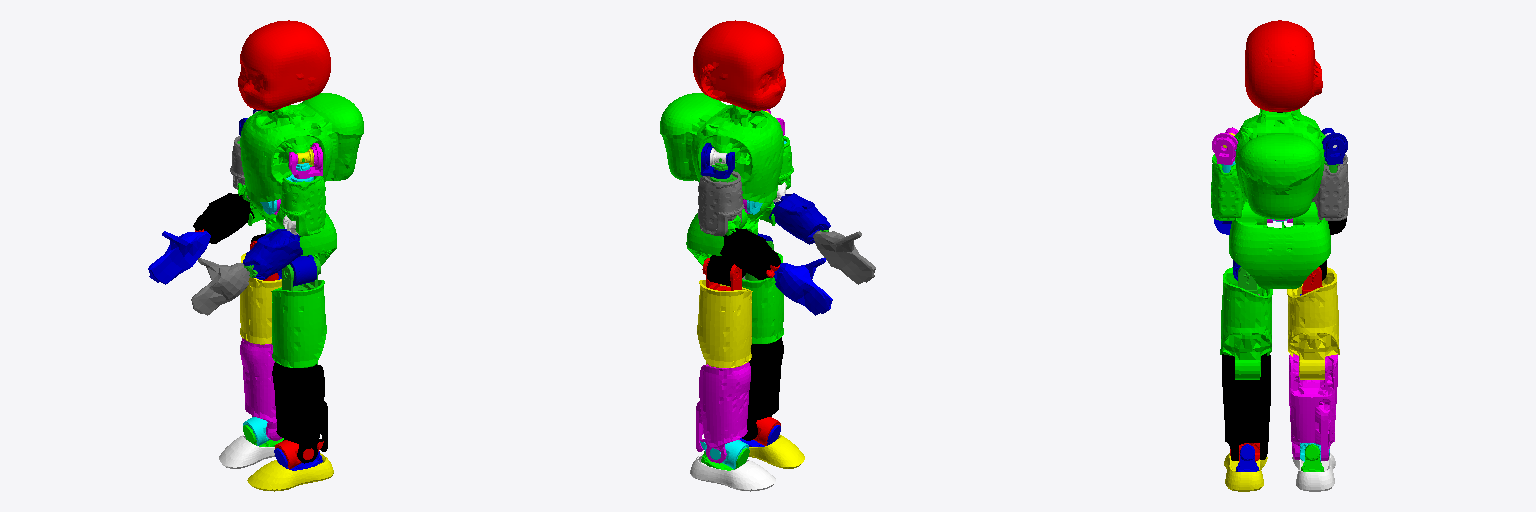
--- Facts derived from the render (not from the file) ---
Views: 3 orthographic renders of the robot side by side, from view 1: azimuth 30°, elevation 25°; view 2: azimuth 150°, elevation 25°; view 3: azimuth 270°, elevation 25°.
Robot: iCub — 139 links, 138 joints (32 revolute, 106 fixed); root link root_link; default pose: joints at zero except 2 at the middle of their limits (r_elbow = 1.06, l_elbow = 1.06).
Links seen in each view (by area): view 1: chest, head, l_lower_leg, l_upper_leg, r_lower_leg, l_upper_arm, r_upper_leg, l_hand, r_hand, l_forearm, r_forearm, l_foot (+5 smaller); view 2: chest, head, r_lower_leg, r_upper_leg, l_lower_leg, r_upper_arm, l_upper_leg, r_hand, r_forearm, l_hand, l_forearm, r_foot (+5 smaller); view 3: chest, root_link, head, r_upper_leg, l_upper_leg, l_lower_leg, r_lower_leg, r_upper_arm, l_upper_arm, r_foot, l_foot, l_shoulder_2 (+1 smaller).
Link boxes in pixels (left/top/right/bottom): chest: left=240, top=93, right=363, bottom=202; head: left=238, top=20, right=330, bottom=110; l_lower_leg: left=272, top=362, right=327, bottom=463; l_upper_leg: left=271, top=280, right=326, bottom=367; r_lower_leg: left=240, top=338, right=281, bottom=440; l_upper_arm: left=280, top=171, right=325, bottom=236; r_upper_leg: left=240, top=253, right=281, bottom=344; l_hand: left=191, top=258, right=252, bottom=315; r_hand: left=148, top=231, right=210, bottom=284; l_forearm: left=243, top=229, right=302, bottom=279; r_forearm: left=193, top=193, right=254, bottom=243; l_foot: left=247, top=453, right=333, bottom=491; chest: left=660, top=93, right=783, bottom=202; head: left=693, top=20, right=785, bottom=110; r_lower_leg: left=696, top=362, right=750, bottom=463; r_upper_leg: left=697, top=280, right=752, bottom=367; l_lower_leg: left=742, top=337, right=783, bottom=440; r_upper_arm: left=698, top=171, right=743, bottom=236; l_upper_leg: left=742, top=252, right=783, bottom=343; r_hand: left=774, top=258, right=832, bottom=315; r_forearm: left=720, top=228, right=780, bottom=279; l_hand: left=813, top=231, right=875, bottom=284; l_forearm: left=769, top=193, right=830, bottom=244; r_foot: left=690, top=453, right=775, bottom=491; chest: left=1234, top=109, right=1325, bottom=219; root_link: left=1229, top=202, right=1330, bottom=288; head: left=1245, top=20, right=1322, bottom=111; r_upper_leg: left=1287, top=267, right=1339, bottom=379; l_upper_leg: left=1220, top=267, right=1272, bottom=379; l_lower_leg: left=1222, top=353, right=1270, bottom=460; r_lower_leg: left=1289, top=354, right=1337, bottom=460; r_upper_arm: left=1312, top=154, right=1348, bottom=220; l_upper_arm: left=1211, top=154, right=1247, bottom=220; r_foot: left=1292, top=453, right=1335, bottom=491; l_foot: left=1224, top=453, right=1267, bottom=491; l_shoulder_2: left=1212, top=127, right=1238, bottom=164.
Size in the robot's own frame: 0.4797 by 0.2988 by 1.08 metres.
39 mesh visuals loaded from 39 distinct referenced files (39 binary STL).

The robot description file, URDF, robot "iCub":
<robot name="iCub">
  <link name="root_link">
    <inertial>
      <origin xyz="0.0256127 0.000177073 -0.0445339" rpy="1.57079632679 0 -1.57079632679"/>
      <mass value="5.12739"/>
      <inertia ixx="0.0145428" ixy="-3.37917e-05" ixz="-3.74897e-05" iyy="0.0206942" iyz="-0.00196027" izz="0.0252204"/>
    </inertial>
    <visual>
      <origin xyz="-0.0364 0 0.032" rpy="1.57079632679 0 -1.57079632679"/>
      <geometry>
        <mesh filename="meshes/simmechanics/2-5_plus/sim_sea_2-5_root_link_prt-binary.stl" scale="0.001 0.001 0.001"/>
      </geometry>
      <material name="green">
        <color rgba="0 1 0 1"/>
      </material>
    </visual>
    <collision>
      <origin xyz="-0.0364 0 0.032" rpy="1.57079632679 0 -1.57079632679"/>
      <geometry>
        <mesh filename="meshes/simmechanics/2-5_plus/sim_sea_2-5_root_link_prt-binary.stl" scale="0.001 0.001 0.001"/>
      </geometry>
    </collision>
  </link>
  <link name="root_link_imu_frame">
    <inertial>
      <origin rpy="0 0 0" xyz="0 0 0"/>
      <mass value="0"/>
      <inertia ixx="0.0" ixy="0.0" ixz="0.0" iyy="0.0" iyz="0.0" izz="0.0"/>
    </inertial>
  </link> <!-- in pybullet, the inertia need to be specified even for dummy links, otherwise it will put an identity inertia and a mass of 1 by default -->
  <joint name="root_link_imu_frame_fixed_joint" type="fixed">
    <origin xyz="0.085155 -0.011 -0.112309" rpy="-2.09439521059 0 -1.57079632679"/>
    <parent link="root_link"/>
    <child link="root_link_imu_frame"/>
    <dynamics damping="0.1"/>
  </joint>
  <link name="r_hip_1">
    <inertial>
      <origin xyz="-0.0005145 -0.0380753 -7.1e-05" rpy="1.57079632679 0 1.57079632679"/>
      <mass value="0.919978"/>
      <inertia ixx="0.000404268" ixy="-1.26852e-06" ixz="1.11055e-06" iyy="0.000574741" iyz="-7.69474e-07" izz="0.000580025"/>
    </inertial>
    <visual>
      <origin xyz="0.0428515000001 0.026 0.151913" rpy="1.57079632679 0 1.57079632679"/>
      <geometry>
        <mesh filename="meshes/simmechanics/2-5_plus/sim_sea_2-5_r_hip_1_prt-binary.stl" scale="0.001 0.001 0.001"/>
      </geometry>
      <material name="black">
        <color rgba="0 0 0 1"/>
      </material>
    </visual>
    <collision>
      <origin xyz="0.0428515000001 0.026 0.151913" rpy="1.57079632679 0 1.57079632679"/>
      <geometry>
        <mesh filename="meshes/simmechanics/2-5_plus/sim_sea_2-5_r_hip_1_prt-binary.stl" scale="0.001 0.001 0.001"/>
      </geometry>
    </collision>
  </link>
  <joint name="r_hip_pitch" type="revolute">
    <origin xyz="0.0064515 0.026 -0.119913" rpy="0 0 -3.14159265359"/>
    <axis xyz="-2.22044604925e-16 -1.0 0.0"/>
    <parent link="root_link"/>
    <child link="r_hip_1"/>
    <limit effort="55.5" lower="-0.785398163397" upper="2.33874119767" velocity="5.1"/>
    <dynamics damping="1.0" friction="0.0"/>
  </joint>
  <link name="r_hip_2">
    <inertial>
      <origin xyz="-0.0013754 3.49999999998e-06 -0.044282" rpy="1.57079632679 0 1.57079632679"/>
      <mass value="0.418361"/>
      <inertia ixx="0.000487866" ixy="-2.70231e-07" ixz="1.85338e-07" iyy="0.000286099" iyz="1.22793e-05" izz="0.000315174"/>
    </inertial>
    <visual>
      <origin xyz="0.0428514998094 0.0701 0.151913" rpy="1.57079632679 0 1.57079632679"/>
      <geometry>
        <mesh filename="meshes/simmechanics/2-5_plus/sim_sea_2-5_r_hip_2_prt-binary.stl" scale="0.001 0.001 0.001"/>
      </geometry>
      <material name="red">
        <color rgba="1 0 0 1"/>
      </material>
    </visual>
    <collision>
      <origin xyz="0.0428514998094 0.0701 0.151913" rpy="1.57079632679 0 1.57079632679"/>
      <geometry>
        <mesh filename="meshes/simmechanics/2-5_plus/sim_sea_2-5_r_hip_2_prt-binary.stl" scale="0.001 0.001 0.001"/>
      </geometry>
    </collision>
  </link>
  <joint name="r_hip_roll" type="revolute">
    <origin xyz="0 -0.0441 0" rpy="0 0 0"/>
    <axis xyz="-1.0 0.0 -2.22044604925e-16"/>
    <parent link="r_hip_1"/>
    <child link="r_hip_2"/>
    <limit effort="37.0" lower="-0.349065850399" upper="2.09439510239" velocity="7.64"/>
    <dynamics damping="1.0" friction="0.0"/>
  </joint>
  <link name="r_hip_3">
    <inertial>
      <origin xyz="-0.000123 -0.0002823 0.008718" rpy="-1.57079632679 0 -1.57079632679"/>
      <mass value="0.126212"/>
      <inertia ixx="0.01" ixy="2.67901e-07" ixz="-4.41463e-09" iyy="0.01" iyz="3.32338e-08" izz="0.01"/>
    </inertial>
    <visual>
      <origin xyz="0.0437089998094 -0.0701 -0.226213" rpy="-1.57079632679 0 -1.57079632679"/>
      <geometry>
        <mesh filename="meshes/simmechanics/2-5_plus/sim_sea_2-5_r_upper_thigh_prt-binary.stl" scale="0.001 0.001 0.001"/>
      </geometry>
      <material name="blue">
        <color rgba="0 0 1 1"/>
      </material>
    </visual>
    <collision>
      <origin xyz="0.0437089998094 -0.0701 -0.226213" rpy="-1.57079632679 0 -1.57079632679"/>
      <geometry>
        <mesh filename="meshes/simmechanics/2-5_plus/sim_sea_2-5_r_upper_thigh_prt-binary.stl" scale="0.001 0.001 0.001"/>
      </geometry>
    </collision>
  </link>
  <joint name="r_leg_ft_sensor" type="fixed">
    <origin xyz="-0.0008575 0 -0.0743" rpy="3.14159265359 0 0"/>
    <parent link="r_hip_2"/>
    <child link="r_hip_3"/>
    <dynamics damping="0.1"/>
  </joint>
  <link name="r_upper_leg">
    <inertial>
      <origin xyz="0.0033999 -2.91e-05 -0.078954" rpy="1.57079632679 0 1.57079632679"/>
      <mass value="1.8035"/>
      <inertia ixx="0.00647751422999" ixy="0.000129579429588" ixz="5.48205094739e-06" iyy="0.0014593786411" iyz="-0.000136613086875" izz="0.00646720823813"/>
    </inertial>
    <visual>
      <origin xyz="0.0437089998094 0.0701 0.240813" rpy="1.57079632679 0 1.57079632679"/>
      <geometry>
        <mesh filename="meshes/simmechanics/2-5_plus/sim_sea_2-5_r_thigh_prt-binary.stl" scale="0.001 0.001 0.001"/>
      </geometry>
      <material name="yellow">
        <color rgba="1 1 0 1"/>
      </material>
    </visual>
    <collision>
      <origin xyz="0.0437089998094 0.0701 0.240813" rpy="1.57079632679 0 1.57079632679"/>
      <geometry>
        <mesh filename="meshes/simmechanics/2-5_plus/sim_sea_2-5_r_thigh_prt-binary.stl" scale="0.001 0.001 0.001"/>
      </geometry>
    </collision>
  </link>
  <joint name="r_hip_yaw" type="revolute">
    <origin xyz="0 0 0.0144" rpy="-3.14159265359 0 0"/>
    <axis xyz="0.0 -2.22044604925e-16 -1.0"/>
    <parent link="r_hip_3"/>
    <child link="r_upper_leg"/>
    <limit effort="37.0" lower="-1.3962634016" upper="1.3962634016" velocity="7.64"/>
    <dynamics damping="1.0" friction="0.0"/>
  </joint>
  <link name="r_upper_leg_back_contact">
    <inertial>
      <origin rpy="0 0 0" xyz="0 0 0"/>
      <mass value="0"/>
      <inertia ixx="0.0" ixy="0.0" ixz="0.0" iyy="0.0" iyz="0.0" izz="0.0"/>
    </inertial>
  </link> <!-- in pybullet, the inertia need to be specified even for dummy links, otherwise it will put an identity inertia and a mass of 1 by default -->
  <joint name="r_upper_leg_back_contact_fixed_joint" type="fixed">
    <origin xyz="-0.0511999 0 0.0146" rpy="0 1.57079632679 0"/>
    <parent link="r_upper_leg"/>
    <child link="r_upper_leg_back_contact"/>
    <dynamics damping="0.1"/>
  </joint>
  <link name="r_upper_leg_dh_frame">
    <inertial>
      <origin rpy="0 0 0" xyz="0 0 0"/>
      <mass value="0"/>
      <inertia ixx="0.0" ixy="0.0" ixz="0.0" iyy="0.0" iyz="0.0" izz="0.0"/>
    </inertial>
  </link> <!-- in pybullet, the inertia need to be specified even for dummy links, otherwise it will put an identity inertia and a mass of 1 by default -->
  <joint name="r_upper_leg_dh_frame_fixed_joint" type="fixed">
    <origin xyz="0 0 -0.145825" rpy="1.57079632679 0 0"/>
    <parent link="r_upper_leg"/>
    <child link="r_upper_leg_dh_frame"/>
    <dynamics damping="0.1"/>
  </joint>
  <link name="r_lower_leg">
    <inertial>
      <origin xyz="0.0012363 -0.0035131 -0.088794" rpy="1.57079632679 0 1.57079632679"/>
      <mass value="1.472"/>
      <inertia ixx="0.00423993167478" ixy="0.000228814548854" ixz="-5.55646459453e-05" iyy="0.00152095043447" iyz="-0.000264132979243" izz="0.00457358584206"/>
    </inertial>
    <visual>
      <origin xyz="0.0437089998094 0.0701000001907 0.386638" rpy="1.57079632679 0 1.57079632679"/>
      <geometry>
        <mesh filename="meshes/simmechanics/2-5_plus/sim_sea_2-5_r_shank_prt-binary.stl" scale="0.001 0.001 0.001"/>
      </geometry>
      <material name="pink">
        <color rgba="1 0 1 1"/>
      </material>
    </visual>
    <collision>
      <origin xyz="0.0437089998094 0.0701000001907 0.386638" rpy="1.57079632679 0 1.57079632679"/>
      <geometry>
        <mesh filename="meshes/simmechanics/2-5_plus/sim_sea_2-5_r_shank_prt-binary.stl" scale="0.001 0.001 0.001"/>
      </geometry>
    </collision>
  </link>
  <joint name="r_knee" type="revolute">
    <origin xyz="0 0 -0.145825" rpy="0 0 0"/>
    <axis xyz="-2.22044604925e-16 -1.0 0.0"/>
    <parent link="r_upper_leg"/>
    <child link="r_lower_leg"/>
    <limit effort="37.0" lower="-2.16420827247" upper="0.0698131700798" velocity="7.64"/>
    <dynamics damping="1.0" friction="0.0"/>
  </joint>
  <link name="r_lower_leg_skin_0">
    <inertial>
      <origin rpy="0 0 0" xyz="0 0 0"/>
      <mass value="0"/>
      <inertia ixx="0.0" ixy="0.0" ixz="0.0" iyy="0.0" iyz="0.0" izz="0.0"/>
    </inertial>
  </link> <!-- in pybullet, the inertia need to be specified even for dummy links, otherwise it will put an identity inertia and a mass of 1 by default -->
  <joint name="r_lower_leg_skin_0_fixed_joint" type="fixed">
    <origin xyz="0.0544117 -0.031214 -0.002634" rpy="2.09173809157e-06 -1.41530676247 2.48648458622"/>
    <parent link="r_lower_leg"/>
    <child link="r_lower_leg_skin_0"/>
    <dynamics damping="0.1"/>
  </joint>
  <link name="r_lower_leg_skin_3">
    <inertial>
      <origin rpy="0 0 0" xyz="0 0 0"/>
      <mass value="0"/>
      <inertia ixx="0.0" ixy="0.0" ixz="0.0" iyy="0.0" iyz="0.0" izz="0.0"/>
    </inertial>
  </link> <!-- in pybullet, the inertia need to be specified even for dummy links, otherwise it will put an identity inertia and a mass of 1 by default -->
  <joint name="r_lower_leg_skin_3_fixed_joint" type="fixed">
    <origin xyz="0.05157878 0.0304205 -0.002843" rpy="0 -1.42951054083 -2.30391484186"/>
    <parent link="r_lower_leg"/>
    <child link="r_lower_leg_skin_3"/>
    <dynamics damping="0.1"/>
  </joint>
  <link name="r_lower_leg_skin_4">
    <inertial>
      <origin rpy="0 0 0" xyz="0 0 0"/>
      <mass value="0"/>
      <inertia ixx="0.0" ixy="0.0" ixz="0.0" iyy="0.0" iyz="0.0" izz="0.0"/>
    </inertial>
  </link> <!-- in pybullet, the inertia need to be specified even for dummy links, otherwise it will put an identity inertia and a mass of 1 by default -->
  <joint name="r_lower_leg_skin_4_fixed_joint" type="fixed">
    <origin xyz="0.0583103 0.0167836 0.007272" rpy="-2.98636361519e-07 -1.25636748876 -2.75892380087"/>
    <parent link="r_lower_leg"/>
    <child link="r_lower_leg_skin_4"/>
    <dynamics damping="0.1"/>
  </joint>
  <link name="r_lower_leg_skin_5">
    <inertial>
      <origin rpy="0 0 0" xyz="0 0 0"/>
      <mass value="0"/>
      <inertia ixx="0.0" ixy="0.0" ixz="0.0" iyy="0.0" iyz="0.0" izz="0.0"/>
    </inertial>
  </link> <!-- in pybullet, the inertia need to be specified even for dummy links, otherwise it will put an identity inertia and a mass of 1 by default -->
  <joint name="r_lower_leg_skin_5_fixed_joint" type="fixed">
    <origin xyz="0.0636503 0.0003094 -0.001972" rpy="0 -1.38652215068 -3.14147169807"/>
    <parent link="r_lower_leg"/>
    <child link="r_lower_leg_skin_5"/>
    <dynamics damping="0.1"/>
  </joint>
  <link name="r_lower_leg_skin_6">
    <inertial>
      <origin rpy="0 0 0" xyz="0 0 0"/>
      <mass value="0"/>
      <inertia ixx="0.0" ixy="0.0" ixz="0.0" iyy="0.0" iyz="0.0" izz="0.0"/>
    </inertial>
  </link> <!-- in pybullet, the inertia need to be specified even for dummy links, otherwise it will put an identity inertia and a mass of 1 by default -->
  <joint name="r_lower_leg_skin_6_fixed_joint" type="fixed">
    <origin xyz="0.05208552 0.0304434 -0.022149" rpy="-3.14158927953 -1.46785123411 0.837492889077"/>
    <parent link="r_lower_leg"/>
    <child link="r_lower_leg_skin_6"/>
    <dynamics damping="0.1"/>
  </joint>
  <link name="r_lower_leg_skin_9">
    <inertial>
      <origin rpy="0 0 0" xyz="0 0 0"/>
      <mass value="0"/>
      <inertia ixx="0.0" ixy="0.0" ixz="0.0" iyy="0.0" iyz="0.0" izz="0.0"/>
    </inertial>
  </link> <!-- in pybullet, the inertia need to be specified even for dummy links, otherwise it will put an identity inertia and a mass of 1 by default -->
  <joint name="r_lower_leg_skin_9_fixed_joint" type="fixed">
    <origin xyz="0.0598214 0.0167973 -0.030962" rpy="-3.14159202356 -1.34224755325 0.379294477718"/>
    <parent link="r_lower_leg"/>
    <child link="r_lower_leg_skin_9"/>
    <dynamics damping="0.1"/>
  </joint>
  <link name="r_lower_leg_skin_10">
    <inertial>
      <origin rpy="0 0 0" xyz="0 0 0"/>
      <mass value="0"/>
      <inertia ixx="0.0" ixy="0.0" ixz="0.0" iyy="0.0" iyz="0.0" izz="0.0"/>
    </inertial>
  </link> <!-- in pybullet, the inertia need to be specified even for dummy links, otherwise it will put an identity inertia and a mass of 1 by default -->
  <joint name="r_lower_leg_skin_10_fixed_joint" type="fixed">
    <origin xyz="0.0644607 0.0003424 -0.021205" rpy="3.14159265355 -1.47095803541 0.000430021675261"/>
    <parent link="r_lower_leg"/>
    <child link="r_lower_leg_skin_10"/>
    <dynamics damping="0.1"/>
  </joint>
  <link name="r_lower_leg_skin_11">
    <inertial>
      <origin rpy="0 0 0" xyz="0 0 0"/>
      <mass value="0"/>
      <inertia ixx="0.0" ixy="0.0" ixz="0.0" iyy="0.0" iyz="0.0" izz="0.0"/>
    </inertial>
  </link> <!-- in pybullet, the inertia need to be specified even for dummy links, otherwise it will put an identity inertia and a mass of 1 by default -->
  <joint name="r_lower_leg_skin_11_fixed_joint" type="fixed">
    <origin xyz="0.0607108 -0.0160916 -0.030885" rpy="-3.14159218252 -1.3281180406 -0.27213836788"/>
    <parent link="r_lower_leg"/>
    <child link="r_lower_leg_skin_11"/>
    <dynamics damping="0.1"/>
  </joint>
  <link name="r_lower_leg_skin_14">
    <inertial>
      <origin rpy="0 0 0" xyz="0 0 0"/>
      <mass value="0"/>
      <inertia ixx="0.0" ixy="0.0" ixz="0.0" iyy="0.0" iyz="0.0" izz="0.0"/>
    </inertial>
  </link> <!-- in pybullet, the inertia need to be specified even for dummy links, otherwise it will put an identity inertia and a mass of 1 by default -->
  <joint name="r_lower_leg_skin_14_fixed_joint" type="fixed">
    <origin xyz="0.0550477 -0.031176 -0.0219" rpy="-3.14159181885 -1.46502735635 -0.654033407167"/>
    <parent link="r_lower_leg"/>
    <child link="r_lower_leg_skin_14"/>
    <dynamics damping="0.1"/>
  </joint>
  <link name="r_lower_leg_skin_15">
    <inertial>
      <origin rpy="0 0 0" xyz="0 0 0"/>
      <mass value="0"/>
      <inertia ixx="0.0" ixy="0.0" ixz="0.0" iyy="0.0" iyz="0.0" izz="0.0"/>
    </inertial>
  </link> <!-- in pybullet, the inertia need to be specified even for dummy links, otherwise it will put an identity inertia and a mass of 1 by default -->
  <joint name="r_lower_leg_skin_15_fixed_joint" type="fixed">
    <origin xyz="0.0591708 -0.0161788 0.007243" rpy="4.27484256729e-07 -1.25203633076 2.86798859471"/>
    <parent link="r_lower_leg"/>
    <child link="r_lower_leg_skin_15"/>
    <dynamics damping="0.1"/>
  </joint>
  <link name="r_lower_leg_skin_16">
    <inertial>
      <origin rpy="0 0 0" xyz="0 0 0"/>
      <mass value="0"/>
      <inertia ixx="0.0" ixy="0.0" ixz="0.0" iyy="0.0" iyz="0.0" izz="0.0"/>
    </inertial>
  </link> <!-- in pybullet, the inertia need to be specified even for dummy links, otherwise it will put an identity inertia and a mass of 1 by default -->
  <joint name="r_lower_leg_skin_16_fixed_joint" type="fixed">
    <origin xyz="0.0272875 -0.050287 -0.004549" rpy="1.33075915123e-05 -1.53260853515 1.96280242835"/>
    <parent link="r_lower_leg"/>
    <child link="r_lower_leg_skin_16"/>
    <dynamics damping="0.1"/>
  </joint>
  <link name="r_lower_leg_skin_17">
    <inertial>
      <origin rpy="0 0 0" xyz="0 0 0"/>
      <mass value="0"/>
      <inertia ixx="0.0" ixy="0.0" ixz="0.0" iyy="0.0" iyz="0.0" izz="0.0"/>
    </inertial>
  </link> <!-- in pybullet, the inertia need to be specified even for dummy links, otherwise it will put an identity inertia and a mass of 1 by default -->
  <joint name="r_lower_leg_skin_17_fixed_joint" type="fixed">
    <origin xyz="0.027875 -0.050312 -0.023882" rpy="-3.1415645262 -1.56366240237 -1.18022508756"/>
    <parent link="r_lower_leg"/>
    <child link="r_lower_leg_skin_17"/>
    <dynamics damping="0.1"/>
  </joint>
  <link name="r_lower_leg_skin_19">
    <inertial>
      <origin rpy="0 0 0" xyz="0 0 0"/>
      <mass value="0"/>
      <inertia ixx="0.0" ixy="0.0" ixz="0.0" iyy="0.0" iyz="0.0" izz="0.0"/>
    </inertial>
  </link> <!-- in pybullet, the inertia need to be specified even for dummy links, otherwise it will put an identity inertia and a mass of 1 by default -->
  <joint name="r_lower_leg_skin_19_fixed_joint" type="fixed">
    <origin xyz="0.0357534 0.0410628 0.006065" rpy="-8.90877717426e-07 -1.43498696978 -2.15863618017"/>
    <parent link="r_lower_leg"/>
    <child link="r_lower_leg_skin_19"/>
    <dynamics damping="0.1"/>
  </joint>
  <link name="r_lower_leg_skin_20">
    <inertial>
      <origin rpy="0 0 0" xyz="0 0 0"/>
      <mass value="0"/>
      <inertia ixx="0.0" ixy="0.0" ixz="0.0" iyy="0.0" iyz="0.0" izz="0.0"/>
    </inertial>
  </link> <!-- in pybullet, the inertia need to be specified even for dummy links, otherwise it will put an identity inertia and a mass of 1 by default -->
  <joint name="r_lower_leg_skin_20_fixed_joint" type="fixed">
    <origin xyz="0.0234419 0.0479908 -0.004952" rpy="-3.20556549428e-06 -1.50015513031 -1.86755092413"/>
    <parent link="r_lower_leg"/>
    <child link="r_lower_leg_skin_20"/>
    <dynamics damping="0.1"/>
  </joint>
  <link name="r_lower_leg_skin_21">
    <inertial>
      <origin rpy="0 0 0" xyz="0 0 0"/>
      <mass value="0"/>
      <inertia ixx="0.0" ixy="0.0" ixz="0.0" iyy="0.0" iyz="0.0" izz="0.0"/>
    </inertial>
  </link> <!-- in pybullet, the inertia need to be specified even for dummy links, otherwise it will put an identity inertia and a mass of 1 by default -->
  <joint name="r_lower_leg_skin_21_fixed_joint" type="fixed">
    <origin xyz="0.0242704 0.0485378 -0.024277" rpy="2.29671149558e-05 -1.55545513881 -1.87411972316"/>
    <parent link="r_lower_leg"/>
    <child link="r_lower_leg_skin_21"/>
    <dynamics damping="0.1"/>
  </joint>
  <link name="r_lower_leg_skin_28">
    <inertial>
      <origin rpy="0 0 0" xyz="0 0 0"/>
      <mass value="0"/>
      <inertia ixx="0.0" ixy="0.0" ixz="0.0" iyy="0.0" iyz="0.0" izz="0.0"/>
    </inertial>
  </link> <!-- in pybullet, the inertia need to be specified even for dummy links, otherwise it will put an identity inertia and a mass of 1 by default -->
  <joint name="r_lower_leg_skin_28_fixed_joint" type="fixed">
    <origin xyz="0.04087215 -0.04244 -0.032756" rpy="3.14158088865 -1.52252462169 -0.929681029763"/>
    <parent link="r_lower_leg"/>
    <child link="r_lower_leg_skin_28"/>
    <dynamics damping="0.1"/>
  </joint>
  <link name="r_lower_leg_skin_29">
    <inertial>
      <origin rpy="0 0 0" xyz="0 0 0"/>
      <mass value="0"/>
      <inertia ixx="0.0" ixy="0.0" ixz="0.0" iyy="0.0" iyz="0.0" izz="0.0"/>
    </inertial>
  </link> <!-- in pybullet, the inertia need to be specified even for dummy links, otherwise it will put an identity inertia and a mass of 1 by default -->
  <joint name="r_lower_leg_skin_29_fixed_joint" type="fixed">
    <origin xyz="0.03846637 -0.043516 -0.05242" rpy="3.14158017044 -1.53429841563 -0.915436346631"/>
    <parent link="r_lower_leg"/>
    <child link="r_lower_leg_skin_29"/>
    <dynamics damping="0.1"/>
  </joint>
  <link name="r_lower_leg_skin_31">
    <inertial>
      <origin rpy="0 0 0" xyz="0 0 0"/>
      <mass value="0"/>
      <inertia ixx="0.0" ixy="0.0" ixz="0.0" iyy="0.0" iyz="0.0" izz="0.0"/>
    </inertial>
  </link> <!-- in pybullet, the inertia need to be specified even for dummy links, otherwise it will put an identity inertia and a mass of 1 by default -->
  <joint name="r_lower_leg_skin_31_fixed_joint" type="fixed">
    <origin xyz="0.03914638 -0.042271 0.006327" rpy="-6.58381747139e-07 -1.4186494462 2.20853032986"/>
    <parent link="r_lower_leg"/>
    <child link="r_lower_leg_skin_31"/>
    <dynamics damping="0.1"/>
  </joint>
  <link name="r_lower_leg_skin_32">
    <inertial>
      <origin rpy="0 0 0" xyz="0 0 0"/>
      <mass value="0"/>
      <inertia ixx="0.0" ixy="0.0" ixz="0.0" iyy="0.0" iyz="0.0" izz="0.0"/>
    </inertial>
  </link> <!-- in pybullet, the inertia need to be specified even for dummy links, otherwise it will put an identity inertia and a mass of 1 by default -->
  <joint name="r_lower_leg_skin_32_fixed_joint" type="fixed">
    <origin xyz="0.04598301 0.0325847 -0.080733" rpy="-3.14159014988 -1.52238289798 0.645940380887"/>
    <parent link="r_lower_leg"/>
    <child link="r_lower_leg_skin_32"/>
    <dynamics damping="0.1"/>
  </joint>
  <link name="r_lower_leg_skin_35">
    <inertial>
      <origin rpy="0 0 0" xyz="0 0 0"/>
      <mass value="0"/>
      <inertia ixx="0.0" ixy="0.0" ixz="0.0" iyy="0.0" iyz="0.0" izz="0.0"/>
    </inertial>
  </link> <!-- in pybullet, the inertia need to be specified even for dummy links, otherwise it will put an identity inertia and a mass of 1 by default -->
  <joint name="r_lower_leg_skin_35_fixed_joint" type="fixed">
    <origin xyz="0.04774866 -0.031232 -0.080113" rpy="-3.14158668275 -1.51758467332 -0.541532486468"/>
    <parent link="r_lower_leg"/>
    <child link="r_lower_leg_skin_35"/>
    <dynamics damping="0.1"/>
  </joint>
  <link name="r_lower_leg_skin_36">
    <inertial>
      <origin rpy="0 0 0" xyz="0 0 0"/>
      <mass value="0"/>
      <inertia ixx="0.0" ixy="0.0" ixz="0.0" iyy="0.0" iyz="0.0" izz="0.0"/>
    </inertial>
  </link> <!-- in pybullet, the inertia need to be specified even for dummy links, otherwise it will put an identity inertia and a mass of 1 by default -->
  <joint name="r_lower_leg_skin_36_fixed_joint" type="fixed">
    <origin xyz="0.05322409 -0.0156018 -0.088362" rpy="-3.14159034144 -1.51587265281 -0.20740733566"/>
    <parent link="r_lower_leg"/>
    <child link="r_lower_leg_skin_36"/>
    <dynamics damping="0.1"/>
  </joint>
  <link name="r_lower_leg_skin_37">
    <inertial>
      <origin rpy="0 0 0" xyz="0 0 0"/>
      <mass value="0"/>
      <inertia ixx="0.0" ixy="0.0" ixz="0.0" iyy="0.0" iyz="0.0" izz="0.0"/>
    </inertial>
  </link> <!-- in pybullet, the inertia need to be specified even for dummy links, otherwise it will put an identity inertia and a mass of 1 by default -->
  <joint name="r_lower_leg_skin_37_fixed_joint" type="fixed">
    <origin xyz="0.0552572 0.0009644 -0.078318" rpy="-3.14158180452 -1.52318336898 0.00752450583063"/>
    <parent link="r_lower_leg"/>
    <child link="r_lower_leg_skin_37"/>
    <dynamics damping="0.1"/>
  </joint>
  <link name="r_lower_leg_skin_38">
    <inertial>
      <origin rpy="0 0 0" xyz="0 0 0"/>
      <mass value="0"/>
      <inertia ixx="0.0" ixy="0.0" ixz="0.0" iyy="0.0" iyz="0.0" izz="0.0"/>
    </inertial>
  </link> <!-- in pybullet, the inertia need to be specified even for dummy links, otherwise it will put an identity inertia and a mass of 1 by default -->
  <joint name="r_lower_leg_skin_38_fixed_joint" type="fixed">
    <origin xyz="0.04880467 -0.031263 -0.060757" rpy="3.14158665199 -1.5157299554 -0.54215359959"/>
    <parent link="r_lower_leg"/>
    <child link="r_lower_leg_skin_38"/>
    <dynamics damping="0.1"/>
  </joint>
  <link name="r_lower_leg_skin_41">
    <inertial>
      <origin rpy="0 0 0" xyz="0 0 0"/>
      <mass value="0"/>
      <inertia ixx="0.0" ixy="0.0" ixz="0.0" iyy="0.0" iyz="0.0" izz="0.0"/>
    </inertial>
  </link> <!-- in pybullet, the inertia need to be specified even for dummy links, otherwise it will put an identity inertia and a mass of 1 by default -->
  <joint name="r_lower_leg_skin_41_fixed_joint" type="fixed">
    <origin xyz="0.0566009 -0.0159129 -0.049854" rpy="-3.14159198825 -1.40681343597 -0.248233089413"/>
    <parent link="r_lower_leg"/>
    <child link="r_lower_leg_skin_41"/>
    <dynamics damping="0.1"/>
  </joint>
  <link name="r_lower_leg_skin_42">
    <inertial>
      <origin rpy="0 0 0" xyz="0 0 0"/>
      <mass value="0"/>
      <inertia ixx="0.0" ixy="0.0" ixz="0.0" iyy="0.0" iyz="0.0" izz="0.0"/>
    </inertial>
  </link> <!-- in pybullet, the inertia need to be specified even for dummy links, otherwise it will put an identity inertia and a mass of 1 by default -->
  <joint name="r_lower_leg_skin_42_fixed_joint" type="fixed">
    <origin xyz="0.0570106 0.0007962 -0.05908" rpy="3.14158970239 -1.43524750416 0.00687943651504"/>
    <parent link="r_lower_leg"/>
    <child link="r_lower_leg_skin_42"/>
    <dynamics damping="0.1"/>
  </joint>
  <link name="r_lower_leg_skin_43">
    <inertial>
      <origin rpy="0 0 0" xyz="0 0 0"/>
      <mass value="0"/>
      <inertia ixx="0.0" ixy="0.0" ixz="0.0" iyy="0.0" iyz="0.0" izz="0.0"/>
    </inertial>
  </link> <!-- in pybullet, the inertia need to be specified even for dummy links, otherwise it will put an identity inertia and a mass of 1 by default -->
  <joint name="r_lower_leg_skin_43_fixed_joint" type="fixed">
    <origin xyz="0.04712542 0.0323653 -0.061362" rpy="-3.14159136621 -1.53843038237 0.624217523667"/>
    <parent link="r_lower_leg"/>
    <child link="r_lower_leg_skin_43"/>
    <dynamics damping="0.1"/>
  </joint>
  <link name="r_lower_leg_skin_46">
    <inertial>
      <origin rpy="0 0 0" xyz="0 0 0"/>
      <mass value="0"/>
      <inertia ixx="0.0" ixy="0.0" ixz="0.0" iyy="0.0" iyz="0.0" izz="0.0"/>
    </inertial>
  </link> <!-- in pybullet, the inertia need to be specified even for dummy links, otherwise it will put an identity inertia and a mass of 1 by default -->
  <joint name="r_lower_leg_skin_46_fixed_joint" type="fixed">
    <origin xyz="0.0558156 0.0172164 -0.05018" rpy="-3.14158987809 -1.42759881603 0.325607710876"/>
    <parent link="r_lower_leg"/>
    <child link="r_lower_leg_skin_46"/>
    <dynamics damping="0.1"/>
  </joint>
  <link name="r_lower_leg_skin_47">
    <inertial>
      <origin rpy="0 0 0" xyz="0 0 0"/>
      <mass value="0"/>
      <inertia ixx="0.0" ixy="0.0" ixz="0.0" iyy="0.0" iyz="0.0" izz="0.0"/>
    </inertial>
  </link> <!-- in pybullet, the inertia need to be specified even for dummy links, otherwise it will put an identity inertia and a mass of 1 by default -->
  <joint name="r_lower_leg_skin_47_fixed_joint" type="fixed">
    <origin xyz="0.05264163 0.0176389 -0.08886" rpy="3.14158963519 -1.51690559406 0.262640425058"/>
    <parent link="r_lower_leg"/>
    <child link="r_lower_leg_skin_47"/>
    <dynamics damping="0.1"/>
  </joint>
  <link name="r_lower_leg_skin_49">
    <inertial>
      <origin rpy="0 0 0" xyz="0 0 0"/>
      <mass value="0"/>
      <inertia ixx="0.0" ixy="0.0" ixz="0.0" iyy="0.0" iyz="0.0" izz="0.0"/>
    </inertial>
  </link> <!-- in pybullet, the inertia need to be specified even for dummy links, otherwise it will put an identity inertia and a mass of 1 by default -->
  <joint name="r_lower_leg_skin_49_fixed_joint" type="fixed">
    <origin xyz="0.04113137 0.0324385 -0.138859" rpy="-3.14158934751 -1.48996135695 0.729763592113"/>
    <parent link="r_lower_leg"/>
    <child link="r_lower_leg_skin_49"/>
    <dynamics damping="0.1"/>
  </joint>
  <link name="r_lower_leg_skin_50">
    <inertial>
      <origin rpy="0 0 0" xyz="0 0 0"/>
      <mass value="0"/>
      <inertia ixx="0.0" ixy="0.0" ixz="0.0" iyy="0.0" iyz="0.0" izz="0.0"/>
    </inertial>
  </link> <!-- in pybullet, the inertia need to be specified even for dummy links, otherwise it will put an identity inertia and a mass of 1 by default -->
  <joint name="r_lower_leg_skin_50_fixed_joint" type="fixed">
    <origin xyz="0.043016947 0.0325273 -0.119469" rpy="3.14159069596 -1.49900732636 0.695784020081"/>
    <parent link="r_lower_leg"/>
    <child link="r_lower_leg_skin_50"/>
    <dynamics damping="0.1"/>
  </joint>
  <link name="r_lower_leg_skin_51">
    <inertial>
      <origin rpy="0 0 0" xyz="0 0 0"/>
      <mass value="0"/>
      <inertia ixx="0.0" ixy="0.0" ixz="0.0" iyy="0.0" iyz="0.0" izz="0.0"/>
    </inertial>
  </link> <!-- in pybullet, the inertia need to be specified even for dummy links, otherwise it will put an identity inertia and a mass of 1 by default -->
  <joint name="r_lower_leg_skin_51_fixed_joint" type="fixed">
    <origin xyz="0.05141583 0.017759 -0.108206" rpy="-3.14158890179 -1.50628475717 0.272079935713"/>
    <parent link="r_lower_leg"/>
    <child link="r_lower_leg_skin_51"/>
    <dynamics damping="0.1"/>
  </joint>
  <link name="r_lower_leg_skin_52">
    <inertial>
      <origin rpy="0 0 0" xyz="0 0 0"/>
      <mass value="0"/>
      <inertia ixx="0.0" ixy="0.0" ixz="0.0" iyy="0.0" iyz="0.0" izz="0.0"/>
    </inertial>
  </link> <!-- in pybullet, the inertia need to be specified even for dummy links, otherwise it will put an identity inertia and a mass of 1 by default -->
  <joint name="r_lower_leg_skin_52_fixed_joint" type="fixed">
    <origin xyz="0.05299832 0.0012664 -0.116895" rpy="-3.14159164042 -1.50318674421 0.0108717260994"/>
    <parent link="r_lower_leg"/>
    <child link="r_lower_leg_skin_52"/>
    <dynamics damping="0.1"/>
  </joint>
  <link name="r_lower_leg_skin_53">
    <inertial>
      <origin rpy="0 0 0" xyz="0 0 0"/>
      <mass value="0"/>
      <inertia ixx="0.0" ixy="0.0" ixz="0.0" iyy="0.0" iyz="0.0" izz="0.0"/>
    </inertial>
  </link> <!-- in pybullet, the inertia need to be specified even for dummy links, otherwise it will put an identity inertia and a mass of 1 by default -->
  <joint name="r_lower_leg_skin_53_fixed_joint" type="fixed">
    <origin xyz="0.05207312 -0.0154339 -0.107654" rpy="3.14159063987 -1.50595307447 -0.211407322892"/>
    <parent link="r_lower_leg"/>
    <child link="r_lower_leg_skin_53"/>
    <dynamics damping="0.1"/>
  </joint>
  <link name="r_lower_leg_skin_54">
    <inertial>
      <origin rpy="0 0 0" xyz="0 0 0"/>
      <mass value="0"/>
      <inertia ixx="0.0" ixy="0.0" ixz="0.0" iyy="0.0" iyz="0.0" izz="0.0"/>
    </inertial>
  </link> <!-- in pybullet, the inertia need to be specified even for dummy links, otherwise it will put an identity inertia and a mass of 1 by default -->
  <joint name="r_lower_leg_skin_54_fixed_joint" type="fixed">
    <origin xyz="0.04512708 -0.030749 -0.118787" rpy="3.14158825193 -1.49745145571 -0.575115374473"/>
    <parent link="r_lower_leg"/>
    <child link="r_lower_leg_skin_54"/>
    <dynamics damping="0.1"/>
  </joint>
  <link name="r_lower_leg_skin_55">
    <inertial>
      <origin rpy="0 0 0" xyz="0 0 0"/>
      <mass value="0"/>
      <inertia ixx="0.0" ixy="0.0" ixz="0.0" iyy="0.0" iyz="0.0" izz="0.0"/>
    </inertial>
  </link> <!-- in pybullet, the inertia need to be specified even for dummy links, otherwise it will put an identity inertia and a mass of 1 by default -->
  <joint name="r_lower_leg_skin_55_fixed_joint" type="fixed">
    <origin xyz="0.043502663 -0.030489 -0.138143" rpy="3.14158906486 -1.48995787038 -0.597219943789"/>
    <parent link="r_lower_leg"/>
    <child link="r_lower_leg_skin_55"/>
    <dynamics damping="0.1"/>
  </joint>
  <link name="r_lower_leg_skin_56">
    <inertial>
      <origin rpy="0 0 0" xyz="0 0 0"/>
      <mass value="0"/>
      <inertia ixx="0.0" ixy="0.0" ixz="0.0" iyy="0.0" iyz="0.0" izz="0.0"/>
    </inertial>
  </link> <!-- in pybullet, the inertia need to be specified even for dummy links, otherwise it will put an identity inertia and a mass of 1 by default -->
  <joint name="r_lower_leg_skin_56_fixed_joint" type="fixed">
    <origin xyz="0.04926839 -0.015121 -0.146218" rpy="-3.14158920404 -1.49124819828 -0.2234844764"/>
    <parent link="r_lower_leg"/>
    <child link="r_lower_leg_skin_56"/>
    <dynamics damping="0.1"/>
  </joint>
  <link name="r_lower_leg_skin_60">
    <inertial>
      <origin rpy="0 0 0" xyz="0 0 0"/>
      <mass value="0"/>
      <inertia ixx="0.0" ixy="0.0" ixz="0.0" iyy="0.0" iyz="0.0" izz="0.0"/>
    </inertial>
  </link> <!-- in pybullet, the inertia need to be specified even for dummy links, otherwise it will put an identity inertia and a mass of 1 by default -->
  <joint name="r_lower_leg_skin_60_fixed_joint" type="fixed">
    <origin xyz="0.04836967 0.018056 -0.146938" rpy="-3.14159173337 -1.48985968527 0.302951871954"/>
    <parent link="r_lower_leg"/>
    <child link="r_lower_leg_skin_60"/>
    <dynamics damping="0.1"/>
  </joint>
  <link name="r_lower_leg_skin_61">
    <inertial>
      <origin rpy="0 0 0" xyz="0 0 0"/>
      <mass value="0"/>
      <inertia ixx="0.0" ixy="0.0" ixz="0.0" iyy="0.0" iyz="0.0" izz="0.0"/>
    </inertial>
  </link> <!-- in pybullet, the inertia need to be specified even for dummy links, otherwise it will put an identity inertia and a mass of 1 by default -->
  <joint name="r_lower_leg_skin_61_fixed_joint" type="fixed">
    <origin xyz="0.05161952 0.0014266 -0.136169" rpy="-3.14159100925 -1.49602097086 0.0132014275205"/>
    <parent link="r_lower_leg"/>
    <child link="r_lower_leg_skin_61"/>
    <dynamics damping="0.1"/>
  </joint>
  <link name="r_ankle_1">
    <inertial>
      <origin xyz="0.015143405474 -0.0008685 4.28590827205e-05" rpy="1.30899714732 0 1.57079632679"/>
      <mass value="0.6803"/>
      <inertia ixx="0.000404620739232" ixy="8.52348884459e-06" ixz="-2.89135903191e-05" iyy="0.000437939678154" iyz="3.73303951794e-05" izz="0.000318928194184"/>
    </inertial>
    <visual>
      <origin xyz="-0.109742724245 0.0701000001907 0.57844450225" rpy="1.30899714732 0 1.57079632679"/>
      <geometry>
        <mesh filename="meshes/simmechanics/2-5_plus/sim_sea_2-5_r_ankle_prt-binary.stl" scale="0.001 0.001 0.001"/>
      </geometry>
      <material name="cyan">
        <color rgba="0 1 1 1"/>
      </material>
    </visual>
    <collision>
      <origin xyz="-0.109742724245 0.0701000001907 0.57844450225" rpy="1.30899714732 0 1.57079632679"/>
      <geometry>
        <mesh filename="meshes/simmechanics/2-5_plus/sim_sea_2-5_r_ankle_prt-binary.stl" scale="0.001 0.001 0.001"/>
      </geometry>
    </collision>
  </link>
  <joint name="r_ankle_pitch" type="revolute">
    <origin xyz="0 0 -0.2005" rpy="0 0.26179917948 0"/>
    <axis xyz="-6.66133814775e-16 1.0 4.4408920985e-16"/>
    <parent link="r_lower_leg"/>
    <child link="r_ankle_1"/>
    <limit effort="37.0" lower="-0.872664625997" upper="0.349065850399" velocity="7.64"/>
    <dynamics damping="1.0" friction="0.0"/>
  </joint>
  <link name="r_ankle_2">
    <inertial>
      <origin xyz="0.00114521577532 -8.29999999999e-06 -0.0385118541074" rpy="1.30899714732 0 1.57079632679"/>
      <mass value="0.265337"/>
      <inertia ixx="0.01" ixy="-7.94989e-08" ixz="8.24551e-09" iyy="0.01" iyz="2.0701e-05" izz="0.01"/>
    </inertial>
    <visual>
      <origin xyz="-0.109742724423 0.0701000001907 0.578444502203" rpy="1.30899714732 0 1.57079632679"/>
      <geometry>
        <mesh filename="meshes/simmechanics/2-5_plus/sim_sea_2-5_r_foot_prt-binary.stl" scale="0.001 0.001 0.001"/>
      </geometry>
      <material name="green"/>
    </visual>
    <collision>
      <origin xyz="-0.109742724423 0.0701000001907 0.578444502203" rpy="1.30899714732 0 1.57079632679"/>
      <geometry>
        <mesh filename="meshes/simmechanics/2-5_plus/sim_sea_2-5_r_foot_prt-binary.stl" scale="0.001 0.001 0.001"/>
      </geometry>
    </collision>
  </link>
  <joint name="r_ankle_roll" type="revolute">
    <origin xyz="0 0 0" rpy="0 0 0"/>
    <axis xyz="-1.00000015612 -6.0136540192e-16 1.19793949732e-07"/>
    <parent link="r_ankle_1"/>
    <child link="r_ankle_2"/>
    <limit effort="37.0" lower="-0.436332312999" upper="0.436332312999" velocity="7.64"/>
    <dynamics damping="1.0" friction="0.0"/>
  </joint>
  <link name="r_foot">
    <inertial>
      <origin xyz="0.0397797426436 0.00455369999491 -0.00631181659" rpy="-1.83259550782 0 -1.57079632679"/>
      <mass value="0.357881"/>
      <inertia ixx="0.00109611" ixy="-2.9193e-07" ixz="-3.70109e-05" iyy="0.00125706" iyz="5.10952e-06" izz="0.000215359"/>
    </inertial>
    <visual>
      <origin xyz="-0.106242797474 -0.0701000001884 -0.638744845568" rpy="-1.83259550782 0 -1.57079632679"/>
      <geometry>
        <mesh filename="meshes/simmechanics/2-5_plus/sim_sea_2-5_r_sole_prt-binary.stl" scale="0.001 0.001 0.001"/>
      </geometry>
      <material name="white">
        <color rgba="1 1 1 1"/>
      </material>
    </visual>
    <collision>
      <origin xyz="0.0417858 0.0049978 0.000725075" rpy="3.14159264324 0.261799192098 0.0"/>
      <geometry>
        <box size="0.16 0.072 0.001"/>
      </geometry>
    </collision>
  </link>
  <joint name="r_foot_ft_sensor" type="fixed">
    <origin xyz="-0.00349992806597 0 -0.0605003432802" rpy="3.14159265242 0 0"/>
    <parent link="r_ankle_2"/>
    <child link="r_foot"/>
    <dynamics damping="0.1"/>
  </joint>
  <link name="r_sole">
    <inertial>
      <origin rpy="0 0 0" xyz="0 0 0"/>
      <mass value="0"/>
      <inertia ixx="0.0" ixy="0.0" ixz="0.0" iyy="0.0" iyz="0.0" izz="0.0"/>
    </inertial>
  </link> <!-- in pybullet, the inertia need to be specified even for dummy links, otherwise it will put an identity inertia and a mass of 1 by default -->
  <joint name="r_sole_fixed_joint" type="fixed">
    <origin xyz="0.0214502260596 0 0.00669127665248" rpy="-3.14159265359 0.261799181028 0"/>
    <parent link="r_foot"/>
    <child link="r_sole"/>
    <dynamics damping="0.1"/>
  </joint>
  <link name="l_hip_1">
    <inertial>
      <origin xyz="-0.0005108 0.0380923 -8.3e-05" rpy="1.57079632679 0 1.57079632679"/>
      <mass value="0.919725"/>
      <inertia ixx="0.000404539" ixy="1.18502e-06" ixz="-9.64514e-07" iyy="0.000573315" iyz="-1.06028e-06" izz="0.000578982"/>
    </inertial>
    <visual>
      <origin xyz="0.0428515000001 -0.026 0.151913" rpy="1.57079632679 0 1.57079632679"/>
      <geometry>
        <mesh filename="meshes/simmechanics/2-5_plus/sim_sea_2-5_l_hip_1_prt-binary.stl" scale="0.001 0.001 0.001"/>
      </geometry>
      <material name="dblue">
        <color rgba="0 0 0.8 1"/>
      </material>
    </visual>
    <collision>
      <origin xyz="0.0428515000001 -0.026 0.151913" rpy="1.57079632679 0 1.57079632679"/>
      <geometry>
        <mesh filename="meshes/simmechanics/2-5_plus/sim_sea_2-5_l_hip_1_prt-binary.stl" scale="0.001 0.001 0.001"/>
      </geometry>
    </collision>
  </link>
  <joint name="l_hip_pitch" type="revolute">
    <origin xyz="0.0064515 -0.026 -0.119913" rpy="0 0 -3.14159265359"/>
    <axis xyz="-2.22044604925e-16 -1.0 -0.0"/>
    <parent link="root_link"/>
    <child link="l_hip_1"/>
    <limit effort="55.5" lower="-0.785398163397" upper="2.33874119767" velocity="5.1"/>
    <dynamics damping="1.0" friction="0.0"/>
  </joint>
  <link name="l_hip_2">
    <inertial>
      <origin xyz="-0.0015762 -1.94e-05 -0.044053" rpy="1.57079632679 0 1.57079632679"/>
      <mass value="0.421106"/>
      <inertia ixx="0.000494284" ixy="1.5483e-07" ixz="-1.86308e-07" iyy="0.000288736" iyz="1.52962e-05" izz="0.000319008"/>
    </inertial>
    <visual>
      <origin xyz="0.0428514998093 -0.0701 0.151913" rpy="1.57079632679 0 1.57079632679"/>
      <geometry>
        <mesh filename="meshes/simmechanics/2-5_plus/sim_sea_2-5_l_hip_2_prt-binary.stl" scale="0.001 0.001 0.001"/>
      </geometry>
      <material name="dgreen">
        <color rgba="0.1 0.8 0.1 1"/>
      </material>
    </visual>
    <collision>
      <origin xyz="0.0428514998093 -0.0701 0.151913" rpy="1.57079632679 0 1.57079632679"/>
      <geometry>
        <mesh filename="meshes/simmechanics/2-5_plus/sim_sea_2-5_l_hip_2_prt-binary.stl" scale="0.001 0.001 0.001"/>
      </geometry>
    </collision>
  </link>
  <joint name="l_hip_roll" type="revolute">
    <origin xyz="0 0.0441 0" rpy="0 0 0"/>
    <axis xyz="1.0 0.0 2.22044604925e-16"/>
    <parent link="l_hip_1"/>
    <child link="l_hip_2"/>
    <limit effort="37.0" lower="-0.349065850399" upper="2.09439510239" velocity="7.64"/>
    <dynamics damping="1.0" friction="0.0"/>
  </joint>
  <link name="l_hip_3">
    <inertial>
      <origin xyz="-0.0001229 -0.0002823 0.008718" rpy="-1.57079632679 0 -1.57079632679"/>
      <mass value="0.126212"/>
      <inertia ixx="0.01" ixy="2.67901e-07" ixz="-4.41463e-09" iyy="0.01" iyz="3.32338e-08" izz="0.01"/>
    </inertial>
    <visual>
      <origin xyz="0.043709 0.0701 -0.226213" rpy="-1.57079632679 0 -1.57079632679"/>
      <geometry>
        <mesh filename="meshes/simmechanics/2-5_plus/sim_sea_2-5_l_upper_thigh_prt-binary.stl" scale="0.001 0.001 0.001"/>
      </geometry>
      <material name="gray">
        <color rgba="0.5 0.5 0.5 1"/>
      </material>
    </visual>
    <collision>
      <origin xyz="0.043709 0.0701 -0.226213" rpy="-1.57079632679 0 -1.57079632679"/>
      <geometry>
        <mesh filename="meshes/simmechanics/2-5_plus/sim_sea_2-5_l_upper_thigh_prt-binary.stl" scale="0.001 0.001 0.001"/>
      </geometry>
    </collision>
  </link>
  <joint name="l_leg_ft_sensor" type="fixed">
    <origin xyz="-0.0008575 0 -0.0743" rpy="-3.14159265359 0 -1.57079632679"/>
    <parent link="l_hip_2"/>
    <child link="l_hip_3"/>
    <dynamics damping="0.1"/>
  </joint>
  <link name="l_upper_leg">
    <inertial>
      <origin xyz="0.0033868 0.0001018 -0.078916" rpy="1.57079632679 0 1.57079632679"/>
      <mass value="1.8084"/>
      <inertia ixx="0.00648512673084" ixy="-0.00012421121424" ixz="-3.97399421479e-06" iyy="0.00146250529833" iyz="-0.00013681806888" izz="0.00647619242046"/>
    </inertial>
    <visual>
      <origin xyz="0.0437089998093 -0.0701 0.240813" rpy="1.57079632679 0 1.57079632679"/>
      <geometry>
        <mesh filename="meshes/simmechanics/2-5_plus/sim_sea_2-5_l_thigh_prt-binary.stl" scale="0.001 0.001 0.001"/>
      </geometry>
      <material name="green"/>
    </visual>
    <collision>
      <origin xyz="0.0437089998093 -0.0701 0.240813" rpy="1.57079632679 0 1.57079632679"/>
      <geometry>
        <mesh filename="meshes/simmechanics/2-5_plus/sim_sea_2-5_l_thigh_prt-binary.stl" scale="0.001 0.001 0.001"/>
      </geometry>
    </collision>
  </link>
  <joint name="l_hip_yaw" type="revolute">
    <origin xyz="0 0 0.0144" rpy="-3.14159265359 0 -1.57079632679"/>
    <axis xyz="0.0 2.22044604925e-16 1.0"/>
    <parent link="l_hip_3"/>
    <child link="l_upper_leg"/>
    <limit effort="37.0" lower="-1.3962634016" upper="1.3962634016" velocity="7.64"/>
    <dynamics damping="1.0" friction="0.0"/>
  </joint>
  <link name="l_upper_leg_back_contact">
    <inertial>
      <origin rpy="0 0 0" xyz="0 0 0"/>
      <mass value="0"/>
      <inertia ixx="0.0" ixy="0.0" ixz="0.0" iyy="0.0" iyz="0.0" izz="0.0"/>
    </inertial>
  </link> <!-- in pybullet, the inertia need to be specified even for dummy links, otherwise it will put an identity inertia and a mass of 1 by default -->
  <joint name="l_upper_leg_back_contact_fixed_joint" type="fixed">
    <origin xyz="-0.0512567 0 0.0146" rpy="0 1.57079632679 0"/>
    <parent link="l_upper_leg"/>
    <child link="l_upper_leg_back_contact"/>
    <dynamics damping="0.1"/>
  </joint>
  <link name="l_upper_leg_dh_frame">
    <inertial>
      <origin rpy="0 0 0" xyz="0 0 0"/>
      <mass value="0"/>
      <inertia ixx="0.0" ixy="0.0" ixz="0.0" iyy="0.0" iyz="0.0" izz="0.0"/>
    </inertial>
  </link> <!-- in pybullet, the inertia need to be specified even for dummy links, otherwise it will put an identity inertia and a mass of 1 by default -->
  <joint name="l_upper_leg_dh_frame_fixed_joint" type="fixed">
    <origin xyz="0 0 -0.145825" rpy="1.57079632679 0 0"/>
    <parent link="l_upper_leg"/>
    <child link="l_upper_leg_dh_frame"/>
    <dynamics damping="0.1"/>
  </joint>
  <link name="l_lower_leg">
    <inertial>
      <origin xyz="0.0009997 0.0034969 -0.088567" rpy="1.57079632679 0 1.57079632679"/>
      <mass value="1.4724"/>
      <inertia ixx="0.00423698606499" ixy="-0.000239615181423" ixz="6.76166218238e-05" iyy="0.00152221313636" iyz="-0.00023314283575" izz="0.00457007183207"/>
    </inertial>
    <visual>
      <origin xyz="0.0437089998093 -0.0701000001907 0.386638" rpy="1.57079632679 0 1.57079632679"/>
      <geometry>
        <mesh filename="meshes/simmechanics/2-5_plus/sim_sea_2-5_l_shank_prt-binary.stl" scale="0.001 0.001 0.001"/>
      </geometry>
      <material name="black"/>
    </visual>
    <collision>
      <origin xyz="0.0437089998093 -0.0701000001907 0.386638" rpy="1.57079632679 0 1.57079632679"/>
      <geometry>
        <mesh filename="meshes/simmechanics/2-5_plus/sim_sea_2-5_l_shank_prt-binary.stl" scale="0.001 0.001 0.001"/>
      </geometry>
    </collision>
  </link>
  <joint name="l_knee" type="revolute">
    <origin xyz="0 0 -0.145825" rpy="0 0 0"/>
    <axis xyz="-2.22044604925e-16 -1.0 -0.0"/>
    <parent link="l_upper_leg"/>
    <child link="l_lower_leg"/>
    <limit effort="37.0" lower="-2.16420827247" upper="0.0698131700798" velocity="7.64"/>
    <dynamics damping="1.0" friction="0.0"/>
  </joint>
  <link name="l_ankle_1">
    <inertial>
      <origin xyz="0.015152971856 0.0009021 4.23165565592e-05" rpy="1.30899714732 0 1.57079632679"/>
      <mass value="0.6798"/>
      <inertia ixx="0.000404476185531" ixy="-8.97867775832e-06" ixz="2.91348460473e-05" iyy="0.000437201502871" iyz="3.73020626807e-05" izz="0.000318287954629"/>
    </inertial>
    <visual>
      <origin xyz="-0.109742724245 -0.0701000001908 0.57844450225" rpy="1.30899714732 0 1.57079632679"/>
      <geometry>
        <mesh filename="meshes/simmechanics/2-5_plus/sim_sea_2-5_l_ankle_prt-binary.stl" scale="0.001 0.001 0.001"/>
      </geometry>
      <material name="red"/>
    </visual>
    <collision>
      <origin xyz="-0.109742724245 -0.0701000001908 0.57844450225" rpy="1.30899714732 0 1.57079632679"/>
      <geometry>
        <mesh filename="meshes/simmechanics/2-5_plus/sim_sea_2-5_l_ankle_prt-binary.stl" scale="0.001 0.001 0.001"/>
      </geometry>
    </collision>
  </link>
  <joint name="l_ankle_pitch" type="revolute">
    <origin xyz="0 0 -0.2005" rpy="0 0.26179917948 0"/>
    <axis xyz="-6.66133814775e-16 1.0 4.4408920985e-16"/>
    <parent link="l_lower_leg"/>
    <child link="l_ankle_1"/>
    <limit effort="37.0" lower="-0.872664625997" upper="0.349065850399" velocity="7.64"/>
    <dynamics damping="1.0" friction="0.0"/>
  </joint>
  <link name="l_ankle_2">
    <inertial>
      <origin xyz="0.00114521577532 -8.29999999997e-06 -0.0385118541074" rpy="1.30899714732 0 1.57079632679"/>
      <mass value="0.265337"/>
      <inertia ixx="0.01" ixy="-7.94989e-08" ixz="8.24551e-09" iyy="0.01" iyz="2.0701e-05" izz="0.01"/>
    </inertial>
    <visual>
      <origin xyz="-0.109742724423 -0.0701000001902 0.578444502203" rpy="1.30899714732 0 1.57079632679"/>
      <geometry>
        <mesh filename="meshes/simmechanics/2-5_plus/sim_sea_2-5_l_foot_prt-binary.stl" scale="0.001 0.001 0.001"/>
      </geometry>
      <material name="blue"/>
    </visual>
    <collision>
      <origin xyz="-0.109742724423 -0.0701000001902 0.578444502203" rpy="1.30899714732 0 1.57079632679"/>
      <geometry>
        <mesh filename="meshes/simmechanics/2-5_plus/sim_sea_2-5_l_foot_prt-binary.stl" scale="0.001 0.001 0.001"/>
      </geometry>
    </collision>
  </link>
  <joint name="l_ankle_roll" type="revolute">
    <origin xyz="0 0 0" rpy="0 0 0"/>
    <axis xyz="1.00000015612 6.0136540192e-16 -1.19793949732e-07"/>
    <parent link="l_ankle_1"/>
    <child link="l_ankle_2"/>
    <limit effort="37.0" lower="-0.436332312999" upper="0.436332312999" velocity="7.64"/>
    <dynamics damping="1.0" friction="0.0"/>
  </joint>
  <link name="l_foot">
    <inertial>
      <origin xyz="0.0397509320401 -0.00455370006547 -0.00632583757567" rpy="-1.83259551889 0 -1.57079632679"/>
      <mass value="0.357881"/>
      <inertia ixx="0.00109523" ixy="2.85562e-07" ixz="3.69444e-05" iyy="0.00125599" iyz="5.08349e-06" izz="0.000215553"/>
    </inertial>
    <visual>
      <origin xyz="-0.106242804521 0.0701000001701 -0.638744844389" rpy="-1.83259551889 0 -1.57079632679"/>
      <geometry>
        <mesh filename="meshes/simmechanics/2-5_plus/sim_sea_2-5_l_sole_prt-binary.stl" scale="0.001 0.001 0.001"/>
      </geometry>
      <material name="yellow"/>
    </visual>
    <collision>
      <origin xyz="0.0417858 -0.0049978 0.000725075" rpy="3.14159264324 0.261799192098 0.0"/>
      <geometry>
        <box size="0.16 0.072 0.001"/>
      </geometry>
    </collision>
  </link>
  <joint name="l_foot_ft_sensor" type="fixed">
    <origin xyz="-0.00349992806597 0 -0.0605003432802" rpy="-3.14159264324 0 0"/>
    <parent link="l_ankle_2"/>
    <child link="l_foot"/>
    <dynamics damping="0.1"/>
  </joint>
  <link name="l_sole">
    <inertial>
      <origin rpy="0 0 0" xyz="0 0 0"/>
      <mass value="0"/>
      <inertia ixx="0.0" ixy="0.0" ixz="0.0" iyy="0.0" iyz="0.0" izz="0.0"/>
    </inertial>
  </link> <!-- in pybullet, the inertia need to be specified even for dummy links, otherwise it will put an identity inertia and a mass of 1 by default -->
  <joint name="l_sole_fixed_joint" type="fixed">
    <origin xyz="0.0214502260596 0 0.00669127665248" rpy="-3.14159265359 0.261799192098 0"/>
    <parent link="l_foot"/>
    <child link="l_sole"/>
    <dynamics damping="0.1"/>
  </joint>
  <link name="torso_1">
    <inertial>
      <origin xyz="0.0269806359 0.02914798 -0.0004398" rpy="0 0 0"/>
      <mass value="0.67144"/>
      <inertia ixx="0.00040911" ixy="-1.04522e-06" ixz="-1.02516e-06" iyy="0.000384141" iyz="6.50708e-06" izz="0.000299445"/>
    </inertial>
    <visual>
      <origin xyz="0.0269347998093 0.032 0.0364" rpy="0 0 0"/>
      <geometry>
        <mesh filename="meshes/simmechanics/2-5_plus/sim_sea_2-5_lap_belt_1_prt-binary.stl" scale="0.001 0.001 0.001"/>
      </geometry>
      <material name="pink"/>
    </visual>
    <collision>
      <origin xyz="0.0269347998093 0.032 0.0364" rpy="0 0 0"/>
      <geometry>
        <mesh filename="meshes/simmechanics/2-5_plus/sim_sea_2-5_lap_belt_1_prt-binary.stl" scale="0.001 0.001 0.001"/>
      </geometry>
    </collision>
  </link>
  <joint name="torso_pitch" type="revolute">
    <origin xyz="0 0.0269348 0" rpy="1.57079632679 0 -1.57079632679"/>
    <axis xyz="1.0 0.0 0.0"/>
    <parent link="root_link"/>
    <child link="torso_1"/>
    <limit effort="50000" lower="-0.349065850399" upper="1.2217304764" velocity="50000"/>
    <dynamics damping="1.0" friction="0.0"/>
  </joint>
  <link name="torso_2">
    <inertial>
      <origin xyz="-0.000113507809265 0.0361525 0.0570963" rpy="0 0 0"/>
      <mass value="0.425685"/>
      <inertia ixx="0.000829234" ixy="2.37006e-08" ixz="9.25231e-08" iyy="0.000436517" iyz="-1.74814e-07" izz="0.000604802"/>
    </inertial>
    <visual>
      <origin xyz="0 0.1433 0.0386531" rpy="0 0 0"/>
      <geometry>
        <mesh filename="meshes/simmechanics/2-5_plus/sim_sea_2-5_lap_belt_2_prt-binary.stl" scale="0.001 0.001 0.001"/>
      </geometry>
      <material name="cyan"/>
    </visual>
    <collision>
      <origin xyz="0 0.1433 0.0386531" rpy="0 0 0"/>
      <geometry>
        <mesh filename="meshes/simmechanics/2-5_plus/sim_sea_2-5_lap_belt_2_prt-binary.stl" scale="0.001 0.001 0.001"/>
      </geometry>
    </collision>
  </link>
  <joint name="torso_roll" type="revolute">
    <origin xyz="0.0269347998093 0.032 -0.0573446" rpy="0 0 0"/>
    <axis xyz="0.0 0.0 -1.0"/>
    <parent link="torso_1"/>
    <child link="torso_2"/>
    <limit effort="50000" lower="-0.523598775598" upper="0.523598775598" velocity="50000"/>
    <dynamics damping="1.0" friction="0.0"/>
  </joint>
  <link name="chest">
    <inertial>
      <origin xyz="0.000188619190735 0.073091 -0.0472381" rpy="0 0 0"/>
      <mass value="7.638"/>
      <inertia ixx="0.0430324878618" ixy="2.91075388804e-05" ixz="0.000181985229949" iyy="0.0440835725548" iyz="-0.000429106409108" izz="0.0260563249911"/>
    </inertial>
    <visual>
      <origin xyz="0 0.0928 -0.024189" rpy="0 0 0"/>
      <geometry>
        <mesh filename="meshes/simmechanics/2-5_plus/sim_sea_2-5_chest_bb_prt-binary.stl" scale="0.001 0.001 0.001"/>
      </geometry>
      <material name="green"/>
    </visual>
    <collision>
      <origin xyz="0 0.0928 -0.024189" rpy="0 0 0"/>
      <geometry>
        <mesh filename="meshes/simmechanics/2-5_plus/sim_sea_2-5_chest_bb_prt-binary.stl" scale="0.001 0.001 0.001"/>
      </geometry>
    </collision>
  </link>
  <joint name="torso_yaw" type="revolute">
    <origin xyz="0 0.05 0.0628421" rpy="0 0 0"/>
    <axis xyz="0.0 -1.0 0.0"/>
    <parent link="torso_2"/>
    <child link="chest"/>
    <limit effort="50000" lower="-0.872664625997" upper="0.872664625997" velocity="50000"/>
    <dynamics damping="1.0" friction="0.0"/>
  </joint>
  <link name="r_shoulder_1">
    <inertial>
      <origin xyz="-0.0122656014133 3.2e-05 -0.00321064290449" rpy="0 0 0"/>
      <mass value="0.114862"/>
      <inertia ixx="0.01" ixy="-1.65173e-08" ixz="-3.55626e-06" iyy="0.01" iyz="-6.13337e-08" izz="0.01"/>
    </inertial>
    <visual>
      <origin xyz="0.0990079253076 0 -0.0265292487558" rpy="0 0 0"/>
      <geometry>
        <mesh filename="meshes/simmechanics/2-5_plus/sim_sea_2-5_r_shoulder_1_prt-binary.stl" scale="0.001 0.001 0.001"/>
      </geometry>
      <material name="white"/>
    </visual>
    <collision>
      <origin xyz="0.0990079253076 0 -0.0265292487558" rpy="0 0 0"/>
      <geometry>
        <mesh filename="meshes/simmechanics/2-5_plus/sim_sea_2-5_r_shoulder_1_prt-binary.stl" scale="0.001 0.001 0.001"/>
      </geometry>
    </collision>
  </link>
  <joint name="r_shoulder_pitch" type="revolute">
    <origin xyz="-0.120015999809 0.0928 0.0079693" rpy="0 -0.523598883792 3.14159265359"/>
    <axis xyz="-0.965925926173 0.0 0.258819275525"/>
    <parent link="chest"/>
    <child link="r_shoulder_1"/>
    <limit effort="50000" lower="-1.66678943565" upper="0.174532925199" velocity="50000"/>
    <dynamics damping="1.0" friction="0.0"/>
  </joint>
  <link name="r_shoulder_2">
    <inertial>
      <origin xyz="-0.0214141709438 0.000271725272551 -0.0194402344535" rpy="0 0 0"/>
      <mass value="0.238162"/>
      <inertia ixx="0.01" ixy="-1.12091e-07" ixz="1.02574e-05" iyy="0.01" iyz="1.19785e-06" izz="0.01"/>
    </inertial>
    <visual>
      <origin xyz="0.106587808568 2.31914715418e-07 -0.0407392121175" rpy="0 0 0"/>
      <geometry>
        <mesh filename="meshes/simmechanics/2-5_plus/sim_sea_2-5_r_shoulder_2_prt-binary.stl" scale="0.001 0.001 0.001"/>
      </geometry>
      <material name="dblue"/>
    </visual>
    <collision>
      <origin xyz="0.106587808568 2.31914715418e-07 -0.0407392121175" rpy="0 0 0"/>
      <geometry>
        <mesh filename="meshes/simmechanics/2-5_plus/sim_sea_2-5_r_shoulder_2_prt-binary.stl" scale="0.001 0.001 0.001"/>
      </geometry>
    </collision>
  </link>
  <joint name="r_shoulder_roll" type="revolute">
    <origin xyz="-0.00758046573227 0 0.0142102463639" rpy="-0.270597611583 -0.252680154648 -1.50155680035"/>
    <axis xyz="-0.258819 -2.77555756156e-17 -0.965926"/>
    <parent link="r_shoulder_1"/>
    <child link="r_shoulder_2"/>
    <limit effort="50000" lower="0.0" upper="2.80648943721" velocity="50000"/>
    <dynamics damping="1.0" friction="0.0"/>
  </joint>
  <link name="r_shoulder_3">
    <inertial>
      <origin xyz="-0.0267620766871 -6.99999999998e-06 0.0146999207713" rpy="0 0 0"/>
      <mass value="0.35913"/>
      <inertia ixx="0.01" ixy="3.60361e-07" ixz="4.94445e-05" iyy="0.01" iyz="2.65919e-07" izz="0.01"/>
    </inertial>
    <visual>
      <origin xyz="0.131933879164 0 -0.0353515667647" rpy="0 0 0"/>
      <geometry>
        <mesh filename="meshes/simmechanics/2-5_plus/sim_sea_2-5_r_upper_arm_prt-binary.stl" scale="0.001 0.001 0.001"/>
      </geometry>
      <material name="dgreen"/>
    </visual>
    <collision>
      <origin xyz="0.131933879164 0 -0.0353515667647" rpy="0 0 0"/>
      <geometry>
        <mesh filename="meshes/simmechanics/2-5_plus/sim_sea_2-5_r_upper_arm_prt-binary.stl" scale="0.001 0.001 0.001"/>
      </geometry>
    </collision>
  </link>
  <joint name="r_shoulder_yaw" type="revolute">
    <origin xyz="-0.0253460713232 2.32750427306e-07 -0.00538764806457" rpy="-0.252689546175 0.0085186183214 0.067039889142"/>
    <axis xyz="0.965925843882 -2.22044604925e-16 -0.258818979447"/>
    <parent link="r_shoulder_2"/>
    <child link="r_shoulder_3"/>
    <limit effort="50000" lower="-0.645771823238" upper="1.3962634016" velocity="50000"/>
    <dynamics damping="1.0" friction="0.0"/>
  </joint>
  <link name="r_upper_arm">
    <inertial>
      <origin xyz="-0.006087 0.000126 0.0293121" rpy="0 1.30899700697 0"/>
      <mass value="0.745104"/>
      <inertia ixx="0.000509527" ixy="1.19292e-06" ixz="-1.17426e-05" iyy="0.000668487" iyz="1.13363e-06" izz="0.000599254"/>
    </inertial>
    <visual>
      <origin xyz="-0.015 0 -0.1933" rpy="0 1.30899700697 0"/>
      <geometry>
        <mesh filename="meshes/simmechanics/2-5_plus/sim_sea_2-5_r_elbow_prt-binary.stl" scale="0.001 0.001 0.001"/>
      </geometry>
      <material name="gray"/>
    </visual>
    <collision>
      <origin xyz="-0.015 0 -0.1933" rpy="0 1.30899700697 0"/>
      <geometry>
        <mesh filename="meshes/simmechanics/2-5_plus/sim_sea_2-5_r_elbow_prt-binary.stl" scale="0.001 0.001 0.001"/>
      </geometry>
    </collision>
  </link>
  <joint name="r_arm_ft_sensor" type="fixed">
    <origin xyz="-0.0508973017665 0 0.0291670296206" rpy="0 -1.30899700697 0"/>
    <parent link="r_shoulder_3"/>
    <child link="r_upper_arm"/>
    <dynamics damping="0.1"/>
  </joint>
  <link name="r_elbow_1">
    <inertial>
      <origin xyz="-0.00673912932843 0.0188019 -0.00465769236154" rpy="0 0 0"/>
      <mass value="0.267903"/>
      <inertia ixx="0.01" ixy="7.36974e-06" ixz="-1.04536e-05" iyy="0.01" iyz="3.92498e-06" izz="0.01"/>
    </inertial>
    <visual>
      <origin xyz="0.259390463317 0.0224999 -0.0850325886962" rpy="0 0 0"/>
      <geometry>
        <mesh filename="meshes/simmechanics/2-5_plus/sim_sea_2-5_r_elbow_prosup_prt-binary.stl" scale="0.001 0.001 0.001"/>
      </geometry>
      <material name="green"/>
    </visual>
    <collision>
      <origin xyz="0.259390463317 0.0224999 -0.0850325886962" rpy="0 0 0"/>
      <geometry>
        <mesh filename="meshes/simmechanics/2-5_plus/sim_sea_2-5_r_elbow_prosup_prt-binary.stl" scale="0.001 0.001 0.001"/>
      </geometry>
    </collision>
  </link>
  <joint name="r_elbow" type="revolute">
    <origin xyz="0 -0.0224999 0.07926" rpy="0 1.30899700697 0"/>
    <axis xyz="2.22044604925e-16 1.0 0.0"/>
    <parent link="r_upper_arm"/>
    <child link="r_elbow_1"/>
    <limit effort="50000" lower="0.261799387799" upper="1.85004900711" velocity="50000"/>
    <dynamics damping="1.0" friction="0.0"/>
  </joint>
  <link name="r_forearm">
    <inertial>
      <origin xyz="-0.0404391133886 -0.000328 0.00532733448387" rpy="0 0 0"/>
      <mass value="0.6347"/>
      <inertia ixx="0.000370044" ixy="-1.65419e-06" ixz="0.00010538" iyy="0.000672279" iyz="1.1456e-06" izz="0.000553637"/>
    </inertial>
    <visual>
      <origin xyz="0.296886967375 0 -0.0795506015227" rpy="0 0 0"/>
      <geometry>
        <mesh filename="meshes/simmechanics/2-5_plus/sim_sea_2-5_r_forearm_prt-binary.stl" scale="0.001 0.001 0.001"/>
      </geometry>
      <material name="black"/>
    </visual>
    <collision>
      <origin xyz="0.296886967375 0 -0.0795506015227" rpy="0 0 0"/>
      <geometry>
        <mesh filename="meshes/simmechanics/2-5_plus/sim_sea_2-5_r_forearm_prt-binary.stl" scale="0.001 0.001 0.001"/>
      </geometry>
    </collision>
  </link>
  <joint name="r_wrist_prosup" type="revolute">
    <origin xyz="-0.0384624299027 0.0224999 -0.00522316819403" rpy="0 0 0"/>
    <axis xyz="0.965925843882 -2.22044604925e-16 -0.258818979447"/>
    <parent link="r_elbow_1"/>
    <child link="r_forearm"/>
    <limit effort="50000" lower="-1.0471975512" upper="1.0471975512" velocity="50000"/>
    <dynamics damping="1.0" friction="0.0"/>
  </joint>
  <link name="r_forearm_skin_0">
    <inertial>
      <origin rpy="0 0 0" xyz="0 0 0"/>
      <mass value="0"/>
      <inertia ixx="0.0" ixy="0.0" ixz="0.0" iyy="0.0" iyz="0.0" izz="0.0"/>
    </inertial>
  </link> <!-- in pybullet, the inertia need to be specified even for dummy links, otherwise it will put an identity inertia and a mass of 1 by default -->
  <joint name="r_forearm_skin_0_fixed_joint" type="fixed">
    <origin xyz="-0.0454493286618 0.030077 -0.00628656037901" rpy="1.69181522292 -0.271026744341 -3.06880438227"/>
    <parent link="r_forearm"/>
    <child link="r_forearm_skin_0"/>
    <dynamics damping="0.1"/>
  </joint>
  <link name="r_forearm_skin_1">
    <inertial>
      <origin rpy="0 0 0" xyz="0 0 0"/>
      <mass value="0"/>
      <inertia ixx="0.0" ixy="0.0" ixz="0.0" iyy="0.0" iyz="0.0" izz="0.0"/>
    </inertial>
  </link> <!-- in pybullet, the inertia need to be specified even for dummy links, otherwise it will put an identity inertia and a mass of 1 by default -->
  <joint name="r_forearm_skin_1_fixed_joint" type="fixed">
    <origin xyz="-0.0333728935826 0.028826 -0.0198456867711" rpy="1.86694023278 -0.274442533764 -3.09946977984"/>
    <parent link="r_forearm"/>
    <child link="r_forearm_skin_1"/>
    <dynamics damping="0.1"/>
  </joint>
  <link name="r_forearm_skin_2">
    <inertial>
      <origin rpy="0 0 0" xyz="0 0 0"/>
      <mass value="0"/>
      <inertia ixx="0.0" ixy="0.0" ixz="0.0" iyy="0.0" iyz="0.0" izz="0.0"/>
    </inertial>
  </link> <!-- in pybullet, the inertia need to be specified even for dummy links, otherwise it will put an identity inertia and a mass of 1 by default -->
  <joint name="r_forearm_skin_2_fixed_joint" type="fixed">
    <origin xyz="-0.0146988929852 0.031279 -0.0160117338371" rpy="1.72847287019 -0.264015219116 -3.12733260687"/>
    <parent link="r_forearm"/>
    <child link="r_forearm_skin_2"/>
    <dynamics damping="0.1"/>
  </joint>
  <link name="r_forearm_skin_3">
    <inertial>
      <origin rpy="0 0 0" xyz="0 0 0"/>
      <mass value="0"/>
      <inertia ixx="0.0" ixy="0.0" ixz="0.0" iyy="0.0" iyz="0.0" izz="0.0"/>
    </inertial>
  </link> <!-- in pybullet, the inertia need to be specified even for dummy links, otherwise it will put an identity inertia and a mass of 1 by default -->
  <joint name="r_forearm_skin_3_fixed_joint" type="fixed">
    <origin xyz="-0.045567293622 -0.030891 -0.00633000929351" rpy="-1.69487280859 -0.269757727104 3.07959743574"/>
    <parent link="r_forearm"/>
    <child link="r_forearm_skin_3"/>
    <dynamics damping="0.1"/>
  </joint>
  <link name="r_forearm_skin_4">
    <inertial>
      <origin rpy="0 0 0" xyz="0 0 0"/>
      <mass value="0"/>
      <inertia ixx="0.0" ixy="0.0" ixz="0.0" iyy="0.0" iyz="0.0" izz="0.0"/>
    </inertial>
  </link> <!-- in pybullet, the inertia need to be specified even for dummy links, otherwise it will put an identity inertia and a mass of 1 by default -->
  <joint name="r_forearm_skin_4_fixed_joint" type="fixed">
    <origin xyz="-0.0635326332996 -0.0281163 -0.00899784258066" rpy="-1.80734960194 -0.0393131796327 2.97997643632"/>
    <parent link="r_forearm"/>
    <child link="r_forearm_skin_4"/>
    <dynamics damping="0.1"/>
  </joint>
  <link name="r_forearm_skin_5">
    <inertial>
      <origin rpy="0 0 0" xyz="0 0 0"/>
      <mass value="0"/>
      <inertia ixx="0.0" ixy="0.0" ixz="0.0" iyy="0.0" iyz="0.0" izz="0.0"/>
    </inertial>
  </link> <!-- in pybullet, the inertia need to be specified even for dummy links, otherwise it will put an identity inertia and a mass of 1 by default -->
  <joint name="r_forearm_skin_5_fixed_joint" type="fixed">
    <origin xyz="-0.0688211941968 -0.0179483 -0.0231133361791" rpy="-2.5410475806 -0.385627260642 3.05486989667"/>
    <parent link="r_forearm"/>
    <child link="r_forearm_skin_5"/>
    <dynamics damping="0.1"/>
  </joint>
  <link name="r_forearm_skin_6">
    <inertial>
      <origin rpy="0 0 0" xyz="0 0 0"/>
      <mass value="0"/>
      <inertia ixx="0.0" ixy="0.0" ixz="0.0" iyy="0.0" iyz="0.0" izz="0.0"/>
    </inertial>
  </link> <!-- in pybullet, the inertia need to be specified even for dummy links, otherwise it will put an identity inertia and a mass of 1 by default -->
  <joint name="r_forearm_skin_6_fixed_joint" type="fixed">
    <origin xyz="-0.0333948436255 -0.0295479 -0.0198325583433" rpy="-1.86628164653 -0.272886336181 3.10448585021"/>
    <parent link="r_forearm"/>
    <child link="r_forearm_skin_6"/>
    <dynamics damping="0.1"/>
  </joint>
  <link name="r_forearm_skin_7">
    <inertial>
      <origin rpy="0 0 0" xyz="0 0 0"/>
      <mass value="0"/>
      <inertia ixx="0.0" ixy="0.0" ixz="0.0" iyy="0.0" iyz="0.0" izz="0.0"/>
    </inertial>
  </link> <!-- in pybullet, the inertia need to be specified even for dummy links, otherwise it will put an identity inertia and a mass of 1 by default -->
  <joint name="r_forearm_skin_7_fixed_joint" type="fixed">
    <origin xyz="-0.0147224260074 -0.0319422 -0.0159326482703" rpy="-1.72564640857 -0.263992900722 3.12721254266"/>
    <parent link="r_forearm"/>
    <child link="r_forearm_skin_7"/>
    <dynamics damping="0.1"/>
  </joint>
  <link name="r_forearm_skin_8">
    <inertial>
      <origin rpy="0 0 0" xyz="0 0 0"/>
      <mass value="0"/>
      <inertia ixx="0.0" ixy="0.0" ixz="0.0" iyy="0.0" iyz="0.0" izz="0.0"/>
    </inertial>
  </link> <!-- in pybullet, the inertia need to be specified even for dummy links, otherwise it will put an identity inertia and a mass of 1 by default -->
  <joint name="r_forearm_skin_8_fixed_joint" type="fixed">
    <origin xyz="-0.0228528628554 -0.0097862 -0.041885146375" rpy="-2.94801979137 -0.270605090512 3.13980557285"/>
    <parent link="r_forearm"/>
    <child link="r_forearm_skin_8"/>
    <dynamics damping="0.1"/>
  </joint>
  <link name="r_forearm_skin_9">
    <inertial>
      <origin rpy="0 0 0" xyz="0 0 0"/>
      <mass value="0"/>
      <inertia ixx="0.0" ixy="0.0" ixz="0.0" iyy="0.0" iyz="0.0" izz="0.0"/>
    </inertial>
  </link> <!-- in pybullet, the inertia need to be specified even for dummy links, otherwise it will put an identity inertia and a mass of 1 by default -->
  <joint name="r_forearm_skin_9_fixed_joint" type="fixed">
    <origin xyz="-0.0376032734683 -0.018955 -0.0340163371186" rpy="-2.58406517708 -0.2933217196 3.12128407396"/>
    <parent link="r_forearm"/>
    <child link="r_forearm_skin_9"/>
    <dynamics damping="0.1"/>
  </joint>
  <link name="r_forearm_skin_10">
    <inertial>
      <origin rpy="0 0 0" xyz="0 0 0"/>
      <mass value="0"/>
      <inertia ixx="0.0" ixy="0.0" ixz="0.0" iyy="0.0" iyz="0.0" izz="0.0"/>
    </inertial>
  </link> <!-- in pybullet, the inertia need to be specified even for dummy links, otherwise it will put an identity inertia and a mass of 1 by default -->
  <joint name="r_forearm_skin_10_fixed_joint" type="fixed">
    <origin xyz="-0.0542285210888 -0.0097861 -0.0321469082866" rpy="-2.94123313406 -0.328304471922 3.1276263754"/>
    <parent link="r_forearm"/>
    <child link="r_forearm_skin_10"/>
    <dynamics damping="0.1"/>
  </joint>
  <link name="r_forearm_skin_11">
    <inertial>
      <origin rpy="0 0 0" xyz="0 0 0"/>
      <mass value="0"/>
      <inertia ixx="0.0" ixy="0.0" ixz="0.0" iyy="0.0" iyz="0.0" izz="0.0"/>
    </inertial>
  </link> <!-- in pybullet, the inertia need to be specified even for dummy links, otherwise it will put an identity inertia and a mass of 1 by default -->
  <joint name="r_forearm_skin_11_fixed_joint" type="fixed">
    <origin xyz="-0.0542240912024 0.009043 -0.0321431259452" rpy="2.93929835957 -0.329101389745 -3.12731916446"/>
    <parent link="r_forearm"/>
    <child link="r_forearm_skin_11"/>
    <dynamics damping="0.1"/>
  </joint>
  <link name="r_forearm_skin_12">
    <inertial>
      <origin rpy="0 0 0" xyz="0 0 0"/>
      <mass value="0"/>
      <inertia ixx="0.0" ixy="0.0" ixz="0.0" iyy="0.0" iyz="0.0" izz="0.0"/>
    </inertial>
  </link> <!-- in pybullet, the inertia need to be specified even for dummy links, otherwise it will put an identity inertia and a mass of 1 by default -->
  <joint name="r_forearm_skin_12_fixed_joint" type="fixed">
    <origin xyz="-0.0375994633868 0.018216 -0.0340191179961" rpy="2.58303505964 -0.29483050207 -3.12026580314"/>
    <parent link="r_forearm"/>
    <child link="r_forearm_skin_12"/>
    <dynamics damping="0.1"/>
  </joint>
  <link name="r_forearm_skin_13">
    <inertial>
      <origin rpy="0 0 0" xyz="0 0 0"/>
      <mass value="0"/>
      <inertia ixx="0.0" ixy="0.0" ixz="0.0" iyy="0.0" iyz="0.0" izz="0.0"/>
    </inertial>
  </link> <!-- in pybullet, the inertia need to be specified even for dummy links, otherwise it will put an identity inertia and a mass of 1 by default -->
  <joint name="r_forearm_skin_13_fixed_joint" type="fixed">
    <origin xyz="-0.0228550868405 0.009048 -0.0418919009209" rpy="2.94896679198 -0.270583947189 -3.13981880352"/>
    <parent link="r_forearm"/>
    <child link="r_forearm_skin_13"/>
    <dynamics damping="0.1"/>
  </joint>
  <link name="r_forearm_skin_14">
    <inertial>
      <origin rpy="0 0 0" xyz="0 0 0"/>
      <mass value="0"/>
      <inertia ixx="0.0" ixy="0.0" ixz="0.0" iyy="0.0" iyz="0.0" izz="0.0"/>
    </inertial>
  </link> <!-- in pybullet, the inertia need to be specified even for dummy links, otherwise it will put an identity inertia and a mass of 1 by default -->
  <joint name="r_forearm_skin_14_fixed_joint" type="fixed">
    <origin xyz="-0.0687703276364 0.01716 -0.0230239558511" rpy="2.48044991868 -0.295542566281 -2.91877349139"/>
    <parent link="r_forearm"/>
    <child link="r_forearm_skin_14"/>
    <dynamics damping="0.1"/>
  </joint>
  <link name="r_forearm_skin_15">
    <inertial>
      <origin rpy="0 0 0" xyz="0 0 0"/>
      <mass value="0"/>
      <inertia ixx="0.0" ixy="0.0" ixz="0.0" iyy="0.0" iyz="0.0" izz="0.0"/>
    </inertial>
  </link> <!-- in pybullet, the inertia need to be specified even for dummy links, otherwise it will put an identity inertia and a mass of 1 by default -->
  <joint name="r_forearm_skin_15_fixed_joint" type="fixed">
    <origin xyz="-0.0633786419662 0.027145 -0.00879405455544" rpy="1.80492769741 -0.289783281916 -3.02765891428"/>
    <parent link="r_forearm"/>
    <child link="r_forearm_skin_15"/>
    <dynamics damping="0.1"/>
  </joint>
  <link name="r_forearm_skin_16">
    <inertial>
      <origin rpy="0 0 0" xyz="0 0 0"/>
      <mass value="0"/>
      <inertia ixx="0.0" ixy="0.0" ixz="0.0" iyy="0.0" iyz="0.0" izz="0.0"/>
    </inertial>
  </link> <!-- in pybullet, the inertia need to be specified even for dummy links, otherwise it will put an identity inertia and a mass of 1 by default -->
  <joint name="r_forearm_skin_16_fixed_joint" type="fixed">
    <origin xyz="-0.03792482187 0.030487 0.0206369503605" rpy="1.41280007026 -0.25082462139 -3.06572742343"/>
    <parent link="r_forearm"/>
    <child link="r_forearm_skin_16"/>
    <dynamics damping="0.1"/>
  </joint>
  <link name="r_forearm_skin_17">
    <inertial>
      <origin rpy="0 0 0" xyz="0 0 0"/>
      <mass value="0"/>
      <inertia ixx="0.0" ixy="0.0" ixz="0.0" iyy="0.0" iyz="0.0" izz="0.0"/>
    </inertial>
  </link> <!-- in pybullet, the inertia need to be specified even for dummy links, otherwise it will put an identity inertia and a mass of 1 by default -->
  <joint name="r_forearm_skin_17_fixed_joint" type="fixed">
    <origin xyz="-0.0543170548821 0.027725 0.0303291240179" rpy="1.27223716205 -0.23059304703 -3.03195542837"/>
    <parent link="r_forearm"/>
    <child link="r_forearm_skin_17"/>
    <dynamics damping="0.1"/>
  </joint>
  <link name="r_forearm_skin_19">
    <inertial>
      <origin rpy="0 0 0" xyz="0 0 0"/>
      <mass value="0"/>
      <inertia ixx="0.0" ixy="0.0" ixz="0.0" iyy="0.0" iyz="0.0" izz="0.0"/>
    </inertial>
  </link> <!-- in pybullet, the inertia need to be specified even for dummy links, otherwise it will put an identity inertia and a mass of 1 by default -->
  <joint name="r_forearm_skin_19_fixed_joint" type="fixed">
    <origin xyz="-0.0381266107138 -0.0312941 0.020690605393" rpy="-1.41560888703 -0.252569290226 3.07715217889"/>
    <parent link="r_forearm"/>
    <child link="r_forearm_skin_19"/>
    <dynamics damping="0.1"/>
  </joint>
  <link name="r_forearm_skin_22">
    <inertial>
      <origin rpy="0 0 0" xyz="0 0 0"/>
      <mass value="0"/>
      <inertia ixx="0.0" ixy="0.0" ixz="0.0" iyy="0.0" iyz="0.0" izz="0.0"/>
    </inertial>
  </link> <!-- in pybullet, the inertia need to be specified even for dummy links, otherwise it will put an identity inertia and a mass of 1 by default -->
  <joint name="r_forearm_skin_22_fixed_joint" type="fixed">
    <origin xyz="-0.0544173950421 -0.0287223 0.0306037516609" rpy="-1.2658242728 -0.234328151379 3.04788317971"/>
    <parent link="r_forearm"/>
    <child link="r_forearm_skin_22"/>
    <dynamics damping="0.1"/>
  </joint>
  <link name="r_forearm_skin_24">
    <inertial>
      <origin rpy="0 0 0" xyz="0 0 0"/>
      <mass value="0"/>
      <inertia ixx="0.0" ixy="0.0" ixz="0.0" iyy="0.0" iyz="0.0" izz="0.0"/>
    </inertial>
  </link> <!-- in pybullet, the inertia need to be specified even for dummy links, otherwise it will put an identity inertia and a mass of 1 by default -->
  <joint name="r_forearm_skin_24_fixed_joint" type="fixed">
    <origin xyz="-0.0700345319564 -0.0097164 0.050069108714" rpy="-0.23489327644 -0.0388172993982 3.08676345459"/>
    <parent link="r_forearm"/>
    <child link="r_forearm_skin_24"/>
    <dynamics damping="0.1"/>
  </joint>
  <link name="r_forearm_skin_25">
    <inertial>
      <origin rpy="0 0 0" xyz="0 0 0"/>
      <mass value="0"/>
      <inertia ixx="0.0" ixy="0.0" ixz="0.0" iyy="0.0" iyz="0.0" izz="0.0"/>
    </inertial>
  </link> <!-- in pybullet, the inertia need to be specified even for dummy links, otherwise it will put an identity inertia and a mass of 1 by default -->
  <joint name="r_forearm_skin_25_fixed_joint" type="fixed">
    <origin xyz="-0.0535999216295 -0.0182238 0.0454698125045" rpy="-0.564295527715 -0.136980272197 3.05963182792"/>
    <parent link="r_forearm"/>
    <child link="r_forearm_skin_25"/>
    <dynamics damping="0.1"/>
  </joint>
  <link name="r_forearm_skin_28">
    <inertial>
      <origin rpy="0 0 0" xyz="0 0 0"/>
      <mass value="0"/>
      <inertia ixx="0.0" ixy="0.0" ixz="0.0" iyy="0.0" iyz="0.0" izz="0.0"/>
    </inertial>
  </link> <!-- in pybullet, the inertia need to be specified even for dummy links, otherwise it will put an identity inertia and a mass of 1 by default -->
  <joint name="r_forearm_skin_28_fixed_joint" type="fixed">
    <origin xyz="-0.0535859272148 0.017412 0.045352037397" rpy="0.59077064408 -0.0531607226063 3.10597081167"/>
    <parent link="r_forearm"/>
    <child link="r_forearm_skin_28"/>
    <dynamics damping="0.1"/>
  </joint>
  <link name="r_forearm_skin_29">
    <inertial>
      <origin rpy="0 0 0" xyz="0 0 0"/>
      <mass value="0"/>
      <inertia ixx="0.0" ixy="0.0" ixz="0.0" iyy="0.0" iyz="0.0" izz="0.0"/>
    </inertial>
  </link> <!-- in pybullet, the inertia need to be specified even for dummy links, otherwise it will put an identity inertia and a mass of 1 by default -->
  <joint name="r_forearm_skin_29_fixed_joint" type="fixed">
    <origin xyz="-0.0700355805031 0.008954 0.0500111036233" rpy="0.248630982209 -0.0383136556786 -3.08328999116"/>
    <parent link="r_forearm"/>
    <child link="r_forearm_skin_29"/>
    <dynamics damping="0.1"/>
  </joint>
  <link name="r_forearm_dh_frame">
    <inertial>
      <origin rpy="0 0 0" xyz="0 0 0"/>
      <mass value="0"/>
      <inertia ixx="0.0" ixy="0.0" ixz="0.0" iyy="0.0" iyz="0.0" izz="0.0"/>
    </inertial>
  </link> <!-- in pybullet, the inertia need to be specified even for dummy links, otherwise it will put an identity inertia and a mass of 1 by default -->
  <joint name="r_forearm_dh_frame_fixed_joint" type="fixed">
    <origin xyz="-0.102871102373 7.00000000002e-06 0.0275642213111" rpy="-0.261799319827 0 -1.57079632679"/>
    <parent link="r_forearm"/>
    <child link="r_forearm_dh_frame"/>
    <dynamics damping="0.1"/>
  </joint>
  <link name="r_wrist_1">
    <inertial>
      <origin xyz="0.000986101955547 -0.001176 0.00410132736724" rpy="0 0 0"/>
      <mass value="0.0362615"/>
      <inertia ixx="0.01" ixy="-3.10462e-08" ixz="-9.44554e-07" iyy="0.01" iyz="-1.59685e-07" izz="0.01"/>
    </inertial>
    <visual>
      <origin xyz="0.400392176248 -7.00000000009e-06 -0.104748304516" rpy="0 0 0"/>
      <geometry>
        <mesh filename="meshes/simmechanics/2-5_plus/sim_sea_2-5_r_wrist_pitch_prt-binary.stl" scale="0.001 0.001 0.001"/>
      </geometry>
      <material name="red"/>
    </visual>
    <collision>
      <origin xyz="0.400392176248 -7.00000000009e-06 -0.104748304516" rpy="0 0 0"/>
      <geometry>
        <mesh filename="meshes/simmechanics/2-5_plus/sim_sea_2-5_r_wrist_pitch_prt-binary.stl" scale="0.001 0.001 0.001"/>
      </geometry>
    </collision>
  </link>
  <joint name="r_wrist_pitch" type="revolute">
    <origin xyz="-0.103505208873 7.00000000002e-06 0.0251977029936" rpy="0 0 0"/>
    <axis xyz="0.258818979447 0.0 0.965925843882"/>
    <parent link="r_forearm"/>
    <child link="r_wrist_1"/>
    <limit effort="50000" lower="-1.3962634016" upper="0.436332312999" velocity="50000"/>
    <dynamics damping="1.0" friction="0.0"/>
  </joint>
  <link name="r_hand">
    <inertial>
      <origin xyz="-0.064668163717 0.0056002 0.0226812940918" rpy="0 0 0"/>
      <mass value="0.248289"/>
      <inertia ixx="0.01" ixy="-2.3536e-06" ixz="3.61526e-05" iyy="0.01" iyz="2.07146e-05" izz="0.01"/>
    </inertial>
    <visual>
      <origin xyz="0.399758069749 0.0194929 -0.107114822834" rpy="0 0 0"/>
      <geometry>
        <mesh filename="meshes/simmechanics/2-5_plus/sim_sea_2-5_r_hand_prt-binary.stl" scale="0.001 0.001 0.001"/>
      </geometry>
      <material name="blue"/>
    </visual>
    <collision>
      <origin xyz="0.399758069749 0.0194929 -0.107114822834" rpy="0 0 0"/>
      <geometry>
        <mesh filename="meshes/simmechanics/2-5_plus/sim_sea_2-5_r_hand_prt-binary.stl" scale="0.001 0.001 0.001"/>
      </geometry>
    </collision>
  </link>
  <joint name="r_wrist_yaw" type="revolute">
    <origin xyz="0.000634106499644 -0.0194999 0.00236651831751" rpy="0 0 0"/>
    <axis xyz="2.22044604925e-16 1.0 0.0"/>
    <parent link="r_wrist_1"/>
    <child link="r_hand"/>
    <limit effort="50000" lower="-0.349065850399" upper="0.436332312999" velocity="50000"/>
    <dynamics damping="1.0" friction="0.0"/>
  </joint>
  <link name="r_hand_dh_frame">
    <inertial>
      <origin rpy="0 0 0" xyz="0 0 0"/>
      <mass value="0"/>
      <inertia ixx="0.0" ixy="0.0" ixz="0.0" iyy="0.0" iyz="0.0" izz="0.0"/>
    </inertial>
  </link> <!-- in pybullet, the inertia need to be specified even for dummy links, otherwise it will put an identity inertia and a mass of 1 by default -->
  <joint name="r_hand_dh_frame_fixed_joint" type="fixed">
    <origin xyz="-0.0576542978428 -0.0055568 0.0136938323083" rpy="-1.57079632679 -0.261799319827 3.14159265359"/>
    <parent link="r_hand"/>
    <child link="r_hand_dh_frame"/>
    <dynamics damping="0.1"/>
  </joint>
  <link name="l_shoulder_1">
    <inertial>
      <origin xyz="-0.008985 -3.3e-05 -0.0088998" rpy="0 0 0"/>
      <mass value="0.114882"/>
      <inertia ixx="0.01" ixy="-1.77064e-08" ixz="3.55951e-06" iyy="0.01" iyz="6.57597e-08" izz="0.01"/>
    </inertial>
    <visual>
      <origin xyz="-0.120257482 0 -0.032223" rpy="0 0 0"/>
      <geometry>
        <mesh filename="meshes/simmechanics/2-5_plus/sim_sea_2-5_l_shoulder_1_prt-binary.stl" scale="0.001 0.001 0.001"/>
      </geometry>
      <material name="yellow"/>
    </visual>
    <collision>
      <origin xyz="-0.120257482 0 -0.032223" rpy="0 0 0"/>
      <geometry>
        <mesh filename="meshes/simmechanics/2-5_plus/sim_sea_2-5_l_shoulder_1_prt-binary.stl" scale="0.001 0.001 0.001"/>
      </geometry>
    </collision>
  </link>
  <joint name="l_shoulder_pitch" type="revolute">
    <origin xyz="0.120016000191 0.0928 0.0079693" rpy="0 0 0"/>
    <axis xyz="0.965926 0.0 0.258819"/>
    <parent link="chest"/>
    <child link="l_shoulder_1"/>
    <limit effort="50000" lower="-1.66678943565" upper="0.174532925199" velocity="50000"/>
    <dynamics damping="1.0" friction="0.0"/>
  </joint>
  <link name="l_shoulder_2">
    <inertial>
      <origin xyz="0.0214745951272 0.000268957899687 -0.0194107361535" rpy="0 0 0"/>
      <mass value="0.238162"/>
      <inertia ixx="0.01" ixy="1.19701e-07" ixz="-1.29687e-05" iyy="0.01" iyz="1.20112e-06" izz="0.01"/>
    </inertial>
    <visual>
      <origin xyz="-0.106586691581 1.10800934344e-07 -0.040743380771" rpy="0 0 0"/>
      <geometry>
        <mesh filename="meshes/simmechanics/2-5_plus/sim_sea_2-5_l_shoulder_2_prt-binary.stl" scale="0.001 0.001 0.001"/>
      </geometry>
      <material name="pink"/>
    </visual>
    <collision>
      <origin xyz="-0.106586691581 1.10800934344e-07 -0.040743380771" rpy="0 0 0"/>
      <geometry>
        <mesh filename="meshes/simmechanics/2-5_plus/sim_sea_2-5_l_shoulder_2_prt-binary.stl" scale="0.001 0.001 0.001"/>
      </geometry>
    </collision>
  </link>
  <joint name="l_shoulder_roll" type="revolute">
    <origin xyz="-0.013671 0 0.0085204" rpy="0.270597317916 0.252680177542 -1.50155688559"/>
    <axis xyz="-0.258819 2.77555756156e-17 0.965926"/>
    <parent link="l_shoulder_1"/>
    <child link="l_shoulder_2"/>
    <limit effort="50000" lower="0.0" upper="2.80648943721" velocity="50000"/>
    <dynamics damping="1.0" friction="0.0"/>
  </joint>
  <link name="l_shoulder_3">
    <inertial>
      <origin xyz="0.026798412222 -1.6e-05 0.0146956806177" rpy="0 0 0"/>
      <mass value="0.35913"/>
      <inertia ixx="0.01" ixy="-2.22441e-07" ixz="-4.95846e-05" iyy="0.01" iyz="1.07538e-07" izz="0.01"/>
    </inertial>
    <visual>
      <origin xyz="-0.131901037685 0 -0.0353427669194" rpy="0 0 0"/>
      <geometry>
        <mesh filename="meshes/simmechanics/2-5_plus/sim_sea_2-5_l_upper_arm_prt-binary.stl" scale="0.001 0.001 0.001"/>
      </geometry>
      <material name="cyan"/>
    </visual>
    <collision>
      <origin xyz="-0.131901037685 0 -0.0353427669194" rpy="0 0 0"/>
      <geometry>
        <mesh filename="meshes/simmechanics/2-5_plus/sim_sea_2-5_l_upper_arm_prt-binary.stl" scale="0.001 0.001 0.001"/>
      </geometry>
    </collision>
  </link>
  <joint name="l_shoulder_yaw" type="revolute">
    <origin xyz="0.0253143468312 1.11636438205e-07 -0.00540061656265" rpy="-0.252689546175 -0.0085186183214 -0.067039889142"/>
    <axis xyz="0.965925843882 2.22044604925e-16 0.258818979447"/>
    <parent link="l_shoulder_2"/>
    <child link="l_shoulder_3"/>
    <limit effort="50000" lower="-0.645771823238" upper="1.3962634016" velocity="50000"/>
    <dynamics damping="1.0" friction="0.0"/>
  </joint>
  <link name="l_upper_arm">
    <inertial>
      <origin xyz="-0.006121 -0.000189 0.0293684" rpy="0 -1.30899700697 -3.14159265359"/>
      <mass value="0.746799"/>
      <inertia ixx="0.000509731" ixy="-6.90767e-07" ixz="1.20048e-05" iyy="0.00067086" iyz="3.11833e-06" izz="0.000601202"/>
    </inertial>
    <visual>
      <origin xyz="-0.015 0 -0.1933" rpy="0 -1.30899700697 -3.14159265359"/>
      <geometry>
        <mesh filename="meshes/simmechanics/2-5_plus/sim_sea_2-5_l_elbow_prt-binary.stl" scale="0.001 0.001 0.001"/>
      </geometry>
      <material name="green"/>
    </visual>
    <collision>
      <origin xyz="-0.015 0 -0.1933" rpy="0 -1.30899700697 -3.14159265359"/>
      <geometry>
        <mesh filename="meshes/simmechanics/2-5_plus/sim_sea_2-5_l_elbow_prt-binary.stl" scale="0.001 0.001 0.001"/>
      </geometry>
    </collision>
  </link>
  <joint name="l_arm_ft_sensor" type="fixed">
    <origin xyz="0.0509301432452 0 0.0291758294659" rpy="0 -1.30899700697 3.14159265359"/>
    <parent link="l_shoulder_3"/>
    <child link="l_upper_arm"/>
    <dynamics damping="0.1"/>
  </joint>
  <link name="l_elbow_1">
    <inertial>
      <origin xyz="0.00673912932843 0.0303019 -0.00465769236154" rpy="0 0 0"/>
      <mass value="0.267903"/>
      <inertia ixx="0.01" ixy="-7.37159e-06" ixz="1.04505e-05" iyy="0.01" iyz="3.9319e-06" izz="0.01"/>
    </inertial>
    <visual>
      <origin xyz="-0.259390463317 0.0339999 -0.0850325886962" rpy="0 0 0"/>
      <geometry>
        <mesh filename="meshes/simmechanics/2-5_plus/sim_sea_2-5_l_elbow_prosup_prt-binary.stl" scale="0.001 0.001 0.001"/>
      </geometry>
      <material name="white"/>
    </visual>
    <collision>
      <origin xyz="-0.259390463317 0.0339999 -0.0850325886962" rpy="0 0 0"/>
      <geometry>
        <mesh filename="meshes/simmechanics/2-5_plus/sim_sea_2-5_l_elbow_prosup_prt-binary.stl" scale="0.001 0.001 0.001"/>
      </geometry>
    </collision>
  </link>
  <joint name="l_elbow" type="revolute">
    <origin xyz="0 0.0339999 0.07926" rpy="0 -1.30899700697 -3.14159265359"/>
    <axis xyz="2.22044604925e-16 -1.0 0.0"/>
    <parent link="l_upper_arm"/>
    <child link="l_elbow_1"/>
    <limit effort="50000" lower="0.261799387799" upper="1.85004900711" velocity="50000"/>
    <dynamics damping="1.0" friction="0.0"/>
  </joint>
  <link name="l_forearm">
    <inertial>
      <origin xyz="0.0404511828823 -0.000686 0.00532363214379" rpy="0 0 0"/>
      <mass value="0.636185"/>
      <inertia ixx="0.000371447" ixy="4.34562e-06" ixz="-0.000105871" iyy="0.000674229" iyz="4.05222e-06" izz="0.000557115"/>
    </inertial>
    <visual>
      <origin xyz="-0.296886967375 0 -0.0795506015227" rpy="0 0 0"/>
      <geometry>
        <mesh filename="meshes/simmechanics/2-5_plus/sim_sea_2-5_l_forearm_prt-binary.stl" scale="0.001 0.001 0.001"/>
      </geometry>
      <material name="dblue"/>
    </visual>
    <collision>
      <origin xyz="-0.296886967375 0 -0.0795506015227" rpy="0 0 0"/>
      <geometry>
        <mesh filename="meshes/simmechanics/2-5_plus/sim_sea_2-5_l_forearm_prt-binary.stl" scale="0.001 0.001 0.001"/>
      </geometry>
    </collision>
  </link>
  <joint name="l_wrist_prosup" type="revolute">
    <origin xyz="0.0384624299027 0.0339999 -0.00522316819403" rpy="0 0 0"/>
    <axis xyz="0.965925843882 2.22044604925e-16 0.258818979447"/>
    <parent link="l_elbow_1"/>
    <child link="l_forearm"/>
    <limit effort="50000" lower="-1.0471975512" upper="1.0471975512" velocity="50000"/>
    <dynamics damping="1.0" friction="0.0"/>
  </joint>
  <link name="l_forearm_skin_0">
    <inertial>
      <origin rpy="0 0 0" xyz="0 0 0"/>
      <mass value="0"/>
      <inertia ixx="0.0" ixy="0.0" ixz="0.0" iyy="0.0" iyz="0.0" izz="0.0"/>
    </inertial>
  </link> <!-- in pybullet, the inertia need to be specified even for dummy links, otherwise it will put an identity inertia and a mass of 1 by default -->
  <joint name="l_forearm_skin_0_fixed_joint" type="fixed">
    <origin xyz="0.0454493286618 -0.0323169 -0.00628656037901" rpy="1.69181522292 -0.271026744341 0.0727882713185"/>
    <parent link="l_forearm"/>
    <child link="l_forearm_skin_0"/>
    <dynamics damping="0.1"/>
  </joint>
  <link name="l_forearm_skin_1">
    <inertial>
      <origin rpy="0 0 0" xyz="0 0 0"/>
      <mass value="0"/>
      <inertia ixx="0.0" ixy="0.0" ixz="0.0" iyy="0.0" iyz="0.0" izz="0.0"/>
    </inertial>
  </link> <!-- in pybullet, the inertia need to be specified even for dummy links, otherwise it will put an identity inertia and a mass of 1 by default -->
  <joint name="l_forearm_skin_1_fixed_joint" type="fixed">
    <origin xyz="0.0333728935826 -0.0310662 -0.0198456867711" rpy="1.86694023278 -0.274442533764 0.0421228737473"/>
    <parent link="l_forearm"/>
    <child link="l_forearm_skin_1"/>
    <dynamics damping="0.1"/>
  </joint>
  <link name="l_forearm_skin_2">
    <inertial>
      <origin rpy="0 0 0" xyz="0 0 0"/>
      <mass value="0"/>
      <inertia ixx="0.0" ixy="0.0" ixz="0.0" iyy="0.0" iyz="0.0" izz="0.0"/>
    </inertial>
  </link> <!-- in pybullet, the inertia need to be specified even for dummy links, otherwise it will put an identity inertia and a mass of 1 by default -->
  <joint name="l_forearm_skin_2_fixed_joint" type="fixed">
    <origin xyz="0.0146988929852 -0.0335184 -0.0160117338371" rpy="1.72847287019 -0.264015219116 0.0142600467197"/>
    <parent link="l_forearm"/>
    <child link="l_forearm_skin_2"/>
    <dynamics damping="0.1"/>
  </joint>
  <link name="l_forearm_skin_3">
    <inertial>
      <origin rpy="0 0 0" xyz="0 0 0"/>
      <mass value="0"/>
      <inertia ixx="0.0" ixy="0.0" ixz="0.0" iyy="0.0" iyz="0.0" izz="0.0"/>
    </inertial>
  </link> <!-- in pybullet, the inertia need to be specified even for dummy links, otherwise it will put an identity inertia and a mass of 1 by default -->
  <joint name="l_forearm_skin_3_fixed_joint" type="fixed">
    <origin xyz="0.045567293622 0.028651 -0.00633000929351" rpy="-1.69487280859 -0.269757727104 -0.061995217851"/>
    <parent link="l_forearm"/>
    <child link="l_forearm_skin_3"/>
    <dynamics damping="0.1"/>
  </joint>
  <link name="l_forearm_skin_4">
    <inertial>
      <origin rpy="0 0 0" xyz="0 0 0"/>
      <mass value="0"/>
      <inertia ixx="0.0" ixy="0.0" ixz="0.0" iyy="0.0" iyz="0.0" izz="0.0"/>
    </inertial>
  </link> <!-- in pybullet, the inertia need to be specified even for dummy links, otherwise it will put an identity inertia and a mass of 1 by default -->
  <joint name="l_forearm_skin_4_fixed_joint" type="fixed">
    <origin xyz="0.0635326332996 0.025877 -0.00899784258066" rpy="-1.81747870108 -0.287406884885 -0.0998316152826"/>
    <parent link="l_forearm"/>
    <child link="l_forearm_skin_4"/>
    <dynamics damping="0.1"/>
  </joint>
  <link name="l_forearm_skin_5">
    <inertial>
      <origin rpy="0 0 0" xyz="0 0 0"/>
      <mass value="0"/>
      <inertia ixx="0.0" ixy="0.0" ixz="0.0" iyy="0.0" iyz="0.0" izz="0.0"/>
    </inertial>
  </link> <!-- in pybullet, the inertia need to be specified even for dummy links, otherwise it will put an identity inertia and a mass of 1 by default -->
  <joint name="l_forearm_skin_5_fixed_joint" type="fixed">
    <origin xyz="0.0688211941968 0.015709 -0.0231133361791" rpy="-2.5410475806 -0.385627260642 -0.0867227569203"/>
    <parent link="l_forearm"/>
    <child link="l_forearm_skin_5"/>
    <dynamics damping="0.1"/>
  </joint>
  <link name="l_forearm_skin_6">
    <inertial>
      <origin rpy="0 0 0" xyz="0 0 0"/>
      <mass value="0"/>
      <inertia ixx="0.0" ixy="0.0" ixz="0.0" iyy="0.0" iyz="0.0" izz="0.0"/>
    </inertial>
  </link> <!-- in pybullet, the inertia need to be specified even for dummy links, otherwise it will put an identity inertia and a mass of 1 by default -->
  <joint name="l_forearm_skin_6_fixed_joint" type="fixed">
    <origin xyz="0.0333948436255 0.027308 -0.0198325583433" rpy="-1.86628164653 -0.272886336181 -0.0371068033783"/>
    <parent link="l_forearm"/>
    <child link="l_forearm_skin_6"/>
    <dynamics damping="0.1"/>
  </joint>
  <link name="l_forearm_skin_7">
    <inertial>
      <origin rpy="0 0 0" xyz="0 0 0"/>
      <mass value="0"/>
      <inertia ixx="0.0" ixy="0.0" ixz="0.0" iyy="0.0" iyz="0.0" izz="0.0"/>
    </inertial>
  </link> <!-- in pybullet, the inertia need to be specified even for dummy links, otherwise it will put an identity inertia and a mass of 1 by default -->
  <joint name="l_forearm_skin_7_fixed_joint" type="fixed">
    <origin xyz="0.0147224260074 0.029702 -0.0159326482703" rpy="-1.72564640857 -0.263992900722 -0.0143801109253"/>
    <parent link="l_forearm"/>
    <child link="l_forearm_skin_7"/>
    <dynamics damping="0.1"/>
  </joint>
  <link name="l_forearm_skin_8">
    <inertial>
      <origin rpy="0 0 0" xyz="0 0 0"/>
      <mass value="0"/>
      <inertia ixx="0.0" ixy="0.0" ixz="0.0" iyy="0.0" iyz="0.0" izz="0.0"/>
    </inertial>
  </link> <!-- in pybullet, the inertia need to be specified even for dummy links, otherwise it will put an identity inertia and a mass of 1 by default -->
  <joint name="l_forearm_skin_8_fixed_joint" type="fixed">
    <origin xyz="0.0228528628554 0.007546 -0.041885146375" rpy="-2.94801979137 -0.270605090512 -0.00178708074348"/>
    <parent link="l_forearm"/>
    <child link="l_forearm_skin_8"/>
    <dynamics damping="0.1"/>
  </joint>
  <link name="l_forearm_skin_9">
    <inertial>
      <origin rpy="0 0 0" xyz="0 0 0"/>
      <mass value="0"/>
      <inertia ixx="0.0" ixy="0.0" ixz="0.0" iyy="0.0" iyz="0.0" izz="0.0"/>
    </inertial>
  </link> <!-- in pybullet, the inertia need to be specified even for dummy links, otherwise it will put an identity inertia and a mass of 1 by default -->
  <joint name="l_forearm_skin_9_fixed_joint" type="fixed">
    <origin xyz="0.0376032734683 0.016715 -0.0340163371186" rpy="-2.58406517708 -0.2933217196 -0.0203085796276"/>
    <parent link="l_forearm"/>
    <child link="l_forearm_skin_9"/>
    <dynamics damping="0.1"/>
  </joint>
  <link name="l_forearm_skin_10">
    <inertial>
      <origin rpy="0 0 0" xyz="0 0 0"/>
      <mass value="0"/>
      <inertia ixx="0.0" ixy="0.0" ixz="0.0" iyy="0.0" iyz="0.0" izz="0.0"/>
    </inertial>
  </link> <!-- in pybullet, the inertia need to be specified even for dummy links, otherwise it will put an identity inertia and a mass of 1 by default -->
  <joint name="l_forearm_skin_10_fixed_joint" type="fixed">
    <origin xyz="0.0542285210888 0.007546 -0.0321469082866" rpy="-2.94123313406 -0.328304471922 -0.0139662781936"/>
    <parent link="l_forearm"/>
    <child link="l_forearm_skin_10"/>
    <dynamics damping="0.1"/>
  </joint>
  <link name="l_forearm_skin_11">
    <inertial>
      <origin rpy="0 0 0" xyz="0 0 0"/>
      <mass value="0"/>
      <inertia ixx="0.0" ixy="0.0" ixz="0.0" iyy="0.0" iyz="0.0" izz="0.0"/>
    </inertial>
  </link> <!-- in pybullet, the inertia need to be specified even for dummy links, otherwise it will put an identity inertia and a mass of 1 by default -->
  <joint name="l_forearm_skin_11_fixed_joint" type="fixed">
    <origin xyz="0.0542240912024 -0.0112832 -0.0321431259452" rpy="2.93929835957 -0.329101389745 0.0142734891292"/>
    <parent link="l_forearm"/>
    <child link="l_forearm_skin_11"/>
    <dynamics damping="0.1"/>
  </joint>
  <link name="l_forearm_skin_12">
    <inertial>
      <origin rpy="0 0 0" xyz="0 0 0"/>
      <mass value="0"/>
      <inertia ixx="0.0" ixy="0.0" ixz="0.0" iyy="0.0" iyz="0.0" izz="0.0"/>
    </inertial>
  </link> <!-- in pybullet, the inertia need to be specified even for dummy links, otherwise it will put an identity inertia and a mass of 1 by default -->
  <joint name="l_forearm_skin_12_fixed_joint" type="fixed">
    <origin xyz="0.0375994633868 -0.0204556 -0.0340191179961" rpy="2.58303505964 -0.29483050207 0.021326850448"/>
    <parent link="l_forearm"/>
    <child link="l_forearm_skin_12"/>
    <dynamics damping="0.1"/>
  </joint>
  <link name="l_forearm_skin_13">
    <inertial>
      <origin rpy="0 0 0" xyz="0 0 0"/>
      <mass value="0"/>
      <inertia ixx="0.0" ixy="0.0" ixz="0.0" iyy="0.0" iyz="0.0" izz="0.0"/>
    </inertial>
  </link> <!-- in pybullet, the inertia need to be specified even for dummy links, otherwise it will put an identity inertia and a mass of 1 by default -->
  <joint name="l_forearm_skin_13_fixed_joint" type="fixed">
    <origin xyz="0.0228550868405 -0.0112878 -0.0418919009209" rpy="2.94896679198 -0.270583947189 0.00177385006765"/>
    <parent link="l_forearm"/>
    <child link="l_forearm_skin_13"/>
    <dynamics damping="0.1"/>
  </joint>
  <link name="l_forearm_skin_14">
    <inertial>
      <origin rpy="0 0 0" xyz="0 0 0"/>
      <mass value="0"/>
      <inertia ixx="0.0" ixy="0.0" ixz="0.0" iyy="0.0" iyz="0.0" izz="0.0"/>
    </inertial>
  </link> <!-- in pybullet, the inertia need to be specified even for dummy links, otherwise it will put an identity inertia and a mass of 1 by default -->
  <joint name="l_forearm_skin_14_fixed_joint" type="fixed">
    <origin xyz="0.0687703276364 -0.0193999 -0.0230239558511" rpy="2.52462250363 -0.387794511771 0.0912924111683"/>
    <parent link="l_forearm"/>
    <child link="l_forearm_skin_14"/>
    <dynamics damping="0.1"/>
  </joint>
  <link name="l_forearm_skin_15">
    <inertial>
      <origin rpy="0 0 0" xyz="0 0 0"/>
      <mass value="0"/>
      <inertia ixx="0.0" ixy="0.0" ixz="0.0" iyy="0.0" iyz="0.0" izz="0.0"/>
    </inertial>
  </link> <!-- in pybullet, the inertia need to be specified even for dummy links, otherwise it will put an identity inertia and a mass of 1 by default -->
  <joint name="l_forearm_skin_15_fixed_joint" type="fixed">
    <origin xyz="0.0633786419662 -0.0293843 -0.00879405455544" rpy="1.80492769741 -0.289783281916 0.113933739306"/>
    <parent link="l_forearm"/>
    <child link="l_forearm_skin_15"/>
    <dynamics damping="0.1"/>
  </joint>
  <link name="l_forearm_skin_16">
    <inertial>
      <origin rpy="0 0 0" xyz="0 0 0"/>
      <mass value="0"/>
      <inertia ixx="0.0" ixy="0.0" ixz="0.0" iyy="0.0" iyz="0.0" izz="0.0"/>
    </inertial>
  </link> <!-- in pybullet, the inertia need to be specified even for dummy links, otherwise it will put an identity inertia and a mass of 1 by default -->
  <joint name="l_forearm_skin_16_fixed_joint" type="fixed">
    <origin xyz="0.03792482187 -0.0327268 0.0206369503605" rpy="1.41280007026 -0.25082462139 0.0758652301584"/>
    <parent link="l_forearm"/>
    <child link="l_forearm_skin_16"/>
    <dynamics damping="0.1"/>
  </joint>
  <link name="l_forearm_skin_17">
    <inertial>
      <origin rpy="0 0 0" xyz="0 0 0"/>
      <mass value="0"/>
      <inertia ixx="0.0" ixy="0.0" ixz="0.0" iyy="0.0" iyz="0.0" izz="0.0"/>
    </inertial>
  </link> <!-- in pybullet, the inertia need to be specified even for dummy links, otherwise it will put an identity inertia and a mass of 1 by default -->
  <joint name="l_forearm_skin_17_fixed_joint" type="fixed">
    <origin xyz="0.0543170548821 -0.0299646 0.0303291240179" rpy="1.27223716205 -0.23059304703 0.109637225219"/>
    <parent link="l_forearm"/>
    <child link="l_forearm_skin_17"/>
    <dynamics damping="0.1"/>
  </joint>
  <link name="l_forearm_skin_19">
    <inertial>
      <origin rpy="0 0 0" xyz="0 0 0"/>
      <mass value="0"/>
      <inertia ixx="0.0" ixy="0.0" ixz="0.0" iyy="0.0" iyz="0.0" izz="0.0"/>
    </inertial>
  </link> <!-- in pybullet, the inertia need to be specified even for dummy links, otherwise it will put an identity inertia and a mass of 1 by default -->
  <joint name="l_forearm_skin_19_fixed_joint" type="fixed">
    <origin xyz="0.0381266107138 0.029054 0.020690605393" rpy="-1.41560888703 -0.252569290226 -0.0644404747027"/>
    <parent link="l_forearm"/>
    <child link="l_forearm_skin_19"/>
    <dynamics damping="0.1"/>
  </joint>
  <link name="l_forearm_skin_22">
    <inertial>
      <origin rpy="0 0 0" xyz="0 0 0"/>
      <mass value="0"/>
      <inertia ixx="0.0" ixy="0.0" ixz="0.0" iyy="0.0" iyz="0.0" izz="0.0"/>
    </inertial>
  </link> <!-- in pybullet, the inertia need to be specified even for dummy links, otherwise it will put an identity inertia and a mass of 1 by default -->
  <joint name="l_forearm_skin_22_fixed_joint" type="fixed">
    <origin xyz="0.0544173950421 0.026483 0.0306037516609" rpy="-1.2658242728 -0.234328151379 -0.0937094738802"/>
    <parent link="l_forearm"/>
    <child link="l_forearm_skin_22"/>
    <dynamics damping="0.1"/>
  </joint>
  <link name="l_forearm_skin_24">
    <inertial>
      <origin rpy="0 0 0" xyz="0 0 0"/>
      <mass value="0"/>
      <inertia ixx="0.0" ixy="0.0" ixz="0.0" iyy="0.0" iyz="0.0" izz="0.0"/>
    </inertial>
  </link> <!-- in pybullet, the inertia need to be specified even for dummy links, otherwise it will put an identity inertia and a mass of 1 by default -->
  <joint name="l_forearm_skin_24_fixed_joint" type="fixed">
    <origin xyz="0.0700345319564 0.007477 0.050069108714" rpy="-0.23489327644 -0.0388172993982 -0.0548291989999"/>
    <parent link="l_forearm"/>
    <child link="l_forearm_skin_24"/>
    <dynamics damping="0.1"/>
  </joint>
  <link name="l_forearm_skin_25">
    <inertial>
      <origin rpy="0 0 0" xyz="0 0 0"/>
      <mass value="0"/>
      <inertia ixx="0.0" ixy="0.0" ixz="0.0" iyy="0.0" iyz="0.0" izz="0.0"/>
    </inertial>
  </link> <!-- in pybullet, the inertia need to be specified even for dummy links, otherwise it will put an identity inertia and a mass of 1 by default -->
  <joint name="l_forearm_skin_25_fixed_joint" type="fixed">
    <origin xyz="0.0535999216295 0.015984 0.0454698125045" rpy="-0.564295527715 -0.136980272197 -0.0819608256656"/>
    <parent link="l_forearm"/>
    <child link="l_forearm_skin_25"/>
    <dynamics damping="0.1"/>
  </joint>
  <link name="l_forearm_skin_28">
    <inertial>
      <origin rpy="0 0 0" xyz="0 0 0"/>
      <mass value="0"/>
      <inertia ixx="0.0" ixy="0.0" ixz="0.0" iyy="0.0" iyz="0.0" izz="0.0"/>
    </inertial>
  </link> <!-- in pybullet, the inertia need to be specified even for dummy links, otherwise it will put an identity inertia and a mass of 1 by default -->
  <joint name="l_forearm_skin_28_fixed_joint" type="fixed">
    <origin xyz="0.0535859272148 -0.0196522 0.045352037397" rpy="0.579311106949 -0.133994306778 0.0867597858312"/>
    <parent link="l_forearm"/>
    <child link="l_forearm_skin_28"/>
    <dynamics damping="0.1"/>
  </joint>
  <link name="l_forearm_skin_29">
    <inertial>
      <origin rpy="0 0 0" xyz="0 0 0"/>
      <mass value="0"/>
      <inertia ixx="0.0" ixy="0.0" ixz="0.0" iyy="0.0" iyz="0.0" izz="0.0"/>
    </inertial>
  </link> <!-- in pybullet, the inertia need to be specified even for dummy links, otherwise it will put an identity inertia and a mass of 1 by default -->
  <joint name="l_forearm_skin_29_fixed_joint" type="fixed">
    <origin xyz="0.0700355805031 -0.0111936 0.0500111036233" rpy="0.248630982209 -0.0383136556786 0.0583026624266"/>
    <parent link="l_forearm"/>
    <child link="l_forearm_skin_29"/>
    <dynamics damping="0.1"/>
  </joint>
  <link name="l_forearm_dh_frame">
    <inertial>
      <origin rpy="0 0 0" xyz="0 0 0"/>
      <mass value="0"/>
      <inertia ixx="0.0" ixy="0.0" ixz="0.0" iyy="0.0" iyz="0.0" izz="0.0"/>
    </inertial>
  </link> <!-- in pybullet, the inertia need to be specified even for dummy links, otherwise it will put an identity inertia and a mass of 1 by default -->
  <joint name="l_forearm_dh_frame_fixed_joint" type="fixed">
    <origin xyz="0.102871102373 7.00000000002e-06 0.0275642213111" rpy="2.87979333376 0 1.57079632679"/>
    <parent link="l_forearm"/>
    <child link="l_forearm_dh_frame"/>
    <dynamics damping="0.1"/>
  </joint>
  <link name="l_wrist_1">
    <inertial>
      <origin xyz="-0.000981313804428 -0.001178 0.00408345773913" rpy="0 0 0"/>
      <mass value="0.0362152"/>
      <inertia ixx="0.01" ixy="3.08362e-08" ixz="9.42153e-07" iyy="0.01" iyz="-1.58924e-07" izz="0.01"/>
    </inertial>
    <visual>
      <origin xyz="-0.400314530555 -7.00000000009e-06 -0.105038082269" rpy="0 0 0"/>
      <geometry>
        <mesh filename="meshes/simmechanics/2-5_plus/sim_sea_2-5_l_wrist_pitch_prt-binary.stl" scale="0.001 0.001 0.001"/>
      </geometry>
      <material name="dgreen"/>
    </visual>
    <collision>
      <origin xyz="-0.400314530555 -7.00000000009e-06 -0.105038082269" rpy="0 0 0"/>
      <geometry>
        <mesh filename="meshes/simmechanics/2-5_plus/sim_sea_2-5_l_wrist_pitch_prt-binary.stl" scale="0.001 0.001 0.001"/>
      </geometry>
    </collision>
  </link>
  <joint name="l_wrist_pitch" type="revolute">
    <origin xyz="0.103427563179 7.00000000002e-06 0.0254874807467" rpy="0 0 0"/>
    <axis xyz="0.258818979447 0.0 -0.965925843882"/>
    <parent link="l_forearm"/>
    <child link="l_wrist_1"/>
    <limit effort="50000" lower="-1.3962634016" upper="0.436332312999" velocity="50000"/>
    <dynamics damping="1.0" friction="0.0"/>
  </joint>
  <link name="l_hand">
    <inertial>
      <origin xyz="0.0647680204057 0.0056304 0.0226602208449" rpy="0 0 0"/>
      <mass value="0.247806"/>
      <inertia ixx="0.01" ixy="2.96453e-06" ixz="-3.68906e-05" iyy="0.01" iyz="2.06885e-05" izz="0.01"/>
    </inertial>
    <visual>
      <origin xyz="-0.399680424055 0.0194929 -0.107404600587" rpy="0 0 0"/>
      <geometry>
        <mesh filename="meshes/simmechanics/2-5_plus/sim_sea_2-5_l_hand_prt-binary.stl" scale="0.001 0.001 0.001"/>
      </geometry>
      <material name="gray"/>
    </visual>
    <collision>
      <origin xyz="-0.399680424055 0.0194929 -0.107404600587" rpy="0 0 0"/>
      <geometry>
        <mesh filename="meshes/simmechanics/2-5_plus/sim_sea_2-5_l_hand_prt-binary.stl" scale="0.001 0.001 0.001"/>
      </geometry>
    </collision>
  </link>
  <joint name="l_wrist_yaw" type="revolute">
    <origin xyz="-0.000634106499644 -0.0194999 0.00236651831751" rpy="0 0 0"/>
    <axis xyz="-2.22044604925e-16 1.0 0.0"/>
    <parent link="l_wrist_1"/>
    <child link="l_hand"/>
    <limit effort="50000" lower="-0.349065850399" upper="0.436332312999" velocity="50000"/>
    <dynamics damping="1.0" friction="0.0"/>
  </joint>
  <link name="l_hand_dh_frame">
    <inertial>
      <origin rpy="0 0 0" xyz="0 0 0"/>
      <mass value="0"/>
      <inertia ixx="0.0" ixy="0.0" ixz="0.0" iyy="0.0" iyz="0.0" izz="0.0"/>
    </inertial>
  </link> <!-- in pybullet, the inertia need to be specified even for dummy links, otherwise it will put an identity inertia and a mass of 1 by default -->
  <joint name="l_hand_dh_frame_fixed_joint" type="fixed">
    <origin xyz="0.0576542978428 -0.0055568 0.0136938323083" rpy="-1.57079632679 -0.261799319827 0"/>
    <parent link="l_hand"/>
    <child link="l_hand_dh_frame"/>
    <dynamics damping="0.1"/>
  </joint>
  <link name="neck_1">
    <inertial>
      <origin xyz="0.0143705608 0.006567 -0.0063842" rpy="0 0 0"/>
      <mass value="0.125793"/>
      <inertia ixx="0.01" ixy="8.09156e-08" ixz="-3.74998e-08" iyy="0.01" iyz="9.39717e-06" izz="0.01"/>
    </inertial>
    <visual>
      <origin xyz="0.0142999998093 -0.079997 -0.0295008" rpy="0 0 0"/>
      <geometry>
        <mesh filename="meshes/simmechanics/2-5_plus/sim_sea_2-5_neck_1_prt-binary.stl" scale="0.001 0.001 0.001"/>
      </geometry>
      <material name="green"/>
    </visual>
    <collision>
      <origin xyz="0.0142999998093 -0.079997 -0.0295008" rpy="0 0 0"/>
      <geometry>
        <mesh filename="meshes/simmechanics/2-5_plus/sim_sea_2-5_neck_1_prt-binary.stl" scale="0.001 0.001 0.001"/>
      </geometry>
    </collision>
  </link>
  <joint name="neck_pitch" type="revolute">
    <origin xyz="-0.0142999998093 0.172797 0.0053118" rpy="0 0 0"/>
    <axis xyz="-1.0 0.0 0.0"/>
    <parent link="chest"/>
    <child link="neck_1"/>
    <limit effort="50000" lower="-0.698131700798" upper="0.383972435439" velocity="50000"/>
    <dynamics damping="1.0" friction="0.0"/>
  </joint>
  <link name="neck_2">
    <inertial>
      <origin xyz="-8.8573009265e-05 0.035225 -0.01954527" rpy="0 0 0"/>
      <mass value="0.177087"/>
      <inertia ixx="0.01" ixy="-5.25591e-07" ixz="4.68307e-07" iyy="0.01" iyz="9.81476e-06" izz="0.01"/>
    </inertial>
    <visual>
      <origin xyz="0 -0.089497 -0.05030077" rpy="0 0 0"/>
      <geometry>
        <mesh filename="meshes/simmechanics/2-5_plus/sim_sea_2-5_neck_2_prt-binary.stl" scale="0.001 0.001 0.001"/>
      </geometry>
      <material name="black"/>
    </visual>
    <collision>
      <origin xyz="0 -0.089497 -0.05030077" rpy="0 0 0"/>
      <geometry>
        <mesh filename="meshes/simmechanics/2-5_plus/sim_sea_2-5_neck_2_prt-binary.stl" scale="0.001 0.001 0.001"/>
      </geometry>
    </collision>
  </link>
  <joint name="neck_roll" type="revolute">
    <origin xyz="0.0142999998093 0.0095 0.02079997" rpy="0 0 0"/>
    <axis xyz="0.0 0.0 1.0"/>
    <parent link="neck_1"/>
    <child link="neck_2"/>
    <limit effort="50000" lower="-0.349065850399" upper="0.349065850399" velocity="50000"/>
    <dynamics damping="1.0" friction="0.0"/>
  </joint>
  <link name="head">
    <inertial>
      <origin xyz="-0.000574157809265 0.113511 -0.0075392" rpy="0 0 0"/>
      <mass value="1.50691"/>
      <inertia ixx="0.00680478" ixy="-1.60267e-05" ixz="7.28166e-05" iyy="0.00634736" iyz="0.000292091" izz="0.00478116"/>
    </inertial>
    <visual>
      <origin xyz="0 -0.067153 -0.0295008" rpy="0 0 0"/>
      <geometry>
        <mesh filename="meshes/simmechanics/2-5_plus/sim_sea_2-5_head_prt-binary.stl" scale="0.001 0.001 0.001"/>
      </geometry>
      <material name="red"/>
    </visual>
    <collision>
      <origin xyz="0 -0.067153 -0.0295008" rpy="0 0 0"/>
      <geometry>
        <mesh filename="meshes/simmechanics/2-5_plus/sim_sea_2-5_head_prt-binary.stl" scale="0.001 0.001 0.001"/>
      </geometry>
    </collision>
  </link>
  <joint name="neck_yaw" type="revolute">
    <origin xyz="0 -0.022344 -0.02079997" rpy="0 0 0"/>
    <axis xyz="0.0 1.0 0.0"/>
    <parent link="neck_2"/>
    <child link="head"/>
    <limit effort="50000" lower="-0.872664625997" upper="0.872664625997" velocity="50000"/>
    <dynamics damping="1.0" friction="0.0"/>
  </joint>
  <link name="imu_frame">
    <inertial>
      <origin rpy="0 0 0" xyz="0 0 0"/>
      <mass value="0"/>
      <inertia ixx="0.0" ixy="0.0" ixz="0.0" iyy="0.0" iyz="0.0" izz="0.0"/>
    </inertial>
  </link> <!-- in pybullet, the inertia need to be specified even for dummy links, otherwise it will put an identity inertia and a mass of 1 by default -->
  <joint name="imu_frame_fixed_joint" type="fixed">
    <origin xyz="0.00950000019074 0.133444 0.0093" rpy="-1.57079632679 1.57079632679 0"/>
    <parent link="head"/>
    <child link="imu_frame"/>
    <dynamics damping="0.1"/>
  </joint>
  <!--link name="base_link"/>
  <joint name="base_fixed_joint" type="fixed">
  <origin xyz="0 0 0" rpy="0 -0 0"/>
  <axis xyz="0 0 0"/>
  <parent link="base_link"/>
  <child link="root_link"/>
</joint-->
  <link name="l_foot_dh_frame">
    <inertial>
      <origin rpy="0 0 0" xyz="0 0 0"/>
      <mass value="0"/>
      <inertia ixx="0.0" ixy="0.0" ixz="0.0" iyy="0.0" iyz="0.0" izz="0.0"/>
    </inertial>
  </link> <!-- in pybullet, the inertia need to be specified even for dummy links, otherwise it will put an identity inertia and a mass of 1 by default -->
  <joint name="l_foot_dh_frame_fixed_joint" type="fixed">
  <origin xyz="0.0 0 0.004" rpy="0 1.5708 0"/>
  <axis xyz="0 0 0"/>
  <parent link="l_foot"/>
  <child link="l_foot_dh_frame"/>
</joint>
  <link name="r_foot_dh_frame">
    <inertial>
      <origin rpy="0 0 0" xyz="0 0 0"/>
      <mass value="0"/>
      <inertia ixx="0.0" ixy="0.0" ixz="0.0" iyy="0.0" iyz="0.0" izz="0.0"/>
    </inertial>
  </link> <!-- in pybullet, the inertia need to be specified even for dummy links, otherwise it will put an identity inertia and a mass of 1 by default -->
  <joint name="r_foot_dh_frame_fixed_joint" type="fixed">
  <origin xyz="0.0 0 0.004" rpy="0 1.5708 0"/>
  <axis xyz="0 0 0"/>
  <parent link="r_foot"/>
  <child link="r_foot_dh_frame"/>
</joint>
  <gazebo reference="r_arm_ft_sensor">
  <disableFixedJointLumping>true</disableFixedJointLumping>
</gazebo>
  <gazebo reference="l_arm_ft_sensor">
  <disableFixedJointLumping>true</disableFixedJointLumping>
</gazebo>
  <gazebo reference="r_leg_ft_sensor">
  <disableFixedJointLumping>true</disableFixedJointLumping>
</gazebo>
  <gazebo reference="l_leg_ft_sensor">
  <disableFixedJointLumping>true</disableFixedJointLumping>
</gazebo>
  <gazebo reference="r_foot_ft_sensor">
  <disableFixedJointLumping>true</disableFixedJointLumping>
</gazebo>
  <gazebo reference="l_foot_ft_sensor">
  <disableFixedJointLumping>true</disableFixedJointLumping>
</gazebo>
  <gazebo reference="l_foot">
  <collision> <surface> <bounce>
    <restitution_coefficient>0</restitution_coefficient>
    <threshold>100000</threshold>
  </bounce> </surface> </collision>
  <maxContacts>4</maxContacts>
  <kp>18000000</kp>
  <kd>100</kd>
  <maxVel>100</maxVel>
  <minDepth>0.0001</minDepth>
  <mu1>1</mu1>
  <mu2>1</mu2>
  <fdir1>0 0 0</fdir1>
</gazebo>
  <gazebo reference="r_foot">
  <collision> <surface> <bounce>
    <restitution_coefficient>0</restitution_coefficient>
    <threshold>100000</threshold>
  </bounce> </surface> </collision>
  <maxContacts>4</maxContacts>
  <kp>18000000</kp>
  <kd>100</kd>
  <maxVel>100</maxVel>
  <minDepth>0.0001</minDepth>
  <mu1>1</mu1>
  <mu2>1</mu2>
  <fdir1>0 0 0</fdir1>
</gazebo>
  <gazebo>
<plugin name="iCub_yarp_gazebo_plugin_ACCpart" filename="libgazebo_yarp_distributedinertials.so">
  <yarpConfigurationFile>model://iCub/conf/MTB/gazebo_icub_left_leg_mtb.ini</yarpConfigurationFile>
</plugin>
<plugin name="iCub_yarp_gazebo_plugin_ACCpart" filename="libgazebo_yarp_distributedinertials.so">
  <yarpConfigurationFile>model://iCub/conf/MTB/gazebo_icub_right_leg_mtb.ini</yarpConfigurationFile>
</plugin>
<plugin name="iCub_yarp_gazebo_plugin_ACCpart" filename="libgazebo_yarp_distributedinertials.so">
  <yarpConfigurationFile>model://iCub/conf/MTB/gazebo_icub_left_arm_mtb.ini</yarpConfigurationFile>
</plugin>
<plugin name="iCub_yarp_gazebo_plugin_ACCpart" filename="libgazebo_yarp_distributedinertials.so">
  <yarpConfigurationFile>model://iCub/conf/MTB/gazebo_icub_right_arm_mtb.ini</yarpConfigurationFile>
</plugin>
<plugin name="iCub_yarp_gazebo_plugin_ACCpart" filename="libgazebo_yarp_distributedinertials.so">
  <yarpConfigurationFile>model://iCub/conf/MTB/gazebo_icub_torso_mtb.ini</yarpConfigurationFile>
</plugin>
<plugin name="controlboard_torso" filename="libgazebo_yarp_controlboard.so">
  <yarpConfigurationFile>model://iCub/conf/gazebo_icub_torso.ini</yarpConfigurationFile>
</plugin>
<plugin name="controlboard_head_without_eyes" filename="libgazebo_yarp_controlboard.so">
  <yarpConfigurationFile>model://iCub/conf/gazebo_icub_head_without_eyes.ini</yarpConfigurationFile>
</plugin>
<plugin name="controlboard_left_arm_no_hand" filename="libgazebo_yarp_controlboard.so">
  <yarpConfigurationFile>model://iCub/conf/gazebo_icub_left_arm_no_hand_for_no_hand_model.ini</yarpConfigurationFile>
  <initialConfiguration>-0.52 0.52 0 0.785 0 0 0.0</initialConfiguration>
</plugin>
<plugin name="controlboard_right_arm_no_hand" filename="libgazebo_yarp_controlboard.so">
  <yarpConfigurationFile>model://iCub/conf/gazebo_icub_right_arm_no_hand_for_no_hand_model.ini</yarpConfigurationFile>
  <initialConfiguration>-0.52 0.52 0 0.785 0 0 0.0</initialConfiguration>
</plugin>
<plugin name="controlboard_right_leg" filename="libgazebo_yarp_controlboard.so">
  <yarpConfigurationFile>model://iCub/conf/gazebo_icub_right_leg.ini</yarpConfigurationFile>
</plugin>
<plugin name="controlboard_left_leg" filename="libgazebo_yarp_controlboard.so">
  <yarpConfigurationFile>model://iCub/conf/gazebo_icub_left_leg.ini</yarpConfigurationFile>
</plugin>
<plugin name="apply_external_wrench" filename="libgazebo_yarp_externalwrench.so">
  <robotNamefromConfigFile>model://iCub/conf/gazebo_icub_robotname.ini</robotNamefromConfigFile>
</plugin>
</gazebo>
  <gazebo reference="r_hip_pitch">
   <implicitSpringDamper>1</implicitSpringDamper>
</gazebo>
  <gazebo reference="r_hip_roll">
   <implicitSpringDamper>1</implicitSpringDamper>
</gazebo>
  <gazebo reference="r_hip_yaw">
   <implicitSpringDamper>1</implicitSpringDamper>
</gazebo>
  <gazebo reference="r_knee">
   <implicitSpringDamper>1</implicitSpringDamper>
</gazebo>
  <gazebo reference="r_ankle_pitch">
   <implicitSpringDamper>1</implicitSpringDamper>
</gazebo>
  <gazebo reference="r_ankle_roll">
   <implicitSpringDamper>1</implicitSpringDamper>
</gazebo>
  <gazebo reference="l_hip_pitch">
   <implicitSpringDamper>1</implicitSpringDamper>
</gazebo>
  <gazebo reference="l_hip_roll">
   <implicitSpringDamper>1</implicitSpringDamper>
</gazebo>
  <gazebo reference="l_hip_yaw">
   <implicitSpringDamper>1</implicitSpringDamper>
</gazebo>
  <gazebo reference="l_knee">
   <implicitSpringDamper>1</implicitSpringDamper>
</gazebo>
  <gazebo reference="l_ankle_pitch">
   <implicitSpringDamper>1</implicitSpringDamper>
</gazebo>
  <gazebo reference="l_ankle_roll">
   <implicitSpringDamper>1</implicitSpringDamper>
</gazebo>
  <gazebo reference="torso_pitch">
   <implicitSpringDamper>1</implicitSpringDamper>
</gazebo>
  <gazebo reference="torso_roll">
   <implicitSpringDamper>1</implicitSpringDamper>
</gazebo>
  <gazebo reference="torso_yaw">
   <implicitSpringDamper>1</implicitSpringDamper>
</gazebo>
  <gazebo reference="r_shoulder_pitch">
   <implicitSpringDamper>1</implicitSpringDamper>
</gazebo>
  <gazebo reference="r_shoulder_roll">
   <implicitSpringDamper>1</implicitSpringDamper>
</gazebo>
  <gazebo reference="r_shoulder_yaw">
   <implicitSpringDamper>1</implicitSpringDamper>
</gazebo>
  <gazebo reference="r_elbow">
   <implicitSpringDamper>1</implicitSpringDamper>
</gazebo>
  <gazebo reference="r_wrist_prosup">
   <implicitSpringDamper>1</implicitSpringDamper>
</gazebo>
  <gazebo reference="r_wrist_pitch">
   <implicitSpringDamper>1</implicitSpringDamper>
</gazebo>
  <gazebo reference="r_wrist_yaw">
   <implicitSpringDamper>1</implicitSpringDamper>
</gazebo>
  <gazebo reference="l_shoulder_pitch">
   <implicitSpringDamper>1</implicitSpringDamper>
</gazebo>
  <gazebo reference="l_shoulder_roll">
   <implicitSpringDamper>1</implicitSpringDamper>
</gazebo>
  <gazebo reference="l_shoulder_yaw">
   <implicitSpringDamper>1</implicitSpringDamper>
</gazebo>
  <gazebo reference="l_elbow">
   <implicitSpringDamper>1</implicitSpringDamper>
</gazebo>
  <gazebo reference="l_wrist_prosup">
   <implicitSpringDamper>1</implicitSpringDamper>
</gazebo>
  <gazebo reference="l_wrist_pitch">
   <implicitSpringDamper>1</implicitSpringDamper>
</gazebo>
  <gazebo reference="l_wrist_yaw">
   <implicitSpringDamper>1</implicitSpringDamper>
</gazebo>
  <gazebo reference="neck_pitch">
   <implicitSpringDamper>1</implicitSpringDamper>
</gazebo>
  <gazebo reference="neck_roll">
   <implicitSpringDamper>1</implicitSpringDamper>
</gazebo>
  <gazebo reference="neck_yaw">
   <implicitSpringDamper>1</implicitSpringDamper>
</gazebo>
  <gazebo reference="l_leg_ft_sensor">
    <sensor name="l_leg_ft_sensor" type="force_torque">
      <always_on>1</always_on>
      <update_rate>100</update_rate>
      <force_torque>
        <frame>child</frame>
        <measure_direction>child_to_parent</measure_direction>
      </force_torque>
      <plugin name="left_leg_ft_plugin" filename="libgazebo_yarp_forcetorque.so">
  <yarpConfigurationFile>model://iCub/conf/FT/gazebo_icub_left_leg_ft.ini</yarpConfigurationFile>
</plugin>
    </sensor>
  </gazebo>
  <sensor name="l_leg_ft_sensor" type="force_torque">
    <parent joint="l_leg_ft_sensor"/>
    <force_torque>
      <frame>child</frame>
      <measure_direction>child_to_parent</measure_direction>
    </force_torque>
  </sensor>
  <gazebo reference="r_leg_ft_sensor">
    <sensor name="r_leg_ft_sensor" type="force_torque">
      <always_on>1</always_on>
      <update_rate>100</update_rate>
      <force_torque>
        <frame>child</frame>
        <measure_direction>child_to_parent</measure_direction>
      </force_torque>
      <plugin name="right_leg_ft_plugin" filename="libgazebo_yarp_forcetorque.so">
  <yarpConfigurationFile>model://iCub/conf/FT/gazebo_icub_right_leg_ft.ini</yarpConfigurationFile>
</plugin>
    </sensor>
  </gazebo>
  <sensor name="r_leg_ft_sensor" type="force_torque">
    <parent joint="r_leg_ft_sensor"/>
    <force_torque>
      <frame>child</frame>
      <measure_direction>child_to_parent</measure_direction>
    </force_torque>
  </sensor>
  <gazebo reference="l_foot_ft_sensor">
    <sensor name="l_foot_ft_sensor" type="force_torque">
      <always_on>1</always_on>
      <update_rate>100</update_rate>
      <force_torque>
        <frame>child</frame>
        <measure_direction>child_to_parent</measure_direction>
      </force_torque>
      <plugin name="left_foot_ft_plugin" filename="libgazebo_yarp_forcetorque.so">
  <yarpConfigurationFile>model://iCub/conf/FT/gazebo_icub_left_foot_ft.ini</yarpConfigurationFile>
</plugin>
    </sensor>
  </gazebo>
  <sensor name="l_foot_ft_sensor" type="force_torque">
    <parent joint="l_foot_ft_sensor"/>
    <force_torque>
      <frame>child</frame>
      <measure_direction>child_to_parent</measure_direction>
    </force_torque>
  </sensor>
  <gazebo reference="r_foot_ft_sensor">
    <sensor name="r_foot_ft_sensor" type="force_torque">
      <always_on>1</always_on>
      <update_rate>100</update_rate>
      <force_torque>
        <frame>child</frame>
        <measure_direction>child_to_parent</measure_direction>
      </force_torque>
      <plugin name="right_foot_ft_plugin" filename="libgazebo_yarp_forcetorque.so">
  <yarpConfigurationFile>model://iCub/conf/FT/gazebo_icub_right_foot_ft.ini</yarpConfigurationFile>
</plugin>
    </sensor>
  </gazebo>
  <sensor name="r_foot_ft_sensor" type="force_torque">
    <parent joint="r_foot_ft_sensor"/>
    <force_torque>
      <frame>child</frame>
      <measure_direction>child_to_parent</measure_direction>
    </force_torque>
  </sensor>
  <gazebo reference="l_arm_ft_sensor">
    <sensor name="l_arm_ft_sensor" type="force_torque">
      <always_on>1</always_on>
      <update_rate>100</update_rate>
      <force_torque>
        <frame>child</frame>
        <measure_direction>child_to_parent</measure_direction>
      </force_torque>
      <plugin name="left_arm_ft_plugin" filename="libgazebo_yarp_forcetorque.so">
  <yarpConfigurationFile>model://iCub/conf/FT/gazebo_icub_left_arm_ft.ini</yarpConfigurationFile>
</plugin>
    </sensor>
  </gazebo>
  <sensor name="l_arm_ft_sensor" type="force_torque">
    <parent joint="l_arm_ft_sensor"/>
    <force_torque>
      <frame>child</frame>
      <measure_direction>child_to_parent</measure_direction>
    </force_torque>
  </sensor>
  <gazebo reference="r_arm_ft_sensor">
    <sensor name="r_arm_ft_sensor" type="force_torque">
      <always_on>1</always_on>
      <update_rate>100</update_rate>
      <force_torque>
        <frame>child</frame>
        <measure_direction>child_to_parent</measure_direction>
      </force_torque>
      <plugin name="right_arm_ft_plugin" filename="libgazebo_yarp_forcetorque.so">
  <yarpConfigurationFile>model://iCub/conf/FT/gazebo_icub_right_arm_ft.ini</yarpConfigurationFile>
</plugin>
    </sensor>
  </gazebo>
  <sensor name="r_arm_ft_sensor" type="force_torque">
    <parent joint="r_arm_ft_sensor"/>
    <force_torque>
      <frame>child</frame>
      <measure_direction>child_to_parent</measure_direction>
    </force_torque>
  </sensor>
  <gazebo reference="head">
    <sensor name="head_imu_acc_1x1" type="imu">
      <always_on>1</always_on>
      <update_rate>100</update_rate>
      <pose>0.00950000019074 0.133444 0.0093 -1.57079632679 1.57079632679 0.0</pose>
      <plugin name="iCub_yarp_gazebo_plugin_IMU" filename="libgazebo_yarp_imu.so">
    <yarpConfigurationFile>model://iCub/conf/gazebo_icub_inertial.ini</yarpConfigurationFile>
</plugin>
    </sensor>
  </gazebo>
  <sensor name="head_imu_acc_1x1" type="accelerometer">
    <parent link="head"/>
    <origin rpy="-1.57079632679 1.57079632679 0.0" xyz="0.00950000019074 0.133444 0.0093"/>
  </sensor>
  <gazebo reference="root_link">
    <sensor name="root_link_ems_acc_eb5" type="imu">
      <always_on>1</always_on>
      <update_rate>100</update_rate>
      <pose>0.0493308 -0.0125771 -0.115691 -3.14159265359 1.29154404503 3.14159265359</pose>
      <plugin name="iCub_yarp_gazebo_plugin_ACC" filename="libgazebo_yarp_inertial.so"/>
    </sensor>
  </gazebo>
  <sensor name="root_link_ems_acc_eb5" type="accelerometer">
    <parent link="root_link"/>
    <origin rpy="-3.14159265359 1.29154404503 3.14159265359" xyz="0.0493308 -0.0125771 -0.115691"/>
  </sensor>
  <gazebo reference="root_link">
    <sensor name="root_link_ems_gyro_eb5" type="imu">
      <always_on>1</always_on>
      <update_rate>100</update_rate>
      <pose>0.0493308 -0.0125771 -0.115691 -3.14159265359 1.29154404503 3.14159265359</pose>
    </sensor>
  </gazebo>
  <sensor name="root_link_ems_gyro_eb5" type="gyroscope">
    <parent link="root_link"/>
    <origin rpy="-3.14159265359 1.29154404503 3.14159265359" xyz="0.0493308 -0.0125771 -0.115691"/>
  </sensor>
  <gazebo reference="chest">
    <sensor name="chest_ems_acc_eb1" type="imu">
      <always_on>1</always_on>
      <update_rate>100</update_rate>
      <pose>0.0647855001907 0.064043 -0.0647091 3.1415169123 -0.261799309122 0.000292641880255</pose>
      <plugin name="iCub_yarp_gazebo_plugin_ACC" filename="libgazebo_yarp_inertial.so"/>
    </sensor>
  </gazebo>
  <sensor name="chest_ems_acc_eb1" type="accelerometer">
    <parent link="chest"/>
    <origin rpy="3.1415169123 -0.261799309122 0.000292641880255" xyz="0.0647855001907 0.064043 -0.0647091"/>
  </sensor>
  <gazebo reference="chest">
    <sensor name="chest_ems_gyro_eb1" type="imu">
      <always_on>1</always_on>
      <update_rate>100</update_rate>
      <pose>0.0692016001907 0.064548 -0.0635258 3.1415169123 -0.261799309122 0.000292641880255</pose>
    </sensor>
  </gazebo>
  <sensor name="chest_ems_gyro_eb1" type="gyroscope">
    <parent link="chest"/>
    <origin rpy="3.1415169123 -0.261799309122 0.000292641880255" xyz="0.0692016001907 0.064548 -0.0635258"/>
  </sensor>
  <gazebo reference="chest">
    <sensor name="chest_ems_acc_eb2" type="imu">
      <always_on>1</always_on>
      <update_rate>100</update_rate>
      <pose>0.0204533001907 0.088063 -0.0641645 3.14159050104 0.261799319819 3.14158433678</pose>
      <plugin name="iCub_yarp_gazebo_plugin_ACC" filename="libgazebo_yarp_inertial.so"/>
    </sensor>
  </gazebo>
  <sensor name="chest_ems_acc_eb2" type="accelerometer">
    <parent link="chest"/>
    <origin rpy="3.14159050104 0.261799319819 3.14158433678" xyz="0.0204533001907 0.088063 -0.0641645"/>
  </sensor>
  <gazebo reference="chest">
    <sensor name="chest_ems_gyro_eb2" type="imu">
      <always_on>1</always_on>
      <update_rate>100</update_rate>
      <pose>0.0160371001907 0.087559 -0.0653479 3.14159050104 0.261799319819 3.14158433678</pose>
    </sensor>
  </gazebo>
  <sensor name="chest_ems_gyro_eb2" type="gyroscope">
    <parent link="chest"/>
    <origin rpy="3.14159050104 0.261799319819 3.14158433678" xyz="0.0160371001907 0.087559 -0.0653479"/>
  </sensor>
  <gazebo reference="chest">
    <sensor name="chest_ems_acc_eb3" type="imu">
      <always_on>1</always_on>
      <update_rate>100</update_rate>
      <pose>-0.0230587998093 0.064019 -0.0758985 3.14110916203 0.261100516471 -0.000309071462555</pose>
      <plugin name="iCub_yarp_gazebo_plugin_ACC" filename="libgazebo_yarp_inertial.so"/>
    </sensor>
  </gazebo>
  <sensor name="chest_ems_acc_eb3" type="accelerometer">
    <parent link="chest"/>
    <origin rpy="3.14110916203 0.261100516471 -0.000309071462555" xyz="-0.0230587998093 0.064019 -0.0758985"/>
  </sensor>
  <gazebo reference="chest">
    <sensor name="chest_ems_gyro_eb3" type="imu">
      <always_on>1</always_on>
      <update_rate>100</update_rate>
      <pose>-0.0186416998093 0.064521 -0.0770785 3.14110916203 0.261100516471 -0.000309071462555</pose>
    </sensor>
  </gazebo>
  <sensor name="chest_ems_gyro_eb3" type="gyroscope">
    <parent link="chest"/>
    <origin rpy="3.14110916203 0.261100516471 -0.000309071462555" xyz="-0.0186416998093 0.064521 -0.0770785"/>
  </sensor>
  <gazebo reference="chest">
    <sensor name="chest_ems_acc_eb4" type="imu">
      <always_on>1</always_on>
      <update_rate>100</update_rate>
      <pose>-0.0621620998093 0.088063 -0.0529887 -3.14159050476 -0.261799319819 3.14158433987</pose>
      <plugin name="iCub_yarp_gazebo_plugin_ACC" filename="libgazebo_yarp_inertial.so"/>
    </sensor>
  </gazebo>
  <sensor name="chest_ems_acc_eb4" type="accelerometer">
    <parent link="chest"/>
    <origin rpy="-3.14159050476 -0.261799319819 3.14158433987" xyz="-0.0621620998093 0.088063 -0.0529887"/>
  </sensor>
  <gazebo reference="chest">
    <sensor name="chest_ems_gyro_eb4" type="imu">
      <always_on>1</always_on>
      <update_rate>100</update_rate>
      <pose>-0.0665783998093 0.087559 -0.0518054 -3.14159050476 -0.261799319819 3.14158433987</pose>
    </sensor>
  </gazebo>
  <sensor name="chest_ems_gyro_eb4" type="gyroscope">
    <parent link="chest"/>
    <origin rpy="-3.14159050476 -0.261799319819 3.14158433987" xyz="-0.0665783998093 0.087559 -0.0518054"/>
  </sensor>
  <gazebo reference="chest">
    <sensor name="chest_mtb_acc_0b7" type="imu">
      <always_on>1</always_on>
      <update_rate>100</update_rate>
      <pose>-0.0607539998093 -0.0017836 0.0442341 0.875167771492 0.116363734392 -1.48597350247</pose>
      <plugin name="iCub_yarp_gazebo_plugin_ACC" filename="libgazebo_yarp_inertial.so"/>
    </sensor>
  </gazebo>
  <sensor name="chest_mtb_acc_0b7" type="accelerometer">
    <parent link="chest"/>
    <origin rpy="0.875167771492 0.116363734392 -1.48597350247" xyz="-0.0607539998093 -0.0017836 0.0442341"/>
  </sensor>
  <gazebo reference="chest">
    <sensor name="chest_mtb_acc_0b8" type="imu">
      <always_on>1</always_on>
      <update_rate>100</update_rate>
      <pose>-0.0457046998093 -0.001846 0.0567427 0.500960084689 0.107313688983 -1.4778325291</pose>
      <plugin name="iCub_yarp_gazebo_plugin_ACC" filename="libgazebo_yarp_inertial.so"/>
    </sensor>
  </gazebo>
  <sensor name="chest_mtb_acc_0b8" type="accelerometer">
    <parent link="chest"/>
    <origin rpy="0.500960084689 0.107313688983 -1.4778325291" xyz="-0.0457046998093 -0.001846 0.0567427"/>
  </sensor>
  <gazebo reference="chest">
    <sensor name="chest_mtb_acc_0b9" type="imu">
      <always_on>1</always_on>
      <update_rate>100</update_rate>
      <pose>0.0439036001907 -0.0017841 0.0577221 -0.500959928973 0.107315404248 -1.66376017469</pose>
      <plugin name="iCub_yarp_gazebo_plugin_ACC" filename="libgazebo_yarp_inertial.so"/>
    </sensor>
  </gazebo>
  <sensor name="chest_mtb_acc_0b9" type="accelerometer">
    <parent link="chest"/>
    <origin rpy="-0.500959928973 0.107315404248 -1.66376017469" xyz="0.0439036001907 -0.0017841 0.0577221"/>
  </sensor>
  <gazebo reference="chest">
    <sensor name="chest_mtb_acc_0b10" type="imu">
      <always_on>1</always_on>
      <update_rate>100</update_rate>
      <pose>0.0594286001907 -0.0018543 0.0457981 -0.875168153475 0.116362025479 -1.65561807505</pose>
      <plugin name="iCub_yarp_gazebo_plugin_ACC" filename="libgazebo_yarp_inertial.so"/>
    </sensor>
  </gazebo>
  <sensor name="chest_mtb_acc_0b10" type="accelerometer">
    <parent link="chest"/>
    <origin rpy="-0.875168153475 0.116362025479 -1.65561807505" xyz="0.0594286001907 -0.0018543 0.0457981"/>
  </sensor>
  <gazebo reference="r_upper_arm">
    <sensor name="r_upper_arm_mtb_acc_2b10" type="imu">
      <always_on>1</always_on>
      <update_rate>100</update_rate>
      <pose>-0.0412194 0.029588 0.0295279 1.57079546365 1.57078381225 -2.68257161165</pose>
      <plugin name="iCub_yarp_gazebo_plugin_ACC" filename="libgazebo_yarp_inertial.so"/>
    </sensor>
  </gazebo>
  <sensor name="r_upper_arm_mtb_acc_2b10" type="accelerometer">
    <parent link="r_upper_arm"/>
    <origin rpy="1.57079546365 1.57078381225 -2.68257161165" xyz="-0.0412194 0.029588 0.0295279"/>
  </sensor>
  <gazebo reference="r_upper_arm">
    <sensor name="r_upper_arm_mtb_acc_2b11" type="imu">
      <always_on>1</always_on>
      <update_rate>100</update_rate>
      <pose>-0.0430568 0.02868 0.0760604 -1.57079614695 -1.57050350741 0.459021725219</pose>
      <plugin name="iCub_yarp_gazebo_plugin_ACC" filename="libgazebo_yarp_inertial.so"/>
    </sensor>
  </gazebo>
  <sensor name="r_upper_arm_mtb_acc_2b11" type="accelerometer">
    <parent link="r_upper_arm"/>
    <origin rpy="-1.57079614695 -1.57050350741 0.459021725219" xyz="-0.0430568 0.02868 0.0760604"/>
  </sensor>
  <gazebo reference="r_upper_arm">
    <sensor name="r_upper_arm_mtb_acc_2b12" type="imu">
      <always_on>1</always_on>
      <update_rate>100</update_rate>
      <pose>-0.0430554 0.028681 0.0049922 -1.11177442168 -1.57079632679 0.0</pose>
      <plugin name="iCub_yarp_gazebo_plugin_ACC" filename="libgazebo_yarp_inertial.so"/>
    </sensor>
  </gazebo>
  <sensor name="r_upper_arm_mtb_acc_2b12" type="accelerometer">
    <parent link="r_upper_arm"/>
    <origin rpy="-1.11177442168 -1.57079632679 0.0" xyz="-0.0430554 0.028681 0.0049922"/>
  </sensor>
  <gazebo reference="r_upper_arm">
    <sensor name="r_upper_arm_mtb_acc_2b13" type="imu">
      <always_on>1</always_on>
      <update_rate>100</update_rate>
      <pose>0.010593237 0.02835 -0.010738 1.57079632702 -0.000214520362041 2.47803674451</pose>
      <plugin name="iCub_yarp_gazebo_plugin_ACC" filename="libgazebo_yarp_inertial.so"/>
    </sensor>
  </gazebo>
  <sensor name="r_upper_arm_mtb_acc_2b13" type="accelerometer">
    <parent link="r_upper_arm"/>
    <origin rpy="1.57079632702 -0.000214520362041 2.47803674451" xyz="0.010593237 0.02835 -0.010738"/>
  </sensor>
  <gazebo reference="r_forearm">
    <sensor name="r_forearm_mtb_acc_2b7" type="imu">
      <always_on>1</always_on>
      <update_rate>100</update_rate>
      <pose>-0.0768727847342 0.005497 -0.0110479126068 0.26179949998 0.000370413042328 1.57125816863</pose>
      <plugin name="iCub_yarp_gazebo_plugin_ACC" filename="libgazebo_yarp_inertial.so"/>
    </sensor>
  </gazebo>
  <sensor name="r_forearm_mtb_acc_2b7" type="accelerometer">
    <parent link="r_forearm"/>
    <origin rpy="0.26179949998 0.000370413042328 1.57125816863" xyz="-0.0768727847342 0.005497 -0.0110479126068"/>
  </sensor>
  <gazebo reference="r_forearm">
    <sensor name="r_forearm_mtb_acc_2b8" type="imu">
      <always_on>1</always_on>
      <update_rate>100</update_rate>
      <pose>-0.0514186150796 0.015786 0.0407521537277 -0.661143946092 0.147825248461 0.092070114703</pose>
      <plugin name="iCub_yarp_gazebo_plugin_ACC" filename="libgazebo_yarp_inertial.so"/>
    </sensor>
  </gazebo>
  <sensor name="r_forearm_mtb_acc_2b8" type="accelerometer">
    <parent link="r_forearm"/>
    <origin rpy="-0.661143946092 0.147825248461 0.092070114703" xyz="-0.0514186150796 0.015786 0.0407521537277"/>
  </sensor>
  <gazebo reference="r_forearm">
    <sensor name="r_forearm_mtb_acc_2b9" type="imu">
      <always_on>1</always_on>
      <update_rate>100</update_rate>
      <pose>-0.0216379956759 0.027924 -0.0132490254018 -1.76682626732 0.261191225646 0.054048344372</pose>
      <plugin name="iCub_yarp_gazebo_plugin_ACC" filename="libgazebo_yarp_inertial.so"/>
    </sensor>
  </gazebo>
  <sensor name="r_forearm_mtb_acc_2b9" type="accelerometer">
    <parent link="r_forearm"/>
    <origin rpy="-1.76682626732 0.261191225646 0.054048344372" xyz="-0.0216379956759 0.027924 -0.0132490254018"/>
  </sensor>
  <gazebo reference="l_upper_arm">
    <sensor name="l_upper_arm_mtb_acc_1b10" type="imu">
      <always_on>1</always_on>
      <update_rate>100</update_rate>
      <pose>-0.0430554 -0.028681 0.0295279 -1.57079650664 -1.57050350741 2.68257092837</pose>
      <plugin name="iCub_yarp_gazebo_plugin_ACC" filename="libgazebo_yarp_inertial.so"/>
    </sensor>
  </gazebo>
  <sensor name="l_upper_arm_mtb_acc_1b10" type="accelerometer">
    <parent link="l_upper_arm"/>
    <origin rpy="-1.57079650664 -1.57050350741 2.68257092837" xyz="-0.0430554 -0.028681 0.0295279"/>
  </sensor>
  <gazebo reference="l_upper_arm">
    <sensor name="l_upper_arm_mtb_acc_1b11" type="imu">
      <always_on>1</always_on>
      <update_rate>100</update_rate>
      <pose>-0.0412181 -0.029589 0.0760604 -1.57079650664 -1.57050350741 2.68257092837</pose>
      <plugin name="iCub_yarp_gazebo_plugin_ACC" filename="libgazebo_yarp_inertial.so"/>
    </sensor>
  </gazebo>
  <sensor name="l_upper_arm_mtb_acc_1b11" type="accelerometer">
    <parent link="l_upper_arm"/>
    <origin rpy="-1.57079650664 -1.57050350741 2.68257092837" xyz="-0.0412181 -0.029589 0.0760604"/>
  </sensor>
  <gazebo reference="l_upper_arm">
    <sensor name="l_upper_arm_mtb_acc_1b12" type="imu">
      <always_on>1</always_on>
      <update_rate>100</update_rate>
      <pose>-0.0412194 -0.029588 0.0049921 -1.5707971899 -1.57078381225 2.68257161159</pose>
      <plugin name="iCub_yarp_gazebo_plugin_ACC" filename="libgazebo_yarp_inertial.so"/>
    </sensor>
  </gazebo>
  <sensor name="l_upper_arm_mtb_acc_1b12" type="accelerometer">
    <parent link="l_upper_arm"/>
    <origin rpy="-1.5707971899 -1.57078381225 2.68257161159" xyz="-0.0412194 -0.029588 0.0049921"/>
  </sensor>
  <gazebo reference="l_upper_arm">
    <sensor name="l_upper_arm_mtb_acc_1b13" type="imu">
      <always_on>1</always_on>
      <update_rate>100</update_rate>
      <pose>0.010592709 -0.028351 -0.0086914 -1.57079632657 0.000214520362042 -2.47803674451</pose>
      <plugin name="iCub_yarp_gazebo_plugin_ACC" filename="libgazebo_yarp_inertial.so"/>
    </sensor>
  </gazebo>
  <sensor name="l_upper_arm_mtb_acc_1b13" type="accelerometer">
    <parent link="l_upper_arm"/>
    <origin rpy="-1.57079632657 0.000214520362042 -2.47803674451" xyz="0.010592709 -0.028351 -0.0086914"/>
  </sensor>
  <gazebo reference="l_forearm">
    <sensor name="l_forearm_mtb_acc_1b7" type="imu">
      <always_on>1</always_on>
      <update_rate>100</update_rate>
      <pose>0.0768727847342 -0.005483 -0.0110479126068 0.26179949998 0.000370413042328 -1.57033448496</pose>
      <plugin name="iCub_yarp_gazebo_plugin_ACC" filename="libgazebo_yarp_inertial.so"/>
    </sensor>
  </gazebo>
  <sensor name="l_forearm_mtb_acc_1b7" type="accelerometer">
    <parent link="l_forearm"/>
    <origin rpy="0.26179949998 0.000370413042328 -1.57033448496" xyz="0.0768727847342 -0.005483 -0.0110479126068"/>
  </sensor>
  <gazebo reference="l_forearm">
    <sensor name="l_forearm_mtb_acc_1b8" type="imu">
      <always_on>1</always_on>
      <update_rate>100</update_rate>
      <pose>0.0514241740607 -0.0180279 0.0407507258436 -0.661143946092 0.147825248461 -3.04952253889</pose>
      <plugin name="iCub_yarp_gazebo_plugin_ACC" filename="libgazebo_yarp_inertial.so"/>
    </sensor>
  </gazebo>
  <sensor name="l_forearm_mtb_acc_1b8" type="accelerometer">
    <parent link="l_forearm"/>
    <origin rpy="-0.661143946092 0.147825248461 -3.04952253889" xyz="0.0514241740607 -0.0180279 0.0407507258436"/>
  </sensor>
  <gazebo reference="l_forearm">
    <sensor name="l_forearm_mtb_acc_1b9" type="imu">
      <always_on>1</always_on>
      <update_rate>100</update_rate>
      <pose>0.0220991874996 0.025657 -0.0151174243212 1.76682134218 0.261099829847 3.08752548202</pose>
      <plugin name="iCub_yarp_gazebo_plugin_ACC" filename="libgazebo_yarp_inertial.so"/>
    </sensor>
  </gazebo>
  <sensor name="l_forearm_mtb_acc_1b9" type="accelerometer">
    <parent link="l_forearm"/>
    <origin rpy="1.76682134218 0.261099829847 3.08752548202" xyz="0.0220991874996 0.025657 -0.0151174243212"/>
  </sensor>
  <gazebo reference="r_upper_leg">
    <sensor name="r_upper_leg_ems_acc_eb8" type="imu">
      <always_on>1</always_on>
      <update_rate>100</update_rate>
      <pose>-0.0125751 0.0404072 -0.040227 1.57079632679 1.57079632679 0.0</pose>
      <plugin name="iCub_yarp_gazebo_plugin_ACC" filename="libgazebo_yarp_inertial.so"/>
    </sensor>
  </gazebo>
  <sensor name="r_upper_leg_ems_acc_eb8" type="accelerometer">
    <parent link="r_upper_leg"/>
    <origin rpy="1.57079632679 1.57079632679 0.0" xyz="-0.0125751 0.0404072 -0.040227"/>
  </sensor>
  <gazebo reference="r_upper_leg">
    <sensor name="r_upper_leg_ems_acc_eb11" type="imu">
      <always_on>1</always_on>
      <update_rate>100</update_rate>
      <pose>-0.0125771 -0.040407 -0.083407 1.57079632679 1.57079632679 0.0</pose>
      <plugin name="iCub_yarp_gazebo_plugin_ACC" filename="libgazebo_yarp_inertial.so"/>
    </sensor>
  </gazebo>
  <sensor name="r_upper_leg_ems_acc_eb11" type="accelerometer">
    <parent link="r_upper_leg"/>
    <origin rpy="1.57079632679 1.57079632679 0.0" xyz="-0.0125771 -0.040407 -0.083407"/>
  </sensor>
  <gazebo reference="r_upper_leg">
    <sensor name="r_upper_leg_ems_gyro_eb8" type="imu">
      <always_on>1</always_on>
      <update_rate>100</update_rate>
      <pose>-0.013079 0.0404072 -0.035655 1.57079632679 1.57079632679 0.0</pose>
    </sensor>
  </gazebo>
  <sensor name="r_upper_leg_ems_gyro_eb8" type="gyroscope">
    <parent link="r_upper_leg"/>
    <origin rpy="1.57079632679 1.57079632679 0.0" xyz="-0.013079 0.0404072 -0.035655"/>
  </sensor>
  <gazebo reference="r_upper_leg">
    <sensor name="r_upper_leg_ems_gyro_eb11" type="imu">
      <always_on>1</always_on>
      <update_rate>100</update_rate>
      <pose>-0.013081 -0.040407 -0.087979 1.57079632679 1.57079632679 0.0</pose>
    </sensor>
  </gazebo>
  <sensor name="r_upper_leg_ems_gyro_eb11" type="gyroscope">
    <parent link="r_upper_leg"/>
    <origin rpy="1.57079632679 1.57079632679 0.0" xyz="-0.013081 -0.040407 -0.087979"/>
  </sensor>
  <gazebo reference="r_upper_leg">
    <sensor name="r_upper_leg_mtb_acc_11b1" type="imu">
      <always_on>1</always_on>
      <update_rate>100</update_rate>
      <pose>0.043588612 -0.030195 0.04894 2.52670843803 -1.57044484253 -0.22287382498</pose>
      <plugin name="iCub_yarp_gazebo_plugin_ACC" filename="libgazebo_yarp_inertial.so"/>
    </sensor>
  </gazebo>
  <sensor name="r_upper_leg_mtb_acc_11b1" type="accelerometer">
    <parent link="r_upper_leg"/>
    <origin rpy="2.52670843803 -1.57044484253 -0.22287382498" xyz="0.043588612 -0.030195 0.04894"/>
  </sensor>
  <gazebo reference="r_upper_leg">
    <sensor name="r_upper_leg_mtb_acc_11b2" type="imu">
      <always_on>1</always_on>
      <update_rate>100</update_rate>
      <pose>0.0539467 -0.0064065 0.039056 -3.12940212057 -1.57038181496 -0.273989852569</pose>
      <plugin name="iCub_yarp_gazebo_plugin_ACC" filename="libgazebo_yarp_inertial.so"/>
    </sensor>
  </gazebo>
  <sensor name="r_upper_leg_mtb_acc_11b2" type="accelerometer">
    <parent link="r_upper_leg"/>
    <origin rpy="-3.12940212057 -1.57038181496 -0.273989852569" xyz="0.0539467 -0.0064065 0.039056"/>
  </sensor>
  <gazebo reference="r_upper_leg">
    <sensor name="r_upper_leg_mtb_acc_11b3" type="imu">
      <always_on>1</always_on>
      <update_rate>100</update_rate>
      <pose>0.0538313 -0.0130214 0.003986 -2.87731085451 -1.5703518031 -0.264281823992</pose>
      <plugin name="iCub_yarp_gazebo_plugin_ACC" filename="libgazebo_yarp_inertial.so"/>
    </sensor>
  </gazebo>
  <sensor name="r_upper_leg_mtb_acc_11b3" type="accelerometer">
    <parent link="r_upper_leg"/>
    <origin rpy="-2.87731085451 -1.5703518031 -0.264281823992" xyz="0.0538313 -0.0130214 0.003986"/>
  </sensor>
  <gazebo reference="r_upper_leg">
    <sensor name="r_upper_leg_mtb_acc_11b4" type="imu">
      <always_on>1</always_on>
      <update_rate>100</update_rate>
      <pose>0.0322719 0.0422675 -0.005045 -1.87390998809 -1.57025771326 -0.0808589029571</pose>
      <plugin name="iCub_yarp_gazebo_plugin_ACC" filename="libgazebo_yarp_inertial.so"/>
    </sensor>
  </gazebo>
  <sensor name="r_upper_leg_mtb_acc_11b4" type="accelerometer">
    <parent link="r_upper_leg"/>
    <origin rpy="-1.87390998809 -1.57025771326 -0.0808589029571" xyz="0.0322719 0.0422675 -0.005045"/>
  </sensor>
  <gazebo reference="r_upper_leg">
    <sensor name="r_upper_leg_mtb_acc_11b5" type="imu">
      <always_on>1</always_on>
      <update_rate>100</update_rate>
      <pose>0.0538313 0.0164786 0.003986 -2.87731085451 -1.5703518031 -0.264281823992</pose>
      <plugin name="iCub_yarp_gazebo_plugin_ACC" filename="libgazebo_yarp_inertial.so"/>
    </sensor>
  </gazebo>
  <sensor name="r_upper_leg_mtb_acc_11b5" type="accelerometer">
    <parent link="r_upper_leg"/>
    <origin rpy="-2.87731085451 -1.5703518031 -0.264281823992" xyz="0.0538313 0.0164786 0.003986"/>
  </sensor>
  <gazebo reference="r_upper_leg">
    <sensor name="r_upper_leg_mtb_acc_11b6" type="imu">
      <always_on>1</always_on>
      <update_rate>100</update_rate>
      <pose>-0.0437518 -0.0157594 -0.026565 1.95410275534e-17 1.5703672368 -3.14159265359</pose>
      <plugin name="iCub_yarp_gazebo_plugin_ACC" filename="libgazebo_yarp_inertial.so"/>
    </sensor>
  </gazebo>
  <sensor name="r_upper_leg_mtb_acc_11b6" type="accelerometer">
    <parent link="r_upper_leg"/>
    <origin rpy="1.95410275534e-17 1.5703672368 -3.14159265359" xyz="-0.0437518 -0.0157594 -0.026565"/>
  </sensor>
  <gazebo reference="r_upper_leg">
    <sensor name="r_upper_leg_mtb_acc_11b7" type="imu">
      <always_on>1</always_on>
      <update_rate>100</update_rate>
      <pose>-0.0437518 0.0162386 -0.026566 0.264252523901 1.57035180662 -2.87734010478</pose>
      <plugin name="iCub_yarp_gazebo_plugin_ACC" filename="libgazebo_yarp_inertial.so"/>
    </sensor>
  </gazebo>
  <sensor name="r_upper_leg_mtb_acc_11b7" type="accelerometer">
    <parent link="r_upper_leg"/>
    <origin rpy="0.264252523901 1.57035180662 -2.87734010478" xyz="-0.0437518 0.0162386 -0.026566"/>
  </sensor>
  <gazebo reference="r_lower_leg">
    <sensor name="r_lower_leg_ems_acc_eb9" type="imu">
      <always_on>1</always_on>
      <update_rate>100</update_rate>
      <pose>0.04351373 0.0138396 -0.092765 -3.14159265359 -1.35262978345 -8.47684971046e-16</pose>
      <plugin name="iCub_yarp_gazebo_plugin_ACC" filename="libgazebo_yarp_inertial.so"/>
    </sensor>
  </gazebo>
  <sensor name="r_lower_leg_ems_acc_eb9" type="accelerometer">
    <parent link="r_lower_leg"/>
    <origin rpy="-3.14159265359 -1.35262978345 -8.47684971046e-16" xyz="0.04351373 0.0138396 -0.092765"/>
  </sensor>
  <gazebo reference="r_lower_leg">
    <sensor name="r_lower_leg_ems_gyro_eb9" type="imu">
      <always_on>1</always_on>
      <update_rate>100</update_rate>
      <pose>0.044503292 0.0143435 -0.088301 -3.14159265359 -1.35262978345 -8.47684971046e-16</pose>
    </sensor>
  </gazebo>
  <sensor name="r_lower_leg_ems_gyro_eb9" type="gyroscope">
    <parent link="r_lower_leg"/>
    <origin rpy="-3.14159265359 -1.35262978345 -8.47684971046e-16" xyz="0.044503292 0.0143435 -0.088301"/>
  </sensor>
  <gazebo reference="r_lower_leg">
    <sensor name="r_lower_leg_mtb_acc_11b8" type="imu">
      <always_on>1</always_on>
      <update_rate>100</update_rate>
      <pose>0.05362922 -0.0151958 -0.004318 -1.57079699431 -1.5706802101 -1.81514182543</pose>
      <plugin name="iCub_yarp_gazebo_plugin_ACC" filename="libgazebo_yarp_inertial.so"/>
    </sensor>
  </gazebo>
  <sensor name="r_lower_leg_mtb_acc_11b8" type="accelerometer">
    <parent link="r_lower_leg"/>
    <origin rpy="-1.57079699431 -1.5706802101 -1.81514182543" xyz="0.05362922 -0.0151958 -0.004318"/>
  </sensor>
  <gazebo reference="r_lower_leg">
    <sensor name="r_lower_leg_mtb_acc_11b9" type="imu">
      <always_on>1</always_on>
      <update_rate>100</update_rate>
      <pose>0.0537517 0.0157229 -0.004318 -1.57079629188 -1.57068021044 -1.2217307215</pose>
      <plugin name="iCub_yarp_gazebo_plugin_ACC" filename="libgazebo_yarp_inertial.so"/>
    </sensor>
  </gazebo>
  <sensor name="r_lower_leg_mtb_acc_11b9" type="accelerometer">
    <parent link="r_lower_leg"/>
    <origin rpy="-1.57079629188 -1.57068021044 -1.2217307215" xyz="0.0537517 0.0157229 -0.004318"/>
  </sensor>
  <gazebo reference="r_lower_leg">
    <sensor name="r_lower_leg_mtb_acc_11b10" type="imu">
      <always_on>1</always_on>
      <update_rate>100</update_rate>
      <pose>0.0278945 -0.042214 -0.043468 1.83259550627 -1.57079632679 0.0</pose>
      <plugin name="iCub_yarp_gazebo_plugin_ACC" filename="libgazebo_yarp_inertial.so"/>
    </sensor>
  </gazebo>
  <sensor name="r_lower_leg_mtb_acc_11b10" type="accelerometer">
    <parent link="r_lower_leg"/>
    <origin rpy="1.83259550627 -1.57079632679 0.0" xyz="0.0278945 -0.042214 -0.043468"/>
  </sensor>
  <gazebo reference="r_lower_leg">
    <sensor name="r_lower_leg_mtb_acc_11b11" type="imu">
      <always_on>1</always_on>
      <update_rate>100</update_rate>
      <pose>0.0164801 0.042249 -0.092958 -1.57079369547 -1.57068021035 -0.261801810497</pose>
      <plugin name="iCub_yarp_gazebo_plugin_ACC" filename="libgazebo_yarp_inertial.so"/>
    </sensor>
  </gazebo>
  <sensor name="r_lower_leg_mtb_acc_11b11" type="accelerometer">
    <parent link="r_lower_leg"/>
    <origin rpy="-1.57079369547 -1.57068021035 -0.261801810497" xyz="0.0164801 0.042249 -0.092958"/>
  </sensor>
  <gazebo reference="r_foot">
    <sensor name="r_foot_mtb_acc_11b12" type="imu">
      <always_on>1</always_on>
      <update_rate>100</update_rate>
      <pose>0.111543529757 -0.00081220000825 -0.0228480961814 -0.261799181028 7.34434721372e-08 -1.5707960527</pose>
      <plugin name="iCub_yarp_gazebo_plugin_ACC" filename="libgazebo_yarp_inertial.so"/>
    </sensor>
  </gazebo>
  <sensor name="r_foot_mtb_acc_11b12" type="accelerometer">
    <parent link="r_foot"/>
    <origin rpy="-0.261799181028 7.34434721372e-08 -1.5707960527" xyz="0.111543529757 -0.00081220000825 -0.0228480961814"/>
  </sensor>
  <gazebo reference="r_foot">
    <sensor name="r_foot_mtb_acc_11b13" type="imu">
      <always_on>1</always_on>
      <update_rate>100</update_rate>
      <pose>0.087395382748 -0.0118122000083 -0.0163776250973 -0.261799181028 1.55431223448e-15 -1.57079632679</pose>
      <plugin name="iCub_yarp_gazebo_plugin_ACC" filename="libgazebo_yarp_inertial.so"/>
    </sensor>
  </gazebo>
  <sensor name="r_foot_mtb_acc_11b13" type="accelerometer">
    <parent link="r_foot"/>
    <origin rpy="-0.261799181028 1.55431223448e-15 -1.57079632679" xyz="0.087395382748 -0.0118122000083 -0.0163776250973"/>
  </sensor>
  <gazebo reference="l_upper_leg">
    <sensor name="l_upper_leg_ems_acc_eb6" type="imu">
      <always_on>1</always_on>
      <update_rate>100</update_rate>
      <pose>-0.0125771 -0.0404072 -0.083407 1.57079632679 1.57079632679 0.0</pose>
      <plugin name="iCub_yarp_gazebo_plugin_ACC" filename="libgazebo_yarp_inertial.so"/>
    </sensor>
  </gazebo>
  <sensor name="l_upper_leg_ems_acc_eb6" type="accelerometer">
    <parent link="l_upper_leg"/>
    <origin rpy="1.57079632679 1.57079632679 0.0" xyz="-0.0125771 -0.0404072 -0.083407"/>
  </sensor>
  <gazebo reference="l_upper_leg">
    <sensor name="l_upper_leg_ems_acc_eb10" type="imu">
      <always_on>1</always_on>
      <update_rate>100</update_rate>
      <pose>-0.0125751 0.040407 -0.040227 -1.57079632679 -1.57079632679 0.0</pose>
      <plugin name="iCub_yarp_gazebo_plugin_ACC" filename="libgazebo_yarp_inertial.so"/>
    </sensor>
  </gazebo>
  <sensor name="l_upper_leg_ems_acc_eb10" type="accelerometer">
    <parent link="l_upper_leg"/>
    <origin rpy="-1.57079632679 -1.57079632679 0.0" xyz="-0.0125751 0.040407 -0.040227"/>
  </sensor>
  <gazebo reference="l_upper_leg">
    <sensor name="l_upper_leg_ems_gyro_eb6" type="imu">
      <always_on>1</always_on>
      <update_rate>100</update_rate>
      <pose>-0.013081 -0.0404072 -0.087979 1.57079632679 1.57079632679 0.0</pose>
    </sensor>
  </gazebo>
  <sensor name="l_upper_leg_ems_gyro_eb6" type="gyroscope">
    <parent link="l_upper_leg"/>
    <origin rpy="1.57079632679 1.57079632679 0.0" xyz="-0.013081 -0.0404072 -0.087979"/>
  </sensor>
  <gazebo reference="l_upper_leg">
    <sensor name="l_upper_leg_ems_gyro_eb10" type="imu">
      <always_on>1</always_on>
      <update_rate>100</update_rate>
      <pose>-0.013079 0.040407 -0.035655 -1.57079632679 -1.57079632679 0.0</pose>
    </sensor>
  </gazebo>
  <sensor name="l_upper_leg_ems_gyro_eb10" type="gyroscope">
    <parent link="l_upper_leg"/>
    <origin rpy="-1.57079632679 -1.57079632679 0.0" xyz="-0.013079 0.040407 -0.035655"/>
  </sensor>
  <gazebo reference="l_upper_leg">
    <sensor name="l_upper_leg_mtb_acc_10b1" type="imu">
      <always_on>1</always_on>
      <update_rate>100</update_rate>
      <pose>0.04200163 0.031565 0.049132 -1.57079551857 -1.57068021034 -0.733039094713</pose>
      <plugin name="iCub_yarp_gazebo_plugin_ACC" filename="libgazebo_yarp_inertial.so"/>
    </sensor>
  </gazebo>
  <sensor name="l_upper_leg_mtb_acc_10b1" type="accelerometer">
    <parent link="l_upper_leg"/>
    <origin rpy="-1.57079551857 -1.57068021034 -0.733039094713" xyz="0.04200163 0.031565 0.049132"/>
  </sensor>
  <gazebo reference="l_upper_leg">
    <sensor name="l_upper_leg_mtb_acc_10b2" type="imu">
      <always_on>1</always_on>
      <update_rate>100</update_rate>
      <pose>0.05352109 0.0077657 0.039252 -1.57079638638 -1.57068021039 -1.3089969474</pose>
      <plugin name="iCub_yarp_gazebo_plugin_ACC" filename="libgazebo_yarp_inertial.so"/>
    </sensor>
  </gazebo>
  <sensor name="l_upper_leg_mtb_acc_10b2" type="accelerometer">
    <parent link="l_upper_leg"/>
    <origin rpy="-1.57079638638 -1.57068021039 -1.3089969474" xyz="0.05352109 0.0077657 0.039252"/>
  </sensor>
  <gazebo reference="l_upper_leg">
    <sensor name="l_upper_leg_mtb_acc_10b3" type="imu">
      <always_on>1</always_on>
      <update_rate>100</update_rate>
      <pose>0.053785 0.0150706 0.004182 3.14159265359 -1.57079632679 0.0</pose>
      <plugin name="iCub_yarp_gazebo_plugin_ACC" filename="libgazebo_yarp_inertial.so"/>
    </sensor>
  </gazebo>
  <sensor name="l_upper_leg_mtb_acc_10b3" type="accelerometer">
    <parent link="l_upper_leg"/>
    <origin rpy="3.14159265359 -1.57079632679 0.0" xyz="0.053785 0.0150706 0.004182"/>
  </sensor>
  <gazebo reference="l_upper_leg">
    <sensor name="l_upper_leg_mtb_acc_10b4" type="imu">
      <always_on>1</always_on>
      <update_rate>100</update_rate>
      <pose>0.053785 -0.0144294 0.004182 3.14159265359 -1.57079632679 0.0</pose>
      <plugin name="iCub_yarp_gazebo_plugin_ACC" filename="libgazebo_yarp_inertial.so"/>
    </sensor>
  </gazebo>
  <sensor name="l_upper_leg_mtb_acc_10b4" type="accelerometer">
    <parent link="l_upper_leg"/>
    <origin rpy="3.14159265359 -1.57079632679 0.0" xyz="0.053785 -0.0144294 0.004182"/>
  </sensor>
  <gazebo reference="l_upper_leg">
    <sensor name="l_upper_leg_mtb_acc_10b5" type="imu">
      <always_on>1</always_on>
      <update_rate>100</update_rate>
      <pose>0.03412949 -0.0414999 -0.004858 1.95476889104 -1.57079632679 0.0</pose>
      <plugin name="iCub_yarp_gazebo_plugin_ACC" filename="libgazebo_yarp_inertial.so"/>
    </sensor>
  </gazebo>
  <sensor name="l_upper_leg_mtb_acc_10b5" type="accelerometer">
    <parent link="l_upper_leg"/>
    <origin rpy="1.95476889104 -1.57079632679 0.0" xyz="0.03412949 -0.0414999 -0.004858"/>
  </sensor>
  <gazebo reference="l_upper_leg">
    <sensor name="l_upper_leg_mtb_acc_10b6" type="imu">
      <always_on>1</always_on>
      <update_rate>100</update_rate>
      <pose>-0.043785 0.0178111 -0.026411 -1.57079632679 1.57077431394 1.57079632679</pose>
      <plugin name="iCub_yarp_gazebo_plugin_ACC" filename="libgazebo_yarp_inertial.so"/>
    </sensor>
  </gazebo>
  <sensor name="l_upper_leg_mtb_acc_10b6" type="accelerometer">
    <parent link="l_upper_leg"/>
    <origin rpy="-1.57079632679 1.57077431394 1.57079632679" xyz="-0.043785 0.0178111 -0.026411"/>
  </sensor>
  <gazebo reference="l_upper_leg">
    <sensor name="l_upper_leg_mtb_acc_10b7" type="imu">
      <always_on>1</always_on>
      <update_rate>100</update_rate>
      <pose>-0.043785 -0.0141918 -0.026411 1.5707963268 1.57064733889 -1.57079632679</pose>
      <plugin name="iCub_yarp_gazebo_plugin_ACC" filename="libgazebo_yarp_inertial.so"/>
    </sensor>
  </gazebo>
  <sensor name="l_upper_leg_mtb_acc_10b7" type="accelerometer">
    <parent link="l_upper_leg"/>
    <origin rpy="1.5707963268 1.57064733889 -1.57079632679" xyz="-0.043785 -0.0141918 -0.026411"/>
  </sensor>
  <gazebo reference="l_lower_leg">
    <sensor name="l_lower_leg_ems_acc_eb7" type="imu">
      <always_on>1</always_on>
      <update_rate>100</update_rate>
      <pose>0.04351373 0.0113146 -0.092765 -3.14159265359 -1.35262978345 -8.47684971046e-16</pose>
      <plugin name="iCub_yarp_gazebo_plugin_ACC" filename="libgazebo_yarp_inertial.so"/>
    </sensor>
  </gazebo>
  <sensor name="l_lower_leg_ems_acc_eb7" type="accelerometer">
    <parent link="l_lower_leg"/>
    <origin rpy="-3.14159265359 -1.35262978345 -8.47684971046e-16" xyz="0.04351373 0.0113146 -0.092765"/>
  </sensor>
  <gazebo reference="l_lower_leg">
    <sensor name="l_lower_leg_ems_gyro_eb7" type="imu">
      <always_on>1</always_on>
      <update_rate>100</update_rate>
      <pose>0.044503292 0.0118185 -0.088301 -3.14159265359 -1.35262978345 -8.47684971046e-16</pose>
    </sensor>
  </gazebo>
  <sensor name="l_lower_leg_ems_gyro_eb7" type="gyroscope">
    <parent link="l_lower_leg"/>
    <origin rpy="-3.14159265359 -1.35262978345 -8.47684971046e-16" xyz="0.044503292 0.0118185 -0.088301"/>
  </sensor>
  <gazebo reference="l_lower_leg">
    <sensor name="l_lower_leg_mtb_acc_10b8" type="imu">
      <always_on>1</always_on>
      <update_rate>100</update_rate>
      <pose>0.05313347 0.0171841 -0.004318 -2.89724648752 -1.57079632679 0.0</pose>
      <plugin name="iCub_yarp_gazebo_plugin_ACC" filename="libgazebo_yarp_inertial.so"/>
    </sensor>
  </gazebo>
  <sensor name="l_lower_leg_mtb_acc_10b8" type="accelerometer">
    <parent link="l_lower_leg"/>
    <origin rpy="-2.89724648752 -1.57079632679 0.0" xyz="0.05313347 0.0171841 -0.004318"/>
  </sensor>
  <gazebo reference="l_lower_leg">
    <sensor name="l_lower_leg_mtb_acc_10b9" type="imu">
      <always_on>1</always_on>
      <update_rate>100</update_rate>
      <pose>0.0544518 -0.0137991 -0.004318 -1.57079636645 -1.57068021044 -1.91986192735</pose>
      <plugin name="iCub_yarp_gazebo_plugin_ACC" filename="libgazebo_yarp_inertial.so"/>
    </sensor>
  </gazebo>
  <sensor name="l_lower_leg_mtb_acc_10b9" type="accelerometer">
    <parent link="l_lower_leg"/>
    <origin rpy="-1.57079636645 -1.57068021044 -1.91986192735" xyz="0.0544518 -0.0137991 -0.004318"/>
  </sensor>
  <gazebo reference="l_lower_leg">
    <sensor name="l_lower_leg_mtb_acc_10b10" type="imu">
      <always_on>1</always_on>
      <update_rate>100</update_rate>
      <pose>0.0259151 0.042744 -0.043468 -1.57079369547 -1.57068021035 -0.261801810497</pose>
      <plugin name="iCub_yarp_gazebo_plugin_ACC" filename="libgazebo_yarp_inertial.so"/>
    </sensor>
  </gazebo>
  <sensor name="l_lower_leg_mtb_acc_10b10" type="accelerometer">
    <parent link="l_lower_leg"/>
    <origin rpy="-1.57079369547 -1.57068021035 -0.261801810497" xyz="0.0259151 0.042744 -0.043468"/>
  </sensor>
  <gazebo reference="l_lower_leg">
    <sensor name="l_lower_leg_mtb_acc_10b11" type="imu">
      <always_on>1</always_on>
      <update_rate>100</update_rate>
      <pose>0.0184593 -0.0417187 -0.092958 1.57079531928 -1.57076999786 0.261800187025</pose>
      <plugin name="iCub_yarp_gazebo_plugin_ACC" filename="libgazebo_yarp_inertial.so"/>
    </sensor>
  </gazebo>
  <sensor name="l_lower_leg_mtb_acc_10b11" type="accelerometer">
    <parent link="l_lower_leg"/>
    <origin rpy="1.57079531928 -1.57076999786 0.261800187025" xyz="0.0184593 -0.0417187 -0.092958"/>
  </sensor>
  <gazebo reference="l_foot">
    <sensor name="l_foot_mtb_acc_10b12" type="imu">
      <always_on>1</always_on>
      <update_rate>100</update_rate>
      <pose>0.11352174596 0.000812199758047 -0.0233781571811 0.261799192098 -3.52495810318e-15 1.57079632679</pose>
      <plugin name="iCub_yarp_gazebo_plugin_ACC" filename="libgazebo_yarp_inertial.so"/>
    </sensor>
  </gazebo>
  <sensor name="l_foot_mtb_acc_10b12" type="accelerometer">
    <parent link="l_foot"/>
    <origin rpy="0.261799192098 -3.52495810318e-15 1.57079632679" xyz="0.11352174596 0.000812199758047 -0.0233781571811"/>
  </sensor>
  <gazebo reference="l_foot">
    <sensor name="l_foot_mtb_acc_10b13" type="imu">
      <always_on>1</always_on>
      <update_rate>100</update_rate>
      <pose>0.0893735989544 0.011812199825 -0.0169076861979 0.261799192098 -3.52495810318e-15 1.57079632679</pose>
      <plugin name="iCub_yarp_gazebo_plugin_ACC" filename="libgazebo_yarp_inertial.so"/>
    </sensor>
  </gazebo>
  <sensor name="l_foot_mtb_acc_10b13" type="accelerometer">
    <parent link="l_foot"/>
    <origin rpy="0.261799192098 -3.52495810318e-15 1.57079632679" xyz="0.0893735989544 0.011812199825 -0.0169076861979"/>
  </sensor>
  <gazebo reference="root_link">
    <sensor name="root_link_imu_acc" type="imu">
      <always_on>1</always_on>
      <update_rate>400</update_rate>
      <pose>0.085155 -0.011 -0.112309 -2.09439521059 -3.88578058619e-16 -1.57079632679</pose>
      <plugin name="root_link_xsens_imu_plugin" filename="libgazebo_yarp_imu.so">
    <yarpConfigurationFile>model://iCub/conf/gazebo_icub_xsens_inertial.ini</yarpConfigurationFile>
</plugin>
    </sensor>
  </gazebo>
  <sensor name="root_link_imu_acc" type="accelerometer">
    <parent link="root_link"/>
    <origin rpy="-2.09439521059 -3.88578058619e-16 -1.57079632679" xyz="0.085155 -0.011 -0.112309"/>
  </sensor>
  <gazebo>
    <pose>0.0 0.0 0.63 0.0 0.0 3.14</pose>
  </gazebo>
</robot>
